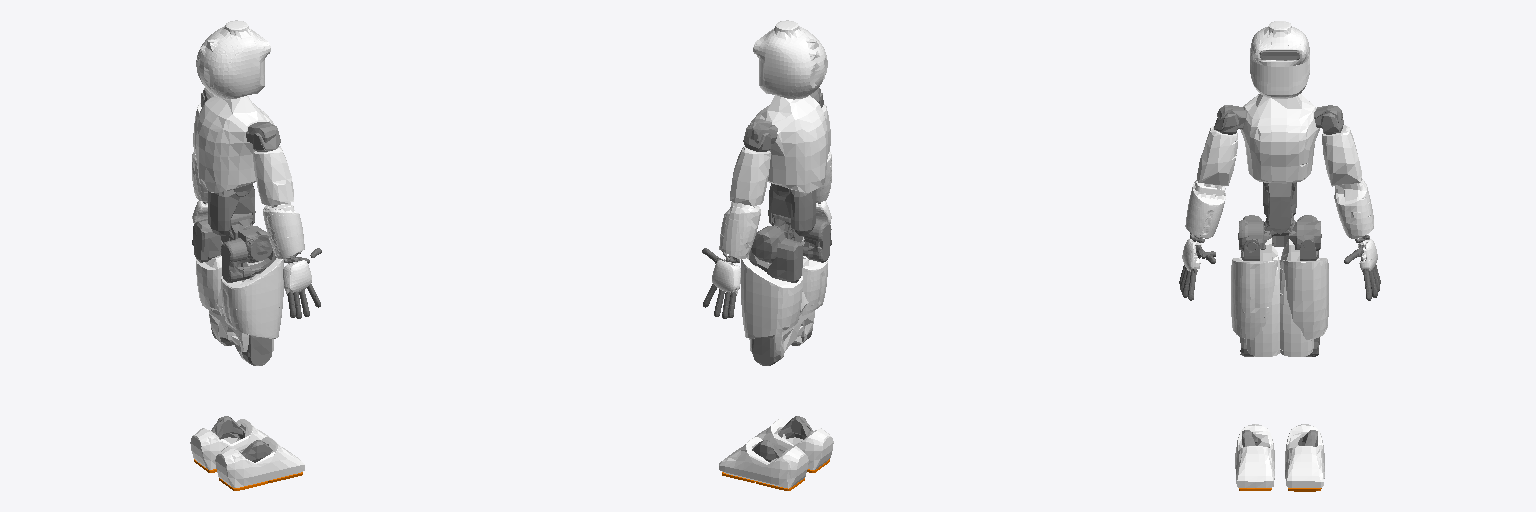
--- Facts derived from the render (not from the file) ---
3 views of the same robot in one strip: view 1: azimuth 30°, elevation 25°; view 2: azimuth 150°, elevation 25°; view 3: azimuth 270°, elevation 25° (orthographic).
Robot: ergoCub — 204 links, 203 joints (57 revolute, 146 fixed); root link root_link; default pose: every joint at zero.
Links seen in each view (by area): view 1: chest, head, r_hip_3, r_ankle_2, r_upper_arm, r_forearm, l_ankle_2, torso_1, r_hip_2, l_hip_3, l_hip_2, r_hip_1 (+3 smaller); view 2: chest, head, l_hip_3, l_ankle_2, l_upper_arm, l_forearm, r_ankle_2, torso_1, l_hip_2, r_hip_3, r_hip_2, l_hip_1 (+2 smaller); view 3: chest, head, r_hip_3, l_hip_3, l_ankle_2, r_ankle_2, r_upper_arm, l_upper_arm, l_forearm, r_forearm, l_lower_leg, r_lower_leg (+3 smaller).
Boxes of the visible links, <box> form: chest: <box>196,95,273,192</box>; head: <box>196,20,270,99</box>; r_hip_3: <box>221,256,283,338</box>; r_ankle_2: <box>215,437,304,487</box>; r_upper_arm: <box>253,146,293,205</box>; r_forearm: <box>263,203,304,258</box>; l_ankle_2: <box>190,419,268,469</box>; torso_1: <box>208,186,255,235</box>; r_hip_2: <box>221,238,274,282</box>; l_hip_3: <box>196,255,221,315</box>; l_hip_2: <box>193,219,221,262</box>; r_hip_1: <box>238,226,272,262</box>; chest: <box>750,95,827,192</box>; head: <box>753,20,827,99</box>; l_hip_3: <box>740,255,802,338</box>; l_ankle_2: <box>719,437,808,488</box>; l_upper_arm: <box>730,146,770,205</box>; l_forearm: <box>719,202,760,258</box>; r_ankle_2: <box>755,419,833,469</box>; torso_1: <box>768,186,815,235</box>; l_hip_2: <box>749,238,802,282</box>; r_hip_3: <box>802,256,827,315</box>; r_hip_2: <box>803,219,831,262</box>; l_hip_1: <box>751,226,786,262</box>; chest: <box>1240,94,1319,183</box>; head: <box>1250,21,1309,98</box>; r_hip_3: <box>1231,257,1277,339</box>; l_hip_3: <box>1282,258,1328,339</box>; l_ankle_2: <box>1285,424,1324,487</box>; r_ankle_2: <box>1235,424,1274,487</box>; r_upper_arm: <box>1197,125,1237,185</box>; l_upper_arm: <box>1322,125,1361,186</box>; l_forearm: <box>1334,179,1373,238</box>; r_forearm: <box>1185,180,1225,238</box>; l_lower_leg: <box>1280,239,1313,356</box>; r_lower_leg: <box>1246,238,1279,356</box>.
Bounding box of the posed robot: 0.2996 × 0.6038 × 1.47 m (x, y, z).
66 mesh visuals loaded from 66 distinct referenced files (66 binary STL).

URDF robot description (ergoCub):
<?xml version="1.0"?>
<robot name="ergoCub">
  <link name="root_link">
    <inertial>
      <mass value="2.823751482824641"/>
      <origin xyz="0.0024748962432214403 -1.050794470993344e-4 0.023450368787955644" rpy="0 -0 0"/>
      <inertia ixx="0.005630606285299466" ixy="1.4369039688385168e-6" ixz="2.329934099458601e-5" iyy="0.004380033669258687" iyz="1.4098441290533537e-5" izz="0.003616681010808376"/>
    </inertial>
    <visual>
      <origin xyz="0 0 0" rpy="0 -0 0"/>
      <geometry>
        <mesh filename="package://ergoCub/meshes/simmechanics/sim_ecub_1-1_root_link.stl" scale="0.001 0.001 0.001"/>
      </geometry>
      <material name="">
        <color rgba="0.6 0.6 0.6 1"/>
      </material>
    </visual>
    <collision>
      <origin xyz="0 0 0" rpy="0 -0 0"/>
      <geometry>
        <mesh filename="package://ergoCub/meshes/simmechanics/sim_ecub_1-1_root_link.stl" scale="0.001 0.001 0.001"/>
      </geometry>
      <material name="">
        <color rgba="0.6 0.6 0.6 1"/>
      </material>
    </collision>
  </link>
  <joint name="l_hip_pitch" type="revolute">
    <origin xyz="0.02109999999999964 0.050500000000000836 1.942890293094024e-16" rpy="3.958535957527503e-15 3.810968172190701e-15 1.167434911886406e-16"/>
    <axis xyz="-5.772831379991284e-17 -1 -1.3843833381666392e-17"/>
    <parent link="root_link"/>
    <child link="l_hip_1"/>
    <limit lower="-0.7504915783575618" upper="1.7976891295541595" effort="1e+9" velocity="1e+9"/>
    <dynamics damping="2" friction="0"/>
  </joint>
  <link name="l_hip_1">
    <inertial>
      <mass value="2.231768868859629"/>
      <origin xyz="-0.0040154224851623455 0.028247280560774652 -6.811143992383195e-4" rpy="0 -0 0"/>
      <inertia ixx="0.002210921814931002" ixy="5.971255499379551e-5" ixz="-1.5432160879022988e-5" iyy="0.002695326128467937" iyz="-5.838535051658118e-6" izz="0.0024610381641843883"/>
    </inertial>
    <visual>
      <origin xyz="0 0 0" rpy="0 -0 0"/>
      <geometry>
        <mesh filename="package://ergoCub/meshes/simmechanics/sim_ecub_1-1_l_hip_1.stl" scale="0.001 0.001 0.001"/>
      </geometry>
      <material name="">
        <color rgba="0.6 0.6 0.6 1"/>
      </material>
    </visual>
    <collision>
      <origin xyz="0 0 0" rpy="0 -0 0"/>
      <geometry>
        <mesh filename="package://ergoCub/meshes/simmechanics/sim_ecub_1-1_l_hip_1.stl" scale="0.001 0.001 0.001"/>
      </geometry>
      <material name="">
        <color rgba="0.6 0.6 0.6 1"/>
      </material>
    </collision>
  </link>
  <joint name="r_hip_pitch" type="revolute">
    <origin xyz="0.021099999999999643 -0.05049999999999917 -2.220446049250313e-16" rpy="3.986223624290839e-15 9.012328668422501e-14 4.978996250550603e-17"/>
    <axis xyz="-1.0880513989386065e-16 -1 1.384383338166008e-17"/>
    <parent link="root_link"/>
    <child link="r_hip_1"/>
    <limit lower="-0.7504915783575618" upper="1.7976891295541595" effort="1e+9" velocity="1e+9"/>
    <dynamics damping="2" friction="0"/>
  </joint>
  <link name="r_hip_1">
    <inertial>
      <mass value="2.2320852637398954"/>
      <origin xyz="-0.004032117730258793 -0.028249385885545365 -6.739019720393702e-4" rpy="0 -0 0"/>
      <inertia ixx="0.00221225947743564" ixy="-6.126720536020865e-5" ixz="-1.5035655169601288e-5" iyy="0.002695545891317729" iyz="6.443355522460266e-6" izz="0.0024608876750051726"/>
    </inertial>
    <visual>
      <origin xyz="0 0 0" rpy="0 -0 0"/>
      <geometry>
        <mesh filename="package://ergoCub/meshes/simmechanics/sim_ecub_1-1_r_hip_1.stl" scale="0.001 0.001 0.001"/>
      </geometry>
      <material name="">
        <color rgba="0.6 0.6 0.6 1"/>
      </material>
    </visual>
    <collision>
      <origin xyz="0 0 0" rpy="0 -0 0"/>
      <geometry>
        <mesh filename="package://ergoCub/meshes/simmechanics/sim_ecub_1-1_r_hip_1.stl" scale="0.001 0.001 0.001"/>
      </geometry>
      <material name="">
        <color rgba="0.6 0.6 0.6 1"/>
      </material>
    </collision>
  </link>
  <joint name="torso_roll" type="revolute">
    <origin xyz="-2.23890229767886e-18 -5.551115123142428e-20 0.060500000000000095" rpy="0 -2.2470258116354473e-44 5.656623812198896e-30"/>
    <axis xyz="-1 0 1.4239886692466155e-15"/>
    <parent link="root_link"/>
    <child link="torso_1"/>
    <limit lower="-0.4014257279586958" upper="0.4014257279586958" effort="1e+9" velocity="1e+9"/>
    <dynamics damping="2" friction="0"/>
  </joint>
  <link name="torso_1">
    <inertial>
      <mass value="2.0645667"/>
      <origin xyz="-0.00963997362197503 6.168494736287859e-4 0.08244231288506354" rpy="0 -0 0"/>
      <inertia ixx="0.007406085999999999" ixy="0" ixz="0" iyy="0.0059470732999999994" iyz="0" izz="0.0031780111"/>
    </inertial>
    <visual>
      <origin xyz="0 0 0" rpy="0 -0 0"/>
      <geometry>
        <mesh filename="package://ergoCub/meshes/simmechanics/sim_ecub_1-1_torso_1.stl" scale="0.001 0.001 0.001"/>
      </geometry>
      <material name="">
        <color rgba="0.6 0.6 0.6 1"/>
      </material>
    </visual>
    <collision>
      <origin xyz="0 0 0" rpy="0 -0 0"/>
      <geometry>
        <mesh filename="package://ergoCub/meshes/simmechanics/sim_ecub_1-1_torso_1.stl" scale="0.001 0.001 0.001"/>
      </geometry>
      <material name="">
        <color rgba="0.6 0.6 0.6 1"/>
      </material>
    </collision>
  </link>
  <joint name="torso_pitch" type="revolute">
    <origin xyz="-7.30886630439206e-17 -4.930380657631324e-32 0.11800000000000001" rpy="3.9719461100401744e-15 2.710505431213761e-20 1.0587911275090697e-22"/>
    <axis xyz="1.058791184074231e-22 1 4.336808689942018e-19"/>
    <parent link="torso_1"/>
    <child link="torso_2"/>
    <limit lower="-0.3141592653589793" upper="0.7853981633974483" effort="1e+9" velocity="1e+9"/>
    <dynamics damping="2" friction="0"/>
  </joint>
  <link name="torso_2">
    <inertial>
      <mass value="0.7051627057068411"/>
      <origin xyz="0.0015724674776760373 0.0036223466761378907 0.026019504666210766" rpy="0 -0 0"/>
      <inertia ixx="0.0012590296877101025" ixy="4.1986239270733835e-6" ixz="-5.398163583772818e-6" iyy="6.675525890436374e-4" iyz="7.014302140884287e-5" izz="0.001145822810927014"/>
    </inertial>
    <visual>
      <origin xyz="0 0 0" rpy="0 -0 0"/>
      <geometry>
        <mesh filename="package://ergoCub/meshes/simmechanics/sim_ecub_1-1_torso_2.stl" scale="0.001 0.001 0.001"/>
      </geometry>
      <material name="">
        <color rgba="0.6 0.6 0.6 1"/>
      </material>
    </visual>
    <collision>
      <origin xyz="0 0 0" rpy="0 -0 0"/>
      <geometry>
        <mesh filename="package://ergoCub/meshes/simmechanics/sim_ecub_1-1_torso_2.stl" scale="0.001 0.001 0.001"/>
      </geometry>
      <material name="">
        <color rgba="0.6 0.6 0.6 1"/>
      </material>
    </collision>
  </link>
  <joint name="torso_yaw" type="revolute">
    <origin xyz="7.32502235717738e-17 2.561326957877574e-16 0.0644699999999999" rpy="-3.971868545919581e-15 -4.385099568445115e-23 -3.1763738272196853e-22"/>
    <axis xyz="2.084864385226231e-15 -2.114127025714114e-15 -1"/>
    <parent link="torso_2"/>
    <child link="chest"/>
    <limit lower="-0.7504915783575618" upper="0.7504915783575618" effort="1e+9" velocity="1e+9"/>
    <dynamics damping="2" friction="0"/>
  </joint>
  <link name="chest">
    <inertial>
      <mass value="8.065471632648594"/>
      <origin xyz="-0.010721051678060345 -3.482064053382885e-4 0.07611063517438793" rpy="0 -0 0"/>
      <inertia ixx="0.048454754024617776" ixy="1.7611941682820642e-4" ixz="-3.124089280569708e-4" iyy="0.044938830524554475" iyz="-1.2962048932614557e-4" izz="0.030687687298016447"/>
    </inertial>
    <visual>
      <origin xyz="0 0 0" rpy="0 -0 0"/>
      <geometry>
        <mesh filename="package://ergoCub/meshes/simmechanics/sim_ecub_1-1_chest.stl" scale="0.001 0.001 0.001"/>
      </geometry>
      <material name="">
        <color rgba="1 1 1 1"/>
      </material>
    </visual>
    <collision>
      <origin xyz="0 0 0" rpy="0 -0 0"/>
      <geometry>
        <mesh filename="package://ergoCub/meshes/simmechanics/sim_ecub_1-1_chest.stl" scale="0.001 0.001 0.001"/>
      </geometry>
      <material name="">
        <color rgba="1 1 1 1"/>
      </material>
    </collision>
  </link>
  <joint name="l_shoulder_pitch" type="revolute">
    <origin xyz="-0.013518676842610159 0.06704761117227499 0.12351981080941767" rpy="0.2536123238732541 -0.05203160550449479 -0.27527873241387235"/>
    <axis xyz="-3.452099717193846e-16 1.0000000000000002 3.0531133177191805e-16"/>
    <parent link="chest"/>
    <child link="l_shoulder_1"/>
    <limit lower="-2.9670597283903604" upper="0.6108652381980153" effort="1e+9" velocity="1e+9"/>
    <dynamics damping="2" friction="0"/>
  </joint>
  <link name="l_shoulder_1">
    <inertial>
      <mass value="0.7913756606310043"/>
      <origin xyz="1.4824275422014796e-4 0.06782971819041986 5.036196460999898e-4" rpy="0 -0 0"/>
      <inertia ixx="0.0012090260632276477" ixy="3.837452877706498e-6" ixz="3.4979966648173376e-7" iyy="3.2970130687487713e-4" iyz="1.0257960656819495e-5" izz="0.0011953232413247816"/>
    </inertial>
    <visual>
      <origin xyz="0 0 0" rpy="0 -0 0"/>
      <geometry>
        <mesh filename="package://ergoCub/meshes/simmechanics/sim_ecub_1-1_l_shoulder_1.stl" scale="0.001 0.001 0.001"/>
      </geometry>
      <material name="">
        <color rgba="0.6 0.6 0.6 1"/>
      </material>
    </visual>
    <collision>
      <origin xyz="0 0 0" rpy="0 -0 0"/>
      <geometry>
        <mesh filename="package://ergoCub/meshes/simmechanics/sim_ecub_1-1_l_shoulder_1.stl" scale="0.001 0.001 0.001"/>
      </geometry>
      <material name="">
        <color rgba="0.6 0.6 0.6 1"/>
      </material>
    </collision>
  </link>
  <joint name="neck_pitch" type="revolute">
    <origin xyz="0.004861512347971912 4.1253975310307907e-16 0.22529999999999994" rpy="-1.541978321110266e-15 -2.0480667158215426e-15 -1.389802281096855e-15"/>
    <axis xyz="2.6472211157644926e-18 -1 -7.807858529815144e-16"/>
    <parent link="chest"/>
    <child link="neck_2"/>
    <limit lower="-0.5235987755982988" upper="0.3839724354387525" effort="1e+9" velocity="1e+9"/>
    <dynamics damping="2" friction="0"/>
  </joint>
  <link name="neck_2">
    <inertial>
      <mass value="0.12100314943032965"/>
      <origin xyz="-0.006305773955890982 3.0141314376407138e-5 0.006373188453183354" rpy="0 -0 0"/>
      <inertia ixx="4.5383766592166864e-5" ixy="-9.375752008423039e-8" ixz="8.622664755132213e-6" iyy="3.848306673536227e-5" iyz="4.870043501244136e-8" izz="3.7535538604448367e-5"/>
    </inertial>
    <visual>
      <origin xyz="0 0 0" rpy="0 -0 0"/>
      <geometry>
        <mesh filename="package://ergoCub/meshes/simmechanics/sim_ecub_1-1_head_neck_2.stl" scale="0.001 0.001 0.001"/>
      </geometry>
      <material name="">
        <color rgba="0.6 0.6 0.6 1"/>
      </material>
    </visual>
    <collision>
      <origin xyz="0 0 0" rpy="0 -0 0"/>
      <geometry>
        <mesh filename="package://ergoCub/meshes/simmechanics/sim_ecub_1-1_head_neck_2.stl" scale="0.001 0.001 0.001"/>
      </geometry>
      <material name="">
        <color rgba="0.6 0.6 0.6 1"/>
      </material>
    </collision>
  </link>
  <joint name="r_shoulder_pitch" type="revolute">
    <origin xyz="-0.013518676842610352 -0.06704761117227452 0.12351981080941783" rpy="-0.25361232387326116 -0.05203160550449495 0.2752787324138702"/>
    <axis xyz="-2.445960101127298e-16 1 3.552713678800501e-15"/>
    <parent link="chest"/>
    <child link="r_shoulder_1"/>
    <limit lower="-2.9670597283903604" upper="0.6108652381980153" effort="1e+9" velocity="1e+9"/>
    <dynamics damping="2" friction="0"/>
  </joint>
  <link name="r_shoulder_1">
    <inertial>
      <mass value="0.7922822880502421"/>
      <origin xyz="1.7243569867328445e-4 -0.06784040318161474 4.7600094527533443e-4" rpy="0 -0 0"/>
      <inertia ixx="0.0012096539626434014" ixy="-3.680808987116546e-6" ixz="8.229428308001538e-7" iyy="3.3067105254799123e-4" iyz="-1.0172274013350282e-5" izz="0.0011958286331174221"/>
    </inertial>
    <visual>
      <origin xyz="0 0 0" rpy="0 -0 0"/>
      <geometry>
        <mesh filename="package://ergoCub/meshes/simmechanics/sim_ecub_1-1_r_shoulder_1.stl" scale="0.001 0.001 0.001"/>
      </geometry>
      <material name="">
        <color rgba="0.6 0.6 0.6 1"/>
      </material>
    </visual>
    <collision>
      <origin xyz="0 0 0" rpy="0 -0 0"/>
      <geometry>
        <mesh filename="package://ergoCub/meshes/simmechanics/sim_ecub_1-1_r_shoulder_1.stl" scale="0.001 0.001 0.001"/>
      </geometry>
      <material name="">
        <color rgba="0.6 0.6 0.6 1"/>
      </material>
    </collision>
  </link>
  <joint name="r_shoulder_roll" type="revolute">
    <origin xyz="0.007499999999999977 -0.09330000000000004 -3.885780586188048e-16" rpy="-9.325873406851307e-15 9.520162436160717e-15 -4.718447854656912e-15"/>
    <axis xyz="-1.0000000000000007 8.760353553682006e-16 -4.510281037539194e-16"/>
    <parent link="r_shoulder_1"/>
    <child link="r_shoulder_2"/>
    <limit lower="-0.2617993877991494" upper="2.6179938779914944" effort="1e+9" velocity="1e+9"/>
    <dynamics damping="2" friction="0"/>
  </joint>
  <link name="r_shoulder_2">
    <inertial>
      <mass value="0.4392272062642899"/>
      <origin xyz="0.005113618901434032 -2.13348557806331e-4 -0.020425805469504787" rpy="0 -0 0"/>
      <inertia ixx="2.9042245268154257e-4" ixy="-9.557527654531481e-7" ixz="-9.749291990105912e-5" iyy="4.271705089556584e-4" iyz="-1.2227717602335833e-6" izz="2.6647274612786855e-4"/>
    </inertial>
    <visual>
      <origin xyz="0 0 0" rpy="0 -0 0"/>
      <geometry>
        <mesh filename="package://ergoCub/meshes/simmechanics/sim_ecub_1-1_r_shoulder_2.stl" scale="0.001 0.001 0.001"/>
      </geometry>
      <material name="">
        <color rgba="0.6 0.6 0.6 1"/>
      </material>
    </visual>
    <collision>
      <origin xyz="0 0 0" rpy="0 -0 0"/>
      <geometry>
        <mesh filename="package://ergoCub/meshes/simmechanics/sim_ecub_1-1_r_shoulder_2.stl" scale="0.001 0.001 0.001"/>
      </geometry>
      <material name="">
        <color rgba="0.6 0.6 0.6 1"/>
      </material>
    </collision>
  </link>
  <joint name="r_arm_ft_sensor" type="fixed">
    <origin xyz="-0.006850000000000004 -5.551115123125783e-17 -0.054300000000000015" rpy="-2.220446049250312e-16 -2.3592239273284576e-16 1.6098233857064762e-15"/>
    <parent link="r_shoulder_2"/>
    <child link="r_shoulder_3"/>
  </joint>
  <link name="r_shoulder_3">
    <inertial>
      <mass value="0.271466272759966"/>
      <origin xyz="-8.31167799586717e-5 -3.0654831449927755e-5 -0.007966545320293866" rpy="0 -0 0"/>
      <inertia ixx="7.620284216410257e-5" ixy="-3.654997747197785e-7" ixz="-3.6240077897294374e-8" iyy="7.648716704064904e-5" iyz="-6.051355657868799e-8" izz="1.2740184766279634e-4"/>
    </inertial>
    <visual>
      <origin xyz="0 0 0" rpy="0 -0 0"/>
      <geometry>
        <mesh filename="package://ergoCub/meshes/simmechanics/sim_ecub_1-1_r_shoulder_3.stl" scale="0.001 0.001 0.001"/>
      </geometry>
      <material name="">
        <color rgba="0.6 0.6 0.6 1"/>
      </material>
    </visual>
    <collision>
      <origin xyz="0 0 0" rpy="0 -0 0"/>
      <geometry>
        <mesh filename="package://ergoCub/meshes/simmechanics/sim_ecub_1-1_r_shoulder_3.stl" scale="0.001 0.001 0.001"/>
      </geometry>
      <material name="">
        <color rgba="0.6 0.6 0.6 1"/>
      </material>
    </collision>
  </link>
  <joint name="r_shoulder_yaw" type="revolute">
    <origin xyz="-7.979727989493313e-17 5.551115123125783e-17 -0.02249999999999998" rpy="-5.55111512312578e-17 -3.0531133177191805e-16 7.660538869913577e-15"/>
    <axis xyz="2.567390744445681e-16 2.775557561562927e-17 1.0000000000000004"/>
    <parent link="r_shoulder_3"/>
    <child link="r_upper_arm"/>
    <limit lower="-0.8726646259971648" upper="1.3962634015954636" effort="1e+9" velocity="1e+9"/>
    <dynamics damping="2" friction="0"/>
  </joint>
  <link name="r_upper_arm">
    <inertial>
      <mass value="1.7722348545631907"/>
      <origin xyz="1.4699786491786937e-4 -0.0023354938418406186 -0.05011711267210951" rpy="0 -0 0"/>
      <inertia ixx="0.0034219198528275844" ixy="3.081029189714289e-5" ixz="2.5743017599563002e-5" iyy="0.003510878854314856" iyz="-1.0938393403810045e-4" izz="0.0015765483711818404"/>
    </inertial>
    <visual>
      <origin xyz="0 0 0" rpy="0 -0 0"/>
      <geometry>
        <mesh filename="package://ergoCub/meshes/simmechanics/sim_ecub_1-1_r_upperarm.stl" scale="0.001 0.001 0.001"/>
      </geometry>
      <material name="">
        <color rgba="1 1 1 1"/>
      </material>
    </visual>
    <collision>
      <origin xyz="0 0 0" rpy="0 -0 0"/>
      <geometry>
        <mesh filename="package://ergoCub/meshes/simmechanics/sim_ecub_1-1_r_upperarm.stl" scale="0.001 0.001 0.001"/>
      </geometry>
      <material name="">
        <color rgba="1 1 1 1"/>
      </material>
    </collision>
  </link>
  <joint name="r_elbow" type="revolute">
    <origin xyz="0.01000000000000002 0.0015000000000005287 -0.12369999999999992" rpy="-4.1633363423443286e-16 -5.842548667089886e-15 -8.326672684688652e-15"/>
    <axis xyz="3.001071613439684e-16 -1.0000000000000027 1.2712053631958044e-14"/>
    <parent link="r_upper_arm"/>
    <child link="r_forearm"/>
    <limit lower="-0.05235987755982989" upper="1.3089969389957472" effort="1e+9" velocity="1e+9"/>
    <dynamics damping="2" friction="0"/>
  </joint>
  <link name="r_forearm">
    <inertial>
      <mass value="1.4760712424977045"/>
      <origin xyz="-0.01830687629472739 -0.002214887320910963 -0.08814943647449926" rpy="0 -0 0"/>
      <inertia ixx="0.004018141035792247" ixy="-1.0169837170335636e-6" ixz="-6.092751707960711e-5" iyy="0.004094401103638503" iyz="2.3622606931134418e-5" izz="0.00151761593950533"/>
    </inertial>
    <visual>
      <origin xyz="0 0 0" rpy="0 -0 0"/>
      <geometry>
        <mesh filename="package://ergoCub/meshes/simmechanics/sim_ecub_1-1_r_forearm.stl" scale="0.001 0.001 0.001"/>
      </geometry>
      <material name="">
        <color rgba="1 1 1 1"/>
      </material>
    </visual>
    <collision>
      <origin xyz="0 0 0" rpy="0 -0 0"/>
      <geometry>
        <mesh filename="package://ergoCub/meshes/simmechanics/sim_ecub_1-1_r_forearm.stl" scale="0.001 0.001 0.001"/>
      </geometry>
      <material name="">
        <color rgba="1 1 1 1"/>
      </material>
    </collision>
  </link>
  <joint name="r_wrist_yaw" type="revolute">
    <origin xyz="-0.014999999999999767 -0.0019999999999965323 -0.1943500000000011" rpy="-2.081668171172164e-15 -1.1587952819525071e-14 -2.997602166487915e-15"/>
    <axis xyz="5.5788706987414416e-15 -1.2628786905111175e-14 1.000000000000002"/>
    <parent link="r_forearm"/>
    <child link="r_wrist_1"/>
    <limit lower="-1.6057029118347832" upper="1.6057029118347832" effort="1e+9" velocity="1e+9"/>
    <dynamics damping="2" friction="0"/>
  </joint>
  <link name="r_wrist_1">
    <inertial>
      <mass value="0.12269276206782376"/>
      <origin xyz="-1.4544607175177166e-4 1.559247070407055e-4 0.022377800821402394" rpy="0 -0 0"/>
      <inertia ixx="4.9948289621641885e-5" ixy="-2.784766720355678e-7" ixz="6.019515820494411e-7" iyy="4.9363344899850536e-5" iyz="-7.101822163237812e-7" izz="5.04085543186966e-5"/>
    </inertial>
    <visual>
      <origin xyz="0 0 0" rpy="0 -0 0"/>
      <geometry>
        <mesh filename="package://ergoCub/meshes/simmechanics/sim_ecub_1-1_r_wrist_1.stl" scale="0.001 0.001 0.001"/>
      </geometry>
      <material name="">
        <color rgba="0.6 0.6 0.6 1"/>
      </material>
    </visual>
    <collision>
      <origin xyz="0 0 0" rpy="0 -0 0"/>
      <geometry>
        <mesh filename="package://ergoCub/meshes/simmechanics/sim_ecub_1-1_r_wrist_1.stl" scale="0.001 0.001 0.001"/>
      </geometry>
      <material name="">
        <color rgba="0.6 0.6 0.6 1"/>
      </material>
    </collision>
  </link>
  <joint name="r_wrist_roll" type="revolute">
    <origin xyz="1.4224732503009818e-16 2.498001805406602e-16 1.3877787807814457e-16" rpy="3.8857805861880484e-16 5.551115123125783e-17 -1.6653345369377353e-16"/>
    <axis xyz="0.9999999999999997 -2.480654570646835e-16 -1.873501354054953e-16"/>
    <parent link="r_wrist_1"/>
    <child link="r_wrist_2"/>
    <limit lower="-1.0821041362364843" upper="0.9075712110370514" effort="1e+9" velocity="1e+9"/>
    <dynamics damping="2" friction="0"/>
  </joint>
  <link name="r_wrist_2">
    <inertial>
      <mass value="0.021188357245777188"/>
      <origin xyz="5.05499045400093e-11 7.897372606293362e-4 -0.004696960055006527" rpy="0 -0 0"/>
      <inertia ixx="1.5886797233767314e-6" ixy="3.7411538116720276e-13" ixz="-1.6476959268145782e-14" iyy="1.6075566141746972e-6" iyz="7.534291394795915e-8" izz="2.5064167139343093e-6"/>
    </inertial>
    <visual>
      <origin xyz="0 0 0" rpy="0 -0 0"/>
      <geometry>
        <mesh filename="package://ergoCub/meshes/simmechanics/sim_ecub_1-1_r_wrist_2.stl" scale="0.001 0.001 0.001"/>
      </geometry>
      <material name="">
        <color rgba="0.5 0.5 0.5 1"/>
      </material>
    </visual>
    <collision>
      <origin xyz="0 0 0" rpy="0 -0 0"/>
      <geometry>
        <mesh filename="package://ergoCub/meshes/simmechanics/sim_ecub_1-1_r_wrist_2.stl" scale="0.001 0.001 0.001"/>
      </geometry>
      <material name="">
        <color rgba="0.5 0.5 0.5 1"/>
      </material>
    </collision>
  </link>
  <joint name="r_wrist_pitch" type="revolute">
    <origin xyz="-4.85722573273506e-17 0 2.7755575615628914e-17" rpy="2.2204460492503136e-16 -5.551115123125783e-17 -3.88578058618805e-16"/>
    <axis xyz="4.128641872824801e-16 -0.9999999999999998 -8.049116928532385e-16"/>
    <parent link="r_wrist_2"/>
    <child link="r_hand_palm"/>
    <limit lower="-0.5585053606381855" upper="0.5585053606381855" effort="1e+9" velocity="1e+9"/>
    <dynamics damping="2" friction="0"/>
  </joint>
  <link name="r_hand_palm">
    <inertial>
      <mass value="0.2020068404688116"/>
      <origin xyz="-0.003982157972782507 -0.0021135289059891482 -0.05842371394186491" rpy="0 -0 0"/>
      <inertia ixx="1.4279727238409082e-4" ixy="4.3471459905317745e-6" ixz="-1.2099467097336674e-5" iyy="2.1040345151106222e-4" iyz="4.7767131643957866e-6" izz="1.0688011837800253e-4"/>
    </inertial>
    <visual>
      <origin xyz="0 0 0" rpy="0 -0 0"/>
      <geometry>
        <mesh filename="package://ergoCub/meshes/simmechanics/sim_ecub_1-1_r_hand_palm.stl" scale="0.001 0.001 0.001"/>
      </geometry>
      <material name="">
        <color rgba="1 1 1 1"/>
      </material>
    </visual>
    <collision>
      <origin xyz="0 0 0" rpy="0 -0 0"/>
      <geometry>
        <mesh filename="package://ergoCub/meshes/simmechanics/sim_ecub_1-1_r_hand_palm.stl" scale="0.001 0.001 0.001"/>
      </geometry>
      <material name="">
        <color rgba="1 1 1 1"/>
      </material>
    </collision>
  </link>
  <joint name="r_index_add" type="revolute">
    <origin xyz="0.022499999999999992 0.0015000000000002234 -0.06859999999999983" rpy="-1.6833790438334957e-15 0.29670597283904 3.141592653589792"/>
    <axis xyz="-5.389323627044831e-16 -0.9999999999999999 1.6046911875538946e-15"/>
    <parent link="r_hand_palm"/>
    <child link="r_hand_index_1"/>
    <limit lower="0" upper="0.2617993877991494" effort="1e+9" velocity="1e+9"/>
    <dynamics damping="2" friction="0"/>
  </joint>
  <link name="r_hand_index_1">
    <inertial>
      <mass value="0.019232477290189804"/>
      <origin xyz="-0.008420124408709713 0.003850331678233287 -0.01714942611279774" rpy="0 -0 0"/>
      <inertia ixx="2.6266478205033898e-6" ixy="1.0045828131985182e-7" ixz="-4.4428748588513116e-7" iyy="2.811973348231671e-6" iyz="-3.9646985411500977e-8" izz="1.21028376665746e-6"/>
    </inertial>
    <visual>
      <origin xyz="0 0 0" rpy="0 -0 0"/>
      <geometry>
        <mesh filename="package://ergoCub/meshes/simmechanics/sim_ecub_1-1_r_hand_index_1.stl" scale="0.001 0.001 0.001"/>
      </geometry>
      <material name="">
        <color rgba="0.5 0.5 0.5 1"/>
      </material>
    </visual>
    <collision>
      <origin xyz="0 0 0" rpy="0 -0 0"/>
      <geometry>
        <mesh filename="package://ergoCub/meshes/simmechanics/sim_ecub_1-1_r_hand_index_1.stl" scale="0.001 0.001 0.001"/>
      </geometry>
      <material name="">
        <color rgba="0.5 0.5 0.5 1"/>
      </material>
    </collision>
  </link>
  <joint name="r_middle_prox" type="revolute">
    <origin xyz="0.009599999988882939 0.00150000000000039 -0.1030000000010361" rpy="-1.8596235662471376e-15 -1.0793124727292991e-10 3.1415926535897927"/>
    <axis xyz="-0.9999999999999996 -4.562322741819007e-15 1.079337105802658e-10"/>
    <parent link="r_hand_palm"/>
    <child link="r_hand_middle_1"/>
    <limit lower="0" upper="1.5707963267948966" effort="1e+9" velocity="1e+9"/>
    <dynamics damping="2" friction="0"/>
  </joint>
  <link name="r_hand_middle_1">
    <inertial>
      <mass value="0.007486365997467528"/>
      <origin xyz="5.610258533731913e-5 0.0011131046827904112 -0.01742880983276912" rpy="0 -0 0"/>
      <inertia ixx="1.5923690026243956e-6" ixy="-7.6859949856616e-10" ixz="-9.576514629966624e-9" iyy="1.5225016121802755e-6" iyz="1.1152097367596593e-7" izz="3.177134212214704e-7"/>
    </inertial>
    <visual>
      <origin xyz="0 0 0" rpy="0 -0 0"/>
      <geometry>
        <mesh filename="package://ergoCub/meshes/simmechanics/sim_ecub_1-1_r_hand_middle_1.stl" scale="0.001 0.001 0.001"/>
      </geometry>
      <material name="">
        <color rgba="0.5 0.5 0.5 1"/>
      </material>
    </visual>
    <collision>
      <origin xyz="0 0 0" rpy="0 -0 0"/>
      <geometry>
        <mesh filename="package://ergoCub/meshes/simmechanics/sim_ecub_1-1_r_hand_middle_1.stl" scale="0.001 0.001 0.001"/>
      </geometry>
      <material name="">
        <color rgba="0.5 0.5 0.5 1"/>
      </material>
    </collision>
  </link>
  <joint name="r_pinkie_prox" type="revolute">
    <origin xyz="-0.035982680943166166 0.002377759579109573 -0.09206828131946371" rpy="4.1095343980510334e-4 -0.08726646259972864 3.1154127148098776"/>
    <axis xyz="-0.9999999999999998 4.364801434782878e-15 0"/>
    <parent link="r_hand_palm"/>
    <child link="r_hand_pinkie_1"/>
    <limit lower="0" upper="1.5707963267948966" effort="1e+9" velocity="1e+9"/>
    <dynamics damping="2" friction="0"/>
  </joint>
  <link name="r_hand_pinkie_1">
    <inertial>
      <mass value="0.006357585733638135"/>
      <origin xyz="3.616260147435227e-5 0.0012147050941129778 -0.015053109692718447" rpy="0 -0 0"/>
      <inertia ixx="1.1594224636752146e-6" ixy="1.9700677724003336e-10" ixz="-5.145341462812334e-9" iyy="1.1056270005627898e-6" iyz="9.04498861481507e-8" izz="2.7294425194037764e-7"/>
    </inertial>
    <visual>
      <origin xyz="0 0 0" rpy="0 -0 0"/>
      <geometry>
        <mesh filename="package://ergoCub/meshes/simmechanics/sim_ecub_1-1_r_hand_pinkie_1.stl" scale="0.001 0.001 0.001"/>
      </geometry>
      <material name="">
        <color rgba="0.5 0.5 0.5 1"/>
      </material>
    </visual>
    <collision>
      <origin xyz="0 0 0" rpy="0 -0 0"/>
      <geometry>
        <mesh filename="package://ergoCub/meshes/simmechanics/sim_ecub_1-1_r_hand_pinkie_1.stl" scale="0.001 0.001 0.001"/>
      </geometry>
      <material name="">
        <color rgba="0.5 0.5 0.5 1"/>
      </material>
    </collision>
  </link>
  <joint name="r_ring_prox" type="revolute">
    <origin xyz="-0.015417755568684424 0.001849813728471178 -0.09788067183717986" rpy="2.019965811910767e-14 -0.08726646270762471 3.11541271480963"/>
    <axis xyz="-0.9999999999999997 -2.498435601042699e-13 1.0789123761067998e-10"/>
    <parent link="r_hand_palm"/>
    <child link="r_hand_ring_1"/>
    <limit lower="0" upper="1.5707963267948966" effort="1e+9" velocity="1e+9"/>
    <dynamics damping="2" friction="0"/>
  </joint>
  <link name="r_hand_ring_1">
    <inertial>
      <mass value="0.007486365997467528"/>
      <origin xyz="5.6102585337293107e-5 0.0011131045999587252 -0.017428809839565573" rpy="0 -0 0"/>
      <inertia ixx="1.5923690066834338e-6" ixy="-7.685995334343241e-10" ixz="-9.576514632814455e-9" iyy="1.5225016134675864e-6" iyz="1.115209689762951e-7" izz="3.177134239925537e-7"/>
    </inertial>
    <visual>
      <origin xyz="0 0 0" rpy="0 -0 0"/>
      <geometry>
        <mesh filename="package://ergoCub/meshes/simmechanics/sim_ecub_1-1_r_hand_ring_1.stl" scale="0.001 0.001 0.001"/>
      </geometry>
      <material name="">
        <color rgba="0.5 0.5 0.5 1"/>
      </material>
    </visual>
    <collision>
      <origin xyz="0 0 0" rpy="0 -0 0"/>
      <geometry>
        <mesh filename="package://ergoCub/meshes/simmechanics/sim_ecub_1-1_r_hand_ring_1.stl" scale="0.001 0.001 0.001"/>
      </geometry>
      <material name="">
        <color rgba="0.5 0.5 0.5 1"/>
      </material>
    </collision>
  </link>
  <joint name="r_thumb_add" type="revolute">
    <origin xyz="0.023374863252664337 0.003000000000000058 -0.03452383847607743" rpy="1.566711369727914e-15 -0.226892802651332 -5.127419028200447e-16"/>
    <axis xyz="-1.0793213545134961e-10 2.4089270891491094e-15 0.9999999999999998"/>
    <parent link="r_hand_palm"/>
    <child link="r_hand_thumb_1"/>
    <limit lower="0" upper="1.7453292519943295" effort="1e+9" velocity="1e+9"/>
    <dynamics damping="2" friction="0"/>
  </joint>
  <link name="r_hand_thumb_1">
    <inertial>
      <mass value="0.02894174189037044"/>
      <origin xyz="0.0183756324403817 -4.55521018183358e-5 0.002126473485347669" rpy="0 -0 0"/>
      <inertia ixx="2.6227221096875315e-6" ixy="-2.6657118889494294e-7" ixz="3.408188388661989e-7" iyy="7.222316801810369e-6" iyz="1.3067300647554165e-7" izz="5.813428900568859e-6"/>
    </inertial>
    <visual>
      <origin xyz="0 0 0" rpy="0 -0 0"/>
      <geometry>
        <mesh filename="package://ergoCub/meshes/simmechanics/sim_ecub_1-1_r_hand_thumb_1.stl" scale="0.001 0.001 0.001"/>
      </geometry>
      <material name="">
        <color rgba="0.5 0.5 0.5 1"/>
      </material>
    </visual>
    <collision>
      <origin xyz="0 0 0" rpy="0 -0 0"/>
      <geometry>
        <mesh filename="package://ergoCub/meshes/simmechanics/sim_ecub_1-1_r_hand_thumb_1.stl" scale="0.001 0.001 0.001"/>
      </geometry>
      <material name="">
        <color rgba="0.5 0.5 0.5 1"/>
      </material>
    </collision>
  </link>
  <joint name="r_thumb_prox" type="revolute">
    <origin xyz="0.0380746544995605 0.003469109580325286 -0.0036017448035497446" rpy="-1.7697290685198344 -0.13749152761469902 -2.965379613992927"/>
    <axis xyz="9.992007221626409e-16 -1.1102230246251565e-15 -0.9999999999999997"/>
    <parent link="r_hand_thumb_1"/>
    <child link="r_hand_thumb_2"/>
    <limit lower="0" upper="1.5707963267948966" effort="1e+9" velocity="1e+9"/>
    <dynamics damping="2" friction="0"/>
  </joint>
  <link name="r_hand_thumb_2">
    <inertial>
      <mass value="0.00669603218404702"/>
      <origin xyz="-0.014887264468035837 -0.0011329726380328586 6.26600593671145e-5" rpy="0 -0 0"/>
      <inertia ixx="2.822738702941517e-7" ixy="-9.431423655785553e-8" ixz="-7.94903600654804e-9" iyy="1.1148767778556382e-6" iyz="7.629054803653638e-10" izz="1.1785117216493283e-6"/>
    </inertial>
    <visual>
      <origin xyz="0 0 0" rpy="0 -0 0"/>
      <geometry>
        <mesh filename="package://ergoCub/meshes/simmechanics/sim_ecub_1-1_r_hand_thumb_2.stl" scale="0.001 0.001 0.001"/>
      </geometry>
      <material name="">
        <color rgba="0.5 0.5 0.5 1"/>
      </material>
    </visual>
    <collision>
      <origin xyz="0 0 0" rpy="0 -0 0"/>
      <geometry>
        <mesh filename="package://ergoCub/meshes/simmechanics/sim_ecub_1-1_r_hand_thumb_2.stl" scale="0.001 0.001 0.001"/>
      </geometry>
      <material name="">
        <color rgba="0.5 0.5 0.5 1"/>
      </material>
    </collision>
  </link>
  <joint name="r_thumb_dist" type="revolute">
    <origin xyz="-0.035000000003687984 0.0014999999936707586 -1.0737244426906045e-12" rpy="-1.87424381570267e-11 1.845751329554446e-11 3.1415926535883125"/>
    <axis xyz="1.8458673825549887e-11 1.8743298579870785e-11 -0.9999999999999999"/>
    <parent link="r_hand_thumb_2"/>
    <child link="r_hand_thumb_3"/>
    <limit lower="0" upper="1.7697638615222502" effort="1e+9" velocity="1e+9"/>
    <dynamics damping="2" friction="0"/>
  </joint>
  <link name="r_hand_thumb_3">
    <inertial>
      <mass value="0.00683159462238797"/>
      <origin xyz="0.016086236544425966 0.0026526877650291103 4.703179416121195e-5" rpy="0 -0 0"/>
      <inertia ixx="2.881152136289015e-7" ixy="5.927787437409324e-8" ixz="7.046450596142318e-9" iyy="1.4727314074745805e-6" iyz="-1.1370823402676918e-10" izz="1.4681073090610674e-6"/>
    </inertial>
    <visual>
      <origin xyz="0 0 0" rpy="0 -0 0"/>
      <geometry>
        <mesh filename="package://ergoCub/meshes/simmechanics/sim_ecub_1-1_r_hand_thumb_3.stl" scale="0.001 0.001 0.001"/>
      </geometry>
      <material name="">
        <color rgba="0.5 0.5 0.5 1"/>
      </material>
    </visual>
    <collision>
      <origin xyz="0 0 0" rpy="0 -0 0"/>
      <geometry>
        <mesh filename="package://ergoCub/meshes/simmechanics/sim_ecub_1-1_r_hand_thumb_3.stl" scale="0.001 0.001 0.001"/>
      </geometry>
      <material name="">
        <color rgba="0.5 0.5 0.5 1"/>
      </material>
    </collision>
  </link>
  <joint name="r_ring_dist" type="revolute">
    <origin xyz="-1.498102770308707e-11 -0.0015000000002765024 -0.040000000000737446" rpy="-5.828670879282074e-16 1.0789557441936992e-10 2.461919557106285e-13"/>
    <axis xyz="-0.9999999999999999 2.4672971998818127e-13 -1.0789569585001324e-10"/>
    <parent link="r_hand_ring_1"/>
    <child link="r_hand_ring_2"/>
    <limit lower="0" upper="1.7994344588061537" effort="1e+9" velocity="1e+9"/>
    <dynamics damping="2" friction="0"/>
  </joint>
  <link name="r_hand_ring_2">
    <inertial>
      <mass value="0.007251413355667432"/>
      <origin xyz="4.43251343077225e-5 0.00275470906266162 -0.018890876418029168" rpy="0 -0 0"/>
      <inertia ixx="1.9331833105730582e-6" ixy="-7.989212176587309e-11" ixz="-7.904608363472145e-9" iyy="1.9365695874997407e-6" iyz="-7.314014027601115e-8" izz="3.168091312615482e-7"/>
    </inertial>
    <visual>
      <origin xyz="0 0 0" rpy="0 -0 0"/>
      <geometry>
        <mesh filename="package://ergoCub/meshes/simmechanics/sim_ecub_1-1_r_hand_ring_2.stl" scale="0.001 0.001 0.001"/>
      </geometry>
      <material name="">
        <color rgba="0.5 0.5 0.5 1"/>
      </material>
    </visual>
    <collision>
      <origin xyz="0 0 0" rpy="0 -0 0"/>
      <geometry>
        <mesh filename="package://ergoCub/meshes/simmechanics/sim_ecub_1-1_r_hand_ring_2.stl" scale="0.001 0.001 0.001"/>
      </geometry>
      <material name="">
        <color rgba="0.5 0.5 0.5 1"/>
      </material>
    </collision>
  </link>
  <joint name="r_pinkie_dist" type="revolute">
    <origin xyz="4.5102810375396984e-17 -0.001514193309379297 -0.03499938883211873" rpy="-0.0012956915198213642 -1.8735013540549517e-16 -2.775557561562892e-16"/>
    <axis xyz="-0.9999999999999999 9.036247971209683e-16 -2.4586692098222613e-15"/>
    <parent link="r_hand_pinkie_1"/>
    <child link="r_hand_pinkie_2"/>
    <limit lower="0" upper="1.7226399717184033" effort="1e+9" velocity="1e+9"/>
    <dynamics damping="2" friction="0"/>
  </joint>
  <link name="r_hand_pinkie_2">
    <inertial>
      <mass value="0.007240237490764073"/>
      <origin xyz="2.1391072559044655e-5 0.0027712863562942003 -0.018930305880602127" rpy="0 -0 0"/>
      <inertia ixx="1.925475606102824e-6" ixy="-4.3197295418411515e-10" ixz="-3.753180689187112e-9" iyy="1.929147380651044e-6" iyz="-7.607784499660943e-8" izz="3.1621036318191297e-7"/>
    </inertial>
    <visual>
      <origin xyz="0 0 0" rpy="0 -0 0"/>
      <geometry>
        <mesh filename="package://ergoCub/meshes/simmechanics/sim_ecub_1-1_r_hand_pinkie_2.stl" scale="0.001 0.001 0.001"/>
      </geometry>
      <material name="">
        <color rgba="0.5 0.5 0.5 1"/>
      </material>
    </visual>
    <collision>
      <origin xyz="0 0 0" rpy="0 -0 0"/>
      <geometry>
        <mesh filename="package://ergoCub/meshes/simmechanics/sim_ecub_1-1_r_hand_pinkie_2.stl" scale="0.001 0.001 0.001"/>
      </geometry>
      <material name="">
        <color rgba="0.5 0.5 0.5 1"/>
      </material>
    </collision>
  </link>
  <joint name="r_middle_dist" type="revolute">
    <origin xyz="-1.5434174771566944e-11 -0.0014999999999999736 -0.0399999999989637" rpy="-7.535550930470877e-8 1.0793281546295219e-10 0"/>
    <axis xyz="-0.9999999999999998 -2.0695253452753748e-15 -1.0792969296086812e-10"/>
    <parent link="r_hand_middle_1"/>
    <child link="r_hand_middle_2"/>
    <limit lower="0" upper="1.7994344588061537" effort="1e+9" velocity="1e+9"/>
    <dynamics damping="2" friction="0"/>
  </joint>
  <link name="r_hand_middle_2">
    <inertial>
      <mass value="0.007251413355667432"/>
      <origin xyz="4.432513430769475e-5 0.0027547091926723166 -0.018890876399070666" rpy="0 -0 0"/>
      <inertia ixx="1.933183310574237e-6" ixy="-7.989206743982703e-11" ixz="-7.904608363479557e-9" iyy="1.9365732602456635e-6" iyz="-7.313677768867388e-8" izz="3.168054585139121e-7"/>
    </inertial>
    <visual>
      <origin xyz="0 0 0" rpy="0 -0 0"/>
      <geometry>
        <mesh filename="package://ergoCub/meshes/simmechanics/sim_ecub_1-1_r_hand_middle_2.stl" scale="0.001 0.001 0.001"/>
      </geometry>
      <material name="">
        <color rgba="0.5 0.5 0.5 1"/>
      </material>
    </visual>
    <collision>
      <origin xyz="0 0 0" rpy="0 -0 0"/>
      <geometry>
        <mesh filename="package://ergoCub/meshes/simmechanics/sim_ecub_1-1_r_hand_middle_2.stl" scale="0.001 0.001 0.001"/>
      </geometry>
      <material name="">
        <color rgba="0.5 0.5 0.5 1"/>
      </material>
    </collision>
  </link>
  <joint name="r_index_prox" type="revolute">
    <origin xyz="-0.009192533317427393 5.551115123125783e-17 -0.030713451316238316" rpy="-3.0531133177191805e-16 -2.0816681711721685e-17 0"/>
    <axis xyz="-0.9999999999999993 3.434752482434078e-15 -1.672273430841644e-15"/>
    <parent link="r_hand_index_1"/>
    <child link="r_hand_index_2"/>
    <limit lower="0" upper="1.5707963267948966" effort="1e+9" velocity="1e+9"/>
    <dynamics damping="2" friction="0"/>
  </joint>
  <link name="r_hand_index_2">
    <inertial>
      <mass value="0.007486365997467528"/>
      <origin xyz="5.610258533736423e-5 0.0011131050125119946 -0.01742880980571504" rpy="0 -0 0"/>
      <inertia ixx="1.5923689864672536e-6" ixy="-7.685993601390065e-10" ixz="-9.576514618642257e-9" iyy="1.5225016070540494e-6" iyz="1.1152099238402203e-7" izz="3.1771341019039245e-7"/>
    </inertial>
    <visual>
      <origin xyz="0 0 0" rpy="0 -0 0"/>
      <geometry>
        <mesh filename="package://ergoCub/meshes/simmechanics/sim_ecub_1-1_r_hand_index_2.stl" scale="0.001 0.001 0.001"/>
      </geometry>
      <material name="">
        <color rgba="0.5 0.5 0.5 1"/>
      </material>
    </visual>
    <collision>
      <origin xyz="0 0 0" rpy="0 -0 0"/>
      <geometry>
        <mesh filename="package://ergoCub/meshes/simmechanics/sim_ecub_1-1_r_hand_index_2.stl" scale="0.001 0.001 0.001"/>
      </geometry>
      <material name="">
        <color rgba="0.5 0.5 0.5 1"/>
      </material>
    </collision>
  </link>
  <joint name="r_index_dist" type="revolute">
    <origin xyz="4.163336342344337e-17 -0.0014999999999998903 -0.040000000000000036" rpy="1.942890293094024e-16 3.469446951953614e-17 1.665334536937736e-16"/>
    <axis xyz="-0.9999999999999993 -2.0122792321330975e-16 -4.510281037539697e-16"/>
    <parent link="r_hand_index_2"/>
    <child link="r_hand_index_3"/>
    <limit lower="0" upper="1.7994344588061537" effort="1e+9" velocity="1e+9"/>
    <dynamics damping="2" friction="0"/>
  </joint>
  <link name="r_hand_index_3">
    <inertial>
      <mass value="0.007251413355667432"/>
      <origin xyz="4.432513430773638e-5 0.0027547026217409343 -0.01889087735725714" rpy="0 -0 0"/>
      <inertia ixx="1.9331833106031376e-6" ixy="-7.989481683614064e-11" ixz="-7.904608320181986e-9" iyy="1.9365664798884807e-6" iyz="-7.313734234921826e-8" izz="3.168122388413564e-7"/>
    </inertial>
    <visual>
      <origin xyz="0 0 0" rpy="0 -0 0"/>
      <geometry>
        <mesh filename="package://ergoCub/meshes/simmechanics/sim_ecub_1-1_r_hand_index_3.stl" scale="0.001 0.001 0.001"/>
      </geometry>
      <material name="">
        <color rgba="0.5 0.5 0.5 1"/>
      </material>
    </visual>
    <collision>
      <origin xyz="0 0 0" rpy="0 -0 0"/>
      <geometry>
        <mesh filename="package://ergoCub/meshes/simmechanics/sim_ecub_1-1_r_hand_index_3.stl" scale="0.001 0.001 0.001"/>
      </geometry>
      <material name="">
        <color rgba="0.5 0.5 0.5 1"/>
      </material>
    </collision>
  </link>
  <joint name="neck_roll" type="revolute">
    <origin xyz="8.673617379884035e-19 6.416192023745373e-17 0.009499999999999786" rpy="-1.7364294099408703e-15 -2.980403162017727e-16 1.580860396783509e-15"/>
    <axis xyz="1 -1.6820355477448088e-15 -3.806893332301044e-15"/>
    <parent link="neck_2"/>
    <child link="neck_3"/>
    <limit lower="-0.3490658503988659" upper="0.3490658503988659" effort="1e+9" velocity="1e+9"/>
    <dynamics damping="2" friction="0"/>
  </joint>
  <link name="neck_3">
    <inertial>
      <mass value="0.17811376821431446"/>
      <origin xyz="7.590511663558711e-4 -4.0916906938460536e-5 0.036035516549226765" rpy="0 -0 0"/>
      <inertia ixx="9.70548692219775e-5" ixy="1.7629468835177367e-7" ixz="6.130672988864901e-6" iyy="1.0759851740143377e-4" iyz="-2.503969674072287e-7" izz="3.626415440724103e-5"/>
    </inertial>
    <visual>
      <origin xyz="0 0 0" rpy="0 -0 0"/>
      <geometry>
        <mesh filename="package://ergoCub/meshes/simmechanics/sim_ecub_1-1_head_neck_3.stl" scale="0.001 0.001 0.001"/>
      </geometry>
      <material name="">
        <color rgba="0.6 0.6 0.6 1"/>
      </material>
    </visual>
    <collision>
      <origin xyz="0 0 0" rpy="0 -0 0"/>
      <geometry>
        <mesh filename="package://ergoCub/meshes/simmechanics/sim_ecub_1-1_head_neck_3.stl" scale="0.001 0.001 0.001"/>
      </geometry>
      <material name="">
        <color rgba="0.6 0.6 0.6 1"/>
      </material>
    </collision>
  </link>
  <joint name="neck_yaw" type="revolute">
    <origin xyz="-1.43982048506075e-16 -4.1419339784385294e-17 0.06914999999999999" rpy="1.2720090288173385e-15 -3.1687776687987536e-15 3.715432083235576e-16"/>
    <axis xyz="3.1628618281392715e-15 1.6479574685948862e-15 0.9999999999999998"/>
    <parent link="neck_3"/>
    <child link="head"/>
    <limit lower="-0.7853981633974483" upper="0.7853981633974483" effort="1e+9" velocity="1e+9"/>
    <dynamics damping="2" friction="0"/>
  </joint>
  <link name="head">
    <inertial>
      <mass value="1.972127893184972"/>
      <origin xyz="-0.01620091412622722 -0.002268813231724542 0.03500744217497026" rpy="0 -0 0"/>
      <inertia ixx="0.007991907355842523" ixy="1.8186740348760937e-4" ixz="-1.9244538977657914e-4" iyy="0.009883124315185845" iyz="-3.994074771344834e-5" izz="0.00786000669468763"/>
    </inertial>
    <visual>
      <origin xyz="0 0 0" rpy="0 -0 0"/>
      <geometry>
        <mesh filename="package://ergoCub/meshes/simmechanics/sim_ecub_1-1_head.stl" scale="0.001 0.001 0.001"/>
      </geometry>
      <material name="">
        <color rgba="1 1 1 1"/>
      </material>
    </visual>
    <collision>
      <origin xyz="0 0 0" rpy="0 -0 0"/>
      <geometry>
        <mesh filename="package://ergoCub/meshes/simmechanics/sim_ecub_1-1_head.stl" scale="0.001 0.001 0.001"/>
      </geometry>
      <material name="">
        <color rgba="1 1 1 1"/>
      </material>
    </collision>
  </link>
  <joint name="camera_tilt" type="revolute">
    <origin xyz="0.06250999999999993 -3.0000000001105853e-5 0.07639250000000064" rpy="9.166950960511526e-15 2.595819949100105e-4 1.9343583275079285e-15"/>
    <axis xyz="-3.1332662159460226e-17 -1 -1.3036401662462866e-15"/>
    <parent link="head"/>
    <child link="realsense"/>
    <limit lower="-0.5235987755982988" upper="0.5235987755982988" effort="1e+9" velocity="1e+9"/>
    <dynamics damping="2" friction="0"/>
  </joint>
  <link name="realsense">
    <inertial>
      <mass value="0.0973042045264468"/>
      <origin xyz="-0.01566548310600667 0.004519995218644514 0.002745610154123612" rpy="0 -0 0"/>
      <inertia ixx="1.3363140922191058e-4" ixy="4.7877399688365374e-5" ixz="2.5482221369268495e-5" iyy="1.8708641575714753e-4" iyz="-7.171072206331662e-6" izz="2.963329027014652e-4"/>
    </inertial>
    <visual>
      <origin xyz="0 0 0" rpy="0 -0 0"/>
      <geometry>
        <mesh filename="package://ergoCub/meshes/simmechanics/sim_ecub_1-1_realsense.stl" scale="0.001 0.001 0.001"/>
      </geometry>
      <material name="">
        <color rgba="0.6 0.6 0.6 1"/>
      </material>
    </visual>
    <collision>
      <origin xyz="0 0 0" rpy="0 -0 0"/>
      <geometry>
        <mesh filename="package://ergoCub/meshes/simmechanics/sim_ecub_1-1_realsense.stl" scale="0.001 0.001 0.001"/>
      </geometry>
      <material name="">
        <color rgba="0.6 0.6 0.6 1"/>
      </material>
    </collision>
  </link>
  <joint name="l_shoulder_roll" type="revolute">
    <origin xyz="0.005000000000000011 0.09329999999999987 -3.0531133177191805e-16" rpy="2.6895152771544417e-14 1.790234627208065e-15 -2.3314683517128287e-15"/>
    <axis xyz="1 4.891920202255013e-16 3.3029134982598896e-15"/>
    <parent link="l_shoulder_1"/>
    <child link="l_shoulder_2"/>
    <limit lower="-0.2617993877991494" upper="2.6179938779914944" effort="1e+9" velocity="1e+9"/>
    <dynamics damping="2" friction="0"/>
  </joint>
  <link name="l_shoulder_2">
    <inertial>
      <mass value="0.44093319265387243"/>
      <origin xyz="0.007519395712385758 1.8727197477702573e-4 -0.020486062588588566" rpy="0 -0 0"/>
      <inertia ixx="2.9145977319834226e-4" ixy="1.1454484909976663e-6" ixz="-9.910474228153797e-5" iyy="4.316468020210048e-4" iyz="1.4378502430788573e-6" izz="2.711572335339609e-4"/>
    </inertial>
    <visual>
      <origin xyz="0 0 0" rpy="0 -0 0"/>
      <geometry>
        <mesh filename="package://ergoCub/meshes/simmechanics/sim_ecub_1-1_l_shoulder_2.stl" scale="0.001 0.001 0.001"/>
      </geometry>
      <material name="">
        <color rgba="0.6 0.6 0.6 1"/>
      </material>
    </visual>
    <collision>
      <origin xyz="0 0 0" rpy="0 -0 0"/>
      <geometry>
        <mesh filename="package://ergoCub/meshes/simmechanics/sim_ecub_1-1_l_shoulder_2.stl" scale="0.001 0.001 0.001"/>
      </geometry>
      <material name="">
        <color rgba="0.6 0.6 0.6 1"/>
      </material>
    </collision>
  </link>
  <joint name="l_arm_ft_sensor" type="fixed">
    <origin xyz="-0.004349999999999986 -2.7755575615628914e-17 -0.05430000000000004" rpy="2.2204460492503136e-16 6.938893903907228e-18 1.4988010832439621e-15"/>
    <parent link="l_shoulder_2"/>
    <child link="l_shoulder_3"/>
  </joint>
  <link name="l_shoulder_3">
    <inertial>
      <mass value="0.271466272759966"/>
      <origin xyz="8.311677995862313e-5 3.065483169523153e-5 -0.007966545320293866" rpy="0 -0 0"/>
      <inertia ixx="7.620284216408771e-5" ixy="-3.6549977471418807e-7" ixz="3.624007789477276e-8" iyy="7.648716704064355e-5" iyz="6.05135559486276e-8" izz="1.2740184766278623e-4"/>
    </inertial>
    <visual>
      <origin xyz="0 0 0" rpy="0 -0 0"/>
      <geometry>
        <mesh filename="package://ergoCub/meshes/simmechanics/sim_ecub_1-1_l_shoulder_3.stl" scale="0.001 0.001 0.001"/>
      </geometry>
      <material name="">
        <color rgba="0.6 0.6 0.6 1"/>
      </material>
    </visual>
    <collision>
      <origin xyz="0 0 0" rpy="0 -0 0"/>
      <geometry>
        <mesh filename="package://ergoCub/meshes/simmechanics/sim_ecub_1-1_l_shoulder_3.stl" scale="0.001 0.001 0.001"/>
      </geometry>
      <material name="">
        <color rgba="0.6 0.6 0.6 1"/>
      </material>
    </collision>
  </link>
  <joint name="l_shoulder_yaw" type="revolute">
    <origin xyz="4.163336342344337e-17 -5.551115123125783e-17 -0.022499999999999937" rpy="-3.3029134982598486e-15 -3.002459392220658e-14 6.383782391594671e-15"/>
    <axis xyz="-3.0080105073437835e-14 3.191891195797326e-15 -0.9999999999999977"/>
    <parent link="l_shoulder_3"/>
    <child link="l_upper_arm"/>
    <limit lower="-0.8726646259971648" upper="1.3962634015954636" effort="1e+9" velocity="1e+9"/>
    <dynamics damping="2" friction="0"/>
  </joint>
  <link name="l_upper_arm">
    <inertial>
      <mass value="1.7708527474969076"/>
      <origin xyz="1.3049265136780286e-4 0.0022530185376357925 -0.050065038959805325" rpy="0 -0 0"/>
      <inertia ixx="0.003417154867942194" ixy="-2.952452997527239e-5" ixz="2.6752323704214618e-5" iyy="0.0035109035513553296" iyz="1.0388063737032838e-4" izz="0.0015716101936389657"/>
    </inertial>
    <visual>
      <origin xyz="0 0 0" rpy="0 -0 0"/>
      <geometry>
        <mesh filename="package://ergoCub/meshes/simmechanics/sim_ecub_1-1_l_upperarm.stl" scale="0.001 0.001 0.001"/>
      </geometry>
      <material name="">
        <color rgba="1 1 1 1"/>
      </material>
    </visual>
    <collision>
      <origin xyz="0 0 0" rpy="0 -0 0"/>
      <geometry>
        <mesh filename="package://ergoCub/meshes/simmechanics/sim_ecub_1-1_l_upperarm.stl" scale="0.001 0.001 0.001"/>
      </geometry>
      <material name="">
        <color rgba="1 1 1 1"/>
      </material>
    </collision>
  </link>
  <joint name="l_elbow" type="revolute">
    <origin xyz="0.009999999999996342 -0.0014999999999996405 -0.12369999999999956" rpy="-3.1641356201817088e-15 -3.134298376394895e-14 -7.827072323607395e-15"/>
    <axis xyz="-4.215378046622413e-16 -0.9999999999999953 6.5780714209038095e-15"/>
    <parent link="l_upper_arm"/>
    <child link="l_forearm"/>
    <limit lower="-0.05235987755982989" upper="1.3089969389957472" effort="1e+9" velocity="1e+9"/>
    <dynamics damping="2" friction="0"/>
  </joint>
  <link name="l_forearm">
    <inertial>
      <mass value="1.4604487031386884"/>
      <origin xyz="-0.018553263328673478 0.0023119252259846124 -0.08919372240797706" rpy="0 -0 0"/>
      <inertia ixx="0.003893738896214435" ixy="-3.4642535094897738e-6" ixz="-4.190258302572787e-5" iyy="0.003967428265005762" iyz="-1.2157659778638894e-5" izz="0.0015062007003231051"/>
    </inertial>
    <visual>
      <origin xyz="0 0 0" rpy="0 -0 0"/>
      <geometry>
        <mesh filename="package://ergoCub/meshes/simmechanics/sim_ecub_1-1_l_forearm.stl" scale="0.001 0.001 0.001"/>
      </geometry>
      <material name="">
        <color rgba="1 1 1 1"/>
      </material>
    </visual>
    <collision>
      <origin xyz="0 0 0" rpy="0 -0 0"/>
      <geometry>
        <mesh filename="package://ergoCub/meshes/simmechanics/sim_ecub_1-1_l_forearm.stl" scale="0.001 0.001 0.001"/>
      </geometry>
      <material name="">
        <color rgba="1 1 1 1"/>
      </material>
    </collision>
  </link>
  <joint name="l_wrist_yaw" type="revolute">
    <origin xyz="-0.014999999999992455 0.0020000000000007234 -0.1943500000000013" rpy="-2.775557561562897e-16 -7.741723928589295e-14 -5.551115123125795e-17"/>
    <axis xyz="-3.1023794644369224e-14 2.9420910152566676e-15 -0.9999999999999981"/>
    <parent link="l_forearm"/>
    <child link="l_wrist_1"/>
    <limit lower="-1.6057029118347832" upper="1.6057029118347832" effort="1e+9" velocity="1e+9"/>
    <dynamics damping="2" friction="0"/>
  </joint>
  <link name="l_wrist_1">
    <inertial>
      <mass value="0.1226928"/>
      <origin xyz="1.4545073498396788e-4 -1.5595311920038601e-4 0.022377795694245" rpy="0 -0 0"/>
      <inertia ixx="4.99469100996649e-5" ixy="-2.787171151199186e-7" ixz="-6.017806812164961e-7" iyy="4.93613984105829e-5" iyz="7.090130898393705e-7" izz="5.040833558305853e-5"/>
    </inertial>
    <visual>
      <origin xyz="0 0 0" rpy="0 -0 0"/>
      <geometry>
        <mesh filename="package://ergoCub/meshes/simmechanics/sim_ecub_1-1_l_wrist_1.stl" scale="0.001 0.001 0.001"/>
      </geometry>
      <material name="">
        <color rgba="0.6 0.6 0.6 1"/>
      </material>
    </visual>
    <collision>
      <origin xyz="0 0 0" rpy="0 -0 0"/>
      <geometry>
        <mesh filename="package://ergoCub/meshes/simmechanics/sim_ecub_1-1_l_wrist_1.stl" scale="0.001 0.001 0.001"/>
      </geometry>
      <material name="">
        <color rgba="0.6 0.6 0.6 1"/>
      </material>
    </collision>
  </link>
  <joint name="l_wrist_roll" type="revolute">
    <origin xyz="2.7755575615628914e-17 1.942890293094024e-16 2.7755575615628914e-17" rpy="3.885780586188047e-16 9.71445146547012e-17 -4.440892098500624e-16"/>
    <axis xyz="-1.0000000000000004 4.909267437014364e-16 -2.0122792321330943e-16"/>
    <parent link="l_wrist_1"/>
    <child link="l_wrist_2"/>
    <limit lower="-1.0821041362364843" upper="0.9075712110370514" effort="1e+9" velocity="1e+9"/>
    <dynamics damping="2" friction="0"/>
  </joint>
  <link name="l_wrist_2">
    <inertial>
      <mass value="0.02118836"/>
      <origin xyz="-7.4183919215875535e-9 -7.897157534373368e-4 -0.0046969679508168105" rpy="0 -0 0"/>
      <inertia ixx="1.588238425453937e-6" ixy="-2.165272906156668e-11" ixz="7.915941092897307e-11" iyy="1.6073132474088142e-6" iyz="-7.554073452985005e-8" izz="2.5064973929673043e-6"/>
    </inertial>
    <visual>
      <origin xyz="0 0 0" rpy="0 -0 0"/>
      <geometry>
        <mesh filename="package://ergoCub/meshes/simmechanics/sim_ecub_1-1_l_wrist_2.stl" scale="0.001 0.001 0.001"/>
      </geometry>
      <material name="">
        <color rgba="0.5 0.5 0.5 1"/>
      </material>
    </visual>
    <collision>
      <origin xyz="0 0 0" rpy="0 -0 0"/>
      <geometry>
        <mesh filename="package://ergoCub/meshes/simmechanics/sim_ecub_1-1_l_wrist_2.stl" scale="0.001 0.001 0.001"/>
      </geometry>
      <material name="">
        <color rgba="0.5 0.5 0.5 1"/>
      </material>
    </collision>
  </link>
  <joint name="l_wrist_pitch" type="revolute">
    <origin xyz="-1.214306433183765e-16 -1.6653345369377348e-16 0" rpy="-4.163336342344336e-16 1.0798191507621624e-10 3.330669073875468e-16"/>
    <axis xyz="-2.4459601009774425e-16 -1.0000000000000002 -1.3600232051562635e-15"/>
    <parent link="l_wrist_2"/>
    <child link="l_hand_palm"/>
    <limit lower="-0.5585053606381855" upper="0.5585053606381855" effort="1e+9" velocity="1e+9"/>
    <dynamics damping="2" friction="0"/>
  </joint>
  <link name="l_hand_palm">
    <inertial>
      <mass value="0.20364988213680776"/>
      <origin xyz="-0.003950502224178115 0.0019881930945492288 -0.058015852438740544" rpy="0 -0 0"/>
      <inertia ixx="1.461813098502197e-4" ixy="-3.793772344466637e-6" ixz="-1.1466988740793722e-5" iyy="2.145411925003367e-4" iyz="-3.736671542252551e-6" izz="1.0648405292544985e-4"/>
    </inertial>
    <visual>
      <origin xyz="0 0 0" rpy="0 -0 0"/>
      <geometry>
        <mesh filename="package://ergoCub/meshes/simmechanics/sim_ecub_1-1_l_hand_palm.stl" scale="0.001 0.001 0.001"/>
      </geometry>
      <material name="">
        <color rgba="1 1 1 1"/>
      </material>
    </visual>
    <collision>
      <origin xyz="0 0 0" rpy="0 -0 0"/>
      <geometry>
        <mesh filename="package://ergoCub/meshes/simmechanics/sim_ecub_1-1_l_hand_palm.stl" scale="0.001 0.001 0.001"/>
      </geometry>
      <material name="">
        <color rgba="1 1 1 1"/>
      </material>
    </collision>
  </link>
  <joint name="l_index_add" type="revolute">
    <origin xyz="0.022500000000000023 -0.0015000000000006952 -0.0685999999999996" rpy="-8.416895217637947e-16 -0.29670597224465534 5.804755322508926e-17"/>
    <axis xyz="1.1895336853461886e-15 0.9999999999999999 -1.9812040713213337e-15"/>
    <parent link="l_hand_palm"/>
    <child link="l_hand_index_1"/>
    <limit lower="0" upper="0.2617993877991494" effort="1e+9" velocity="1e+9"/>
    <dynamics damping="2" friction="0"/>
  </joint>
  <link name="l_hand_index_1">
    <inertial>
      <mass value="0.01923264"/>
      <origin xyz="0.008430306749277854 0.0038510231844406384 -0.017148502808541133" rpy="0 -0 0"/>
      <inertia ixx="2.6252721263619075e-6" ixy="-9.94793061395749e-8" ixz="4.4747998977494927e-7" iyy="2.8117732161881507e-6" iyz="-3.9466206080886376e-8" izz="1.2100925115556048e-6"/>
    </inertial>
    <visual>
      <origin xyz="0 0 0" rpy="0 -0 0"/>
      <geometry>
        <mesh filename="package://ergoCub/meshes/simmechanics/sim_ecub_1-1_l_hand_index_1.stl" scale="0.001 0.001 0.001"/>
      </geometry>
      <material name="">
        <color rgba="0.5 0.5 0.5 1"/>
      </material>
    </visual>
    <collision>
      <origin xyz="0 0 0" rpy="0 -0 0"/>
      <geometry>
        <mesh filename="package://ergoCub/meshes/simmechanics/sim_ecub_1-1_l_hand_index_1.stl" scale="0.001 0.001 0.001"/>
      </geometry>
      <material name="">
        <color rgba="0.5 0.5 0.5 1"/>
      </material>
    </collision>
  </link>
  <joint name="l_middle_prox" type="revolute">
    <origin xyz="0.00960000000000016 -0.0015000000000005842 -0.10299999999999959" rpy="5.479728916549446e-4 1.4363510381087963e-15 -8.32667268468867e-16"/>
    <axis xyz="-1.0000000000000004 1.6098145522958664e-16 4.176883423103147e-15"/>
    <parent link="l_hand_palm"/>
    <child link="l_hand_middle_1"/>
    <limit lower="0" upper="1.5707963267948966" effort="1e+9" velocity="1e+9"/>
    <dynamics damping="2" friction="0"/>
  </joint>
  <link name="l_hand_middle_1">
    <inertial>
      <mass value="0.007486366"/>
      <origin xyz="5.609414423399586e-5 0.0010938363913530202 -0.0174225309754375" rpy="0 -0 0"/>
      <inertia ixx="1.5929480475374711e-6" ixy="-9.219821293951626e-10" ixz="-9.505332652309699e-9" iyy="1.5230397093076881e-6" iyz="1.1029328740444945e-7" izz="3.1819719384777893e-7"/>
    </inertial>
    <visual>
      <origin xyz="0 0 0" rpy="0 -0 0"/>
      <geometry>
        <mesh filename="package://ergoCub/meshes/simmechanics/sim_ecub_1-1_l_hand_middle_1.stl" scale="0.001 0.001 0.001"/>
      </geometry>
      <material name="">
        <color rgba="0.5 0.5 0.5 1"/>
      </material>
    </visual>
    <collision>
      <origin xyz="0 0 0" rpy="0 -0 0"/>
      <geometry>
        <mesh filename="package://ergoCub/meshes/simmechanics/sim_ecub_1-1_l_hand_middle_1.stl" scale="0.001 0.001 0.001"/>
      </geometry>
      <material name="">
        <color rgba="0.5 0.5 0.5 1"/>
      </material>
    </collision>
  </link>
  <joint name="l_pinkie_prox" type="revolute">
    <origin xyz="-0.035982322249527285 -0.0023883158589564635 -0.09206560929209856" rpy="-1.9934591492976922e-5 0.08728175651239228 0.02618761244812705"/>
    <axis xyz="-0.9999999998538295 7.644772463726695e-6 -1.529375771042174e-5"/>
    <parent link="l_hand_palm"/>
    <child link="l_hand_pinkie_1"/>
    <limit lower="0" upper="1.5707963267948966" effort="1e+9" velocity="1e+9"/>
    <dynamics damping="2" friction="0"/>
  </joint>
  <link name="l_hand_pinkie_1">
    <inertial>
      <mass value="0.006357586"/>
      <origin xyz="3.6554577562467744e-5 0.0012135491682558897 -0.015052861815374408" rpy="0 -0 0"/>
      <inertia ixx="1.1595706744459758e-6" ixy="1.817145860874702e-10" ixz="-5.131228041325918e-9" iyy="1.1053210733791516e-6" iyz="9.124017197402374e-8" izz="2.734185829473546e-7"/>
    </inertial>
    <visual>
      <origin xyz="0 0 0" rpy="0 -0 0"/>
      <geometry>
        <mesh filename="package://ergoCub/meshes/simmechanics/sim_ecub_1-1_l_hand_pinkie_1.stl" scale="0.001 0.001 0.001"/>
      </geometry>
      <material name="">
        <color rgba="0.5 0.5 0.5 1"/>
      </material>
    </visual>
    <collision>
      <origin xyz="0 0 0" rpy="0 -0 0"/>
      <geometry>
        <mesh filename="package://ergoCub/meshes/simmechanics/sim_ecub_1-1_l_hand_pinkie_1.stl" scale="0.001 0.001 0.001"/>
      </geometry>
      <material name="">
        <color rgba="0.5 0.5 0.5 1"/>
      </material>
    </collision>
  </link>
  <joint name="l_ring_prox" type="revolute">
    <origin xyz="-0.015417755558120038 -0.0018498137284707894 -0.09788067183884419" rpy="-4.001819369804634e-5 0.08726646259973214 0.026179938779914452"/>
    <axis xyz="-1.0000000000000002 4.364549018964596e-17 3.6637359812630166e-15"/>
    <parent link="l_hand_palm"/>
    <child link="l_hand_ring_1"/>
    <limit lower="0" upper="1.5707963267948966" effort="1e+9" velocity="1e+9"/>
    <dynamics damping="2" friction="0"/>
  </joint>
  <link name="l_hand_ring_1">
    <inertial>
      <mass value="0.007486366"/>
      <origin xyz="5.610953414397422e-5 0.001113903955753115 -0.017428756834488968" rpy="0 -0 0"/>
      <inertia ixx="1.5926175322430852e-6" ixy="-7.593027571592815e-10" ixz="-9.630025713700034e-9" iyy="1.522746441882303e-6" iyz="1.1162272723786417e-7" izz="3.177930886696654e-7"/>
    </inertial>
    <visual>
      <origin xyz="0 0 0" rpy="0 -0 0"/>
      <geometry>
        <mesh filename="package://ergoCub/meshes/simmechanics/sim_ecub_1-1_l_hand_ring_1.stl" scale="0.001 0.001 0.001"/>
      </geometry>
      <material name="">
        <color rgba="0.5 0.5 0.5 1"/>
      </material>
    </visual>
    <collision>
      <origin xyz="0 0 0" rpy="0 -0 0"/>
      <geometry>
        <mesh filename="package://ergoCub/meshes/simmechanics/sim_ecub_1-1_l_hand_ring_1.stl" scale="0.001 0.001 0.001"/>
      </geometry>
      <material name="">
        <color rgba="0.5 0.5 0.5 1"/>
      </material>
    </collision>
  </link>
  <joint name="l_thumb_add" type="revolute">
    <origin xyz="0.02337486325639077 -0.0030000000000002525 -0.03452383847355461" rpy="-0.04044970061859103 0.22331918636553513 2.9608435412698353"/>
    <axis xyz="9.71445146547012e-16 1.0269562977782698e-15 -1.0000000000000002"/>
    <parent link="l_hand_palm"/>
    <child link="l_hand_thumb_1"/>
    <limit lower="0" upper="1.7453292519943295" effort="1e+9" velocity="1e+9"/>
    <dynamics damping="2" friction="0"/>
  </joint>
  <link name="l_hand_thumb_1">
    <inertial>
      <mass value="0.029029542280278556"/>
      <origin xyz="-0.018039176431428286 -0.0028662725726853466 0.0021177719486905056" rpy="0 -0 0"/>
      <inertia ixx="2.7178312304541084e-6" ixy="-3.676108153783739e-7" ixz="-2.7762391665657096e-7" iyy="7.273678916289491e-6" iyz="1.0493561895389714e-7" izz="5.835849245332402e-6"/>
    </inertial>
    <visual>
      <origin xyz="0 0 0" rpy="0 -0 0"/>
      <geometry>
        <mesh filename="package://ergoCub/meshes/simmechanics/sim_ecub_1-1_l_hand_thumb_1.stl" scale="0.001 0.001 0.001"/>
      </geometry>
      <material name="">
        <color rgba="0.5 0.5 0.5 1"/>
      </material>
    </visual>
    <collision>
      <origin xyz="0 0 0" rpy="0 -0 0"/>
      <geometry>
        <mesh filename="package://ergoCub/meshes/simmechanics/sim_ecub_1-1_l_hand_thumb_1.stl" scale="0.001 0.001 0.001"/>
      </geometry>
      <material name="">
        <color rgba="0.5 0.5 0.5 1"/>
      </material>
    </collision>
  </link>
  <joint name="l_thumb_prox" type="revolute">
    <origin xyz="-0.038093197449591214 -0.0032591938585579128 -0.0036017448035497446" rpy="1.37186358506996 0.1374915276146556 -3.1415926535689005"/>
    <axis xyz="5.134781488891349e-16 3.1363800445660672e-15 -0.9999999999999996"/>
    <parent link="l_hand_thumb_1"/>
    <child link="l_hand_thumb_2"/>
    <limit lower="0" upper="1.5707963267948966" effort="1e+9" velocity="1e+9"/>
    <dynamics damping="2" friction="0"/>
  </joint>
  <link name="l_hand_thumb_2">
    <inertial>
      <mass value="0.00669603218404702"/>
      <origin xyz="0.014887264468035857 0.0011329726380328031 6.266005936719776e-5" rpy="0 -0 0"/>
      <inertia ixx="2.82273870293961e-7" ixy="-9.431423655787125e-8" ixz="7.949036006532621e-9" iyy="1.1148767778556158e-6" iyz="-7.629054803910611e-10" izz="1.1785117216489732e-6"/>
    </inertial>
    <visual>
      <origin xyz="0 0 0" rpy="0 -0 0"/>
      <geometry>
        <mesh filename="package://ergoCub/meshes/simmechanics/sim_ecub_1-1_l_hand_thumb_2.stl" scale="0.001 0.001 0.001"/>
      </geometry>
      <material name="">
        <color rgba="0.5 0.5 0.5 1"/>
      </material>
    </visual>
    <collision>
      <origin xyz="0 0 0" rpy="0 -0 0"/>
      <geometry>
        <mesh filename="package://ergoCub/meshes/simmechanics/sim_ecub_1-1_l_hand_thumb_2.stl" scale="0.001 0.001 0.001"/>
      </geometry>
      <material name="">
        <color rgba="0.5 0.5 0.5 1"/>
      </material>
    </collision>
  </link>
  <joint name="l_thumb_dist" type="revolute">
    <origin xyz="0.03500000000368915 -0.001499999993667872 1.0741685319004546e-12" rpy="1.8750459518379624e-11 -1.8465340367868066e-11 -1.4806766923669552e-12"/>
    <axis xyz="-1.846719305254041e-11 -1.8750709318560158e-11 -0.9999999999999996"/>
    <parent link="l_hand_thumb_2"/>
    <child link="l_hand_thumb_3"/>
    <limit lower="0" upper="1.7697638615222502" effort="1e+9" velocity="1e+9"/>
    <dynamics damping="2" friction="0"/>
  </joint>
  <link name="l_hand_thumb_3">
    <inertial>
      <mass value="0.006831595"/>
      <origin xyz="0.016086252532748233 0.0026526887310780456 4.701425890352162e-5" rpy="0 -0 0"/>
      <inertia ixx="2.8800798429683427e-7" ixy="5.926758782001814e-8" ixz="6.997805198870725e-9" iyy="1.472681587075844e-6" iyz="-2.1551532736764057e-11" izz="1.4681159324831446e-6"/>
    </inertial>
    <visual>
      <origin xyz="0 0 0" rpy="0 -0 0"/>
      <geometry>
        <mesh filename="package://ergoCub/meshes/simmechanics/sim_ecub_1-1_l_hand_thumb_3.stl" scale="0.001 0.001 0.001"/>
      </geometry>
      <material name="">
        <color rgba="0.5 0.5 0.5 1"/>
      </material>
    </visual>
    <collision>
      <origin xyz="0 0 0" rpy="0 -0 0"/>
      <geometry>
        <mesh filename="package://ergoCub/meshes/simmechanics/sim_ecub_1-1_l_hand_thumb_3.stl" scale="0.001 0.001 0.001"/>
      </geometry>
      <material name="">
        <color rgba="0.5 0.5 0.5 1"/>
      </material>
    </collision>
  </link>
  <joint name="l_ring_dist" type="revolute">
    <origin xyz="1.4987329953475292e-11 -0.0015000000002768354 -0.04000000000073728" rpy="-1.2044308636062927e-4 -1.0794291155358238e-10 -2.509104035652854e-13"/>
    <axis xyz="-1 -2.617159685310911e-13 1.0794249544288393e-10"/>
    <parent link="l_hand_ring_1"/>
    <child link="l_hand_ring_2"/>
    <limit lower="0" upper="1.7994344588061537" effort="1e+9" velocity="1e+9"/>
    <dynamics damping="2" friction="0"/>
  </joint>
  <link name="l_hand_ring_2">
    <inertial>
      <mass value="0.007251413"/>
      <origin xyz="4.433654030530642e-5 0.0027546754597598533 -0.01889085949732494" rpy="0 -0 0"/>
      <inertia ixx="1.9331168483007796e-6" ixy="-8.964055458821853e-11" ixz="-7.917778264767445e-9" iyy="1.9366717747954655e-6" iyz="-7.299706676136226e-8" izz="3.1694089240456203e-7"/>
    </inertial>
    <visual>
      <origin xyz="0 0 0" rpy="0 -0 0"/>
      <geometry>
        <mesh filename="package://ergoCub/meshes/simmechanics/sim_ecub_1-1_l_hand_ring_2.stl" scale="0.001 0.001 0.001"/>
      </geometry>
      <material name="">
        <color rgba="0.5 0.5 0.5 1"/>
      </material>
    </visual>
    <collision>
      <origin xyz="0 0 0" rpy="0 -0 0"/>
      <geometry>
        <mesh filename="package://ergoCub/meshes/simmechanics/sim_ecub_1-1_l_hand_ring_2.stl" scale="0.001 0.001 0.001"/>
      </geometry>
      <material name="">
        <color rgba="0.5 0.5 0.5 1"/>
      </material>
    </collision>
  </link>
  <joint name="l_pinkie_dist" type="revolute">
    <origin xyz="1.4015903021524778e-11 -0.0014999999962120036 -0.03500000000709719" rpy="-4.438681233740257e-5 -1.0794289073690067e-10 -2.489120021209601e-13"/>
    <axis xyz="-0.9999999998538309 7.645451042193251e-6 -1.5293310428212298e-5"/>
    <parent link="l_hand_pinkie_1"/>
    <child link="l_hand_pinkie_2"/>
    <limit lower="0" upper="1.7226399717184033" effort="1e+9" velocity="1e+9"/>
    <dynamics damping="2" friction="0"/>
  </joint>
  <link name="l_hand_pinkie_2">
    <inertial>
      <mass value="0.007240237"/>
      <origin xyz="2.2378292628411067e-5 0.0027712834790767915 -0.018930353878106154" rpy="0 -0 0"/>
      <inertia ixx="1.9251949577353665e-6" ixy="-4.6071411032444134e-10" ixz="-3.7359984605543596e-9" iyy="1.9290048779043837e-6" iyz="-7.606337504739766e-8" izz="3.162424517550918e-7"/>
    </inertial>
    <visual>
      <origin xyz="0 0 0" rpy="0 -0 0"/>
      <geometry>
        <mesh filename="package://ergoCub/meshes/simmechanics/sim_ecub_1-1_l_hand_pinkie_2.stl" scale="0.001 0.001 0.001"/>
      </geometry>
      <material name="">
        <color rgba="0.5 0.5 0.5 1"/>
      </material>
    </visual>
    <collision>
      <origin xyz="0 0 0" rpy="0 -0 0"/>
      <geometry>
        <mesh filename="package://ergoCub/meshes/simmechanics/sim_ecub_1-1_l_hand_pinkie_2.stl" scale="0.001 0.001 0.001"/>
      </geometry>
      <material name="">
        <color rgba="0.5 0.5 0.5 1"/>
      </material>
    </collision>
  </link>
  <joint name="l_middle_dist" type="revolute">
    <origin xyz="1.5440777129116512e-11 -0.001499999999999363 -0.03999999999896309" rpy="0.017535706363213464 -1.0797945176888035e-10 5.917488721252084e-14"/>
    <axis xyz="-1 1.952334931070572e-12 1.0795870667149422e-10"/>
    <parent link="l_hand_middle_1"/>
    <child link="l_hand_middle_2"/>
    <limit lower="0" upper="1.7994344588061537" effort="1e+9" velocity="1e+9"/>
    <dynamics damping="2" friction="0"/>
  </joint>
  <link name="l_hand_middle_2">
    <inertial>
      <mass value="0.007251413"/>
      <origin xyz="4.4316320155644157e-5 0.0027547229469275236 -0.018890877319942878" rpy="0 -0 0"/>
      <inertia ixx="1.933060230194342e-6" ixy="-1.5243567957691928e-10" ixz="-7.8198851655833e-9" iyy="1.9366210236852174e-6" iyz="-7.316224558810137e-8" izz="3.1681825706684464e-7"/>
    </inertial>
    <visual>
      <origin xyz="0 0 0" rpy="0 -0 0"/>
      <geometry>
        <mesh filename="package://ergoCub/meshes/simmechanics/sim_ecub_1-1_l_hand_middle_2.stl" scale="0.001 0.001 0.001"/>
      </geometry>
      <material name="">
        <color rgba="0.5 0.5 0.5 1"/>
      </material>
    </visual>
    <collision>
      <origin xyz="0 0 0" rpy="0 -0 0"/>
      <geometry>
        <mesh filename="package://ergoCub/meshes/simmechanics/sim_ecub_1-1_l_hand_middle_2.stl" scale="0.001 0.001 0.001"/>
      </geometry>
      <material name="">
        <color rgba="0.5 0.5 0.5 1"/>
      </material>
    </collision>
  </link>
  <joint name="l_index_prox" type="revolute">
    <origin xyz="0.00919253334679343 0 -0.030713451309624218" rpy="-3.0531133177191815e-16 -7.023611484080483e-10 -7.771561172376096e-16"/>
    <axis xyz="-1 8.326672684688522e-17 7.023654435833748e-10"/>
    <parent link="l_hand_index_1"/>
    <child link="l_hand_index_2"/>
    <limit lower="0" upper="1.5707963267948966" effort="1e+9" velocity="1e+9"/>
    <dynamics damping="2" friction="0"/>
  </joint>
  <link name="l_hand_index_2">
    <inertial>
      <mass value="0.007486366"/>
      <origin xyz="5.6100110941745274e-5 0.001113133191428639 -0.01742880406449937" rpy="0 -0 0"/>
      <inertia ixx="1.5919421212473372e-6" ixy="-8.197016561018782e-10" ixz="-9.495218356033137e-9" iyy="1.5224880972680802e-6" iyz="1.1144592625272454e-7" izz="3.1764737598732553e-7"/>
    </inertial>
    <visual>
      <origin xyz="0 0 0" rpy="0 -0 0"/>
      <geometry>
        <mesh filename="package://ergoCub/meshes/simmechanics/sim_ecub_1-1_l_hand_index_2.stl" scale="0.001 0.001 0.001"/>
      </geometry>
      <material name="">
        <color rgba="0.5 0.5 0.5 1"/>
      </material>
    </visual>
    <collision>
      <origin xyz="0 0 0" rpy="0 -0 0"/>
      <geometry>
        <mesh filename="package://ergoCub/meshes/simmechanics/sim_ecub_1-1_l_hand_index_2.stl" scale="0.001 0.001 0.001"/>
      </geometry>
      <material name="">
        <color rgba="0.5 0.5 0.5 1"/>
      </material>
    </collision>
  </link>
  <joint name="l_index_dist" type="revolute">
    <origin xyz="-1.3877787807814457e-17 -0.001500000000000029 -0.03999999999999987" rpy="-7.482326172536535e-8 1.8041124150158794e-16 -6.106226635438361e-16"/>
    <axis xyz="-1 -2.359224176539984e-16 4.163337069211178e-17"/>
    <parent link="l_hand_index_2"/>
    <child link="l_hand_index_3"/>
    <limit lower="0" upper="1.7994344588061537" effort="1e+9" velocity="1e+9"/>
    <dynamics damping="2" friction="0"/>
  </joint>
  <link name="l_hand_index_3">
    <inertial>
      <mass value="0.007251413"/>
      <origin xyz="4.431356673249148e-5 0.0027546711855188366 -0.018890916917498335" rpy="0 -0 0"/>
      <inertia ixx="1.932816895772585e-6" ixy="-1.721386036062205e-10" ixz="-7.819556637146551e-9" iyy="1.9363709956455972e-6" iyz="-7.306511833741725e-8" izz="3.169078614257433e-7"/>
    </inertial>
    <visual>
      <origin xyz="0 0 0" rpy="0 -0 0"/>
      <geometry>
        <mesh filename="package://ergoCub/meshes/simmechanics/sim_ecub_1-1_l_hand_index_3.stl" scale="0.001 0.001 0.001"/>
      </geometry>
      <material name="">
        <color rgba="0.5 0.5 0.5 1"/>
      </material>
    </visual>
    <collision>
      <origin xyz="0 0 0" rpy="0 -0 0"/>
      <geometry>
        <mesh filename="package://ergoCub/meshes/simmechanics/sim_ecub_1-1_l_hand_index_3.stl" scale="0.001 0.001 0.001"/>
      </geometry>
      <material name="">
        <color rgba="0.5 0.5 0.5 1"/>
      </material>
    </collision>
  </link>
  <joint name="r_hip_roll" type="revolute">
    <origin xyz="-0.047250000000000625 -0.033099999999999824 -0.009000000000000091" rpy="-2.73316156054826e-16 2.504641391024977e-16 -3.1036377681447894e-15"/>
    <axis xyz="-1 -3.3813287685016297e-16 -7.120227705451219e-17"/>
    <parent link="r_hip_1"/>
    <child link="r_hip_2"/>
    <limit lower="-0.2792526803190927" upper="1.9024088846738192" effort="1e+9" velocity="1e+9"/>
    <dynamics damping="2" friction="0"/>
  </joint>
  <link name="r_hip_2">
    <inertial>
      <mass value="1.8425374083524118"/>
      <origin xyz="-0.004338858395569037 -4.276785411407025e-5 -0.03711583728304848" rpy="0 -0 0"/>
      <inertia ixx="0.003120303249647105" ixy="2.3735315120274186e-6" ixz="0.0010124685247925123" iyy="0.005459166113270065" iyz="-1.8523984061140002e-6" izz="0.003419002844852166"/>
    </inertial>
    <visual>
      <origin xyz="0 0 0" rpy="0 -0 0"/>
      <geometry>
        <mesh filename="package://ergoCub/meshes/simmechanics/sim_ecub_1-1_r_hip_2.stl" scale="0.001 0.001 0.001"/>
      </geometry>
      <material name="">
        <color rgba="0.6 0.6 0.6 1"/>
      </material>
    </visual>
    <collision>
      <origin xyz="0 0 0" rpy="0 -0 0"/>
      <geometry>
        <mesh filename="package://ergoCub/meshes/simmechanics/sim_ecub_1-1_r_hip_2.stl" scale="0.001 0.001 0.001"/>
      </geometry>
      <material name="">
        <color rgba="0.6 0.6 0.6 1"/>
      </material>
    </collision>
  </link>
  <joint name="r_leg_ft_sensor" type="fixed">
    <origin xyz="0.036699999999999976 -5.551115123125783e-17 -0.08969999999999992" rpy="-1.3775953441385743e-15 5.490828022886651e-16 1.6105578736269433e-15"/>
    <parent link="r_hip_2"/>
    <child link="r_hip_3"/>
  </joint>
  <link name="r_hip_3">
    <inertial>
      <mass value="2.147900058066585"/>
      <origin xyz="0.0051510124501743006 0.012832092744145235 -0.05168842502826221" rpy="0 -0 0"/>
      <inertia ixx="0.007193177523135792" ixy="3.498727117566612e-5" ixz="2.4096738440560362e-5" iyy="0.008149001665389528" iyz="-1.2572783372468582e-4" izz="0.0057278283877820494"/>
    </inertial>
    <visual>
      <origin xyz="0 0 0" rpy="0 -0 0"/>
      <geometry>
        <mesh filename="package://ergoCub/meshes/simmechanics/sim_ecub_1-1_r_hip_3.stl" scale="0.001 0.001 0.001"/>
      </geometry>
      <material name="">
        <color rgba="1 1 1 1"/>
      </material>
    </visual>
    <collision>
      <origin xyz="0 0 0" rpy="0 -0 0"/>
      <geometry>
        <mesh filename="package://ergoCub/meshes/simmechanics/sim_ecub_1-1_r_hip_3.stl" scale="0.001 0.001 0.001"/>
      </geometry>
      <material name="">
        <color rgba="1 1 1 1"/>
      </material>
    </collision>
  </link>
  <joint name="r_hip_yaw" type="revolute">
    <origin xyz="-2.8622937353617317e-16 0.014999999999999777 -0.07269999999999871" rpy="-3.94514163379533e-15 7.430123072146451e-16 1.2193157749540276e-6"/>
    <axis xyz="-2.3953050207433507e-20 1.4749328491810949e-15 -1"/>
    <parent link="r_hip_3"/>
    <child link="r_upper_leg"/>
    <limit lower="-1.3788101090755203" upper="1.3788101090755203" effort="1e+9" velocity="1e+9"/>
    <dynamics damping="2" friction="0"/>
  </joint>
  <link name="r_upper_leg">
    <inertial>
      <mass value="2.784923431729287"/>
      <origin xyz="0.008517474024287675 -0.014468465702474021 -0.12674960557185616" rpy="0 -0 0"/>
      <inertia ixx="0.01186013252999811" ixy="5.455450241372543e-5" ixz="5.393573740676933e-4" iyy="0.01210913335208505" iyz="-4.0331041015476653e-4" izz="0.0022609706907693243"/>
    </inertial>
    <visual>
      <origin xyz="0 0 0" rpy="0 -0 0"/>
      <geometry>
        <mesh filename="package://ergoCub/meshes/simmechanics/sim_ecub_1-1_r_upper_leg.stl" scale="0.001 0.001 0.001"/>
      </geometry>
      <material name="">
        <color rgba="0.6 0.6 0.6 1"/>
      </material>
    </visual>
    <collision>
      <origin xyz="0 0 0" rpy="0 -0 0"/>
      <geometry>
        <mesh filename="package://ergoCub/meshes/simmechanics/sim_ecub_1-1_r_upper_leg.stl" scale="0.001 0.001 0.001"/>
      </geometry>
      <material name="">
        <color rgba="0.6 0.6 0.6 1"/>
      </material>
    </collision>
  </link>
  <joint name="r_knee" type="revolute">
    <origin xyz="0.01060000963260985 0.007899987075259289 -0.17970000000000058" rpy="6.892643261935339e-14 -6.650159361880639e-14 -1.2193157700904425e-6"/>
    <axis xyz="1.2193157766326317e-6 -0.9999999999992566 4.719551160658923e-15"/>
    <parent link="r_upper_leg"/>
    <child link="r_lower_leg"/>
    <limit lower="-1.8151424220741028" upper="0.10471975511965978" effort="1e+9" velocity="1e+9"/>
    <dynamics damping="2" friction="0"/>
  </joint>
  <link name="r_lower_leg">
    <inertial>
      <mass value="3.7621532589747924"/>
      <origin xyz="0.0012157689164458522 -0.006184734585333342 -0.21372759879868175" rpy="0 -0 0"/>
      <inertia ixx="0.04644215616821937" ixy="3.7269274872175814e-5" ixz="-8.519885904633137e-4" iyy="0.047738936736850285" iyz="-0.0018042981721195497" izz="0.004839671863500647"/>
    </inertial>
    <visual>
      <origin xyz="0 0 0" rpy="0 -0 0"/>
      <geometry>
        <mesh filename="package://ergoCub/meshes/simmechanics/sim_ecub_1-1_r_lower_leg.stl" scale="0.001 0.001 0.001"/>
      </geometry>
      <material name="">
        <color rgba="1 1 1 1"/>
      </material>
    </visual>
    <collision>
      <origin xyz="0 0 0" rpy="0 -0 0"/>
      <geometry>
        <mesh filename="package://ergoCub/meshes/simmechanics/sim_ecub_1-1_r_lower_leg.stl" scale="0.001 0.001 0.001"/>
      </geometry>
      <material name="">
        <color rgba="1 1 1 1"/>
      </material>
    </collision>
  </link>
  <joint name="r_ankle_pitch" type="revolute">
    <origin xyz="-5.936223734792634e-15 -0.03190000000000005 -0.3210000000000002" rpy="-2.9932805576414174e-15 -2.0242047360524565e-14 8.880636788937802e-17"/>
    <axis xyz="-3.505264366441263e-17 1 -1.331317022347139e-16"/>
    <parent link="r_lower_leg"/>
    <child link="r_ankle_1"/>
    <limit lower="-0.7853981633974483" upper="0.7853981633974483" effort="1e+9" velocity="1e+9"/>
    <dynamics damping="2" friction="0"/>
  </joint>
  <link name="r_ankle_1">
    <inertial>
      <mass value="0.3481278950635556"/>
      <origin xyz="-0.0013672309746954776 -6.60186959019704e-4 -0.014087432401547305" rpy="0 -0 0"/>
      <inertia ixx="2.473401259521522e-4" ixy="8.99187320178455e-6" ixz="-1.033697569192024e-5" iyy="5.75349339563699e-4" iyz="5.5239266965789845e-5" izz="4.6267603893513845e-4"/>
    </inertial>
    <visual>
      <origin xyz="0 0 0" rpy="0 -0 0"/>
      <geometry>
        <mesh filename="package://ergoCub/meshes/simmechanics/sim_ecub_1-1_r_ankle_1.stl" scale="0.001 0.001 0.001"/>
      </geometry>
      <material name="">
        <color rgba="0.6 0.6 0.6 1"/>
      </material>
    </visual>
    <collision>
      <origin xyz="0 0 0" rpy="0 -0 0"/>
      <geometry>
        <mesh filename="package://ergoCub/meshes/simmechanics/sim_ecub_1-1_r_ankle_1.stl" scale="0.001 0.001 0.001"/>
      </geometry>
      <material name="">
        <color rgba="0.6 0.6 0.6 1"/>
      </material>
    </collision>
  </link>
  <joint name="r_ankle_roll" type="revolute">
    <origin xyz="-0.052750000000001546 0.018200000000000008 -0.0349999999999977" rpy="-1.0176053241861382e-24 3.8838282931741325e-14 -9.278622199115707e-23"/>
    <axis xyz="-1 -1.628246671334752e-16 2.560295622560413e-15"/>
    <parent link="r_ankle_1"/>
    <child link="r_ankle_2"/>
    <limit lower="-0.4363323129985824" upper="0.4363323129985824" effort="1e+9" velocity="1e+9"/>
    <dynamics damping="2" friction="0"/>
  </joint>
  <link name="r_ankle_2">
    <inertial>
      <mass value="1.5418216247038539"/>
      <origin xyz="0.04052646811695935 -8.642493098851012e-5 -0.023871143533700234" rpy="0 -0 0"/>
      <inertia ixx="0.002144088293229702" ixy="2.3071453411493782e-5" ixz="0.0013223759105869606" iyy="0.009438348902378931" iyz="-3.077717707147486e-5" izz="0.009024460701602049"/>
    </inertial>
    <visual>
      <origin xyz="0 0 0" rpy="0 -0 0"/>
      <geometry>
        <mesh filename="package://ergoCub/meshes/simmechanics/sim_ecub_1-1_r_ankle_2.stl" scale="0.001 0.001 0.001"/>
      </geometry>
      <material name="">
        <color rgba="1 1 1 1"/>
      </material>
    </visual>
    <collision>
      <origin xyz="0 0 0" rpy="0 -0 0"/>
      <geometry>
        <mesh filename="package://ergoCub/meshes/simmechanics/sim_ecub_1-1_r_ankle_2.stl" scale="0.001 0.001 0.001"/>
      </geometry>
      <material name="">
        <color rgba="1 1 1 1"/>
      </material>
    </collision>
  </link>
  <joint name="r_foot_front_ft_sensor" type="fixed">
    <origin xyz="0.13525000000000004 0 -0.04789999999999994" rpy="2.66139136471374e-17 -9.20811369242055e-17 -1.4551888385804406e-15"/>
    <parent link="r_ankle_2"/>
    <child link="r_foot_front"/>
  </joint>
  <link name="r_foot_front">
    <inertial>
      <mass value="0.22110467939552797"/>
      <origin xyz="5.879202911245884e-4 -3.747924692820703e-9 -0.02000061661590058" rpy="0 -0 0"/>
      <inertia ixx="1.912506447891574e-4" ixy="2.357895453228089e-19" ixz="-3.4706466956949253e-9" iyy="2.6091266876367765e-4" iyz="5.375663344600725e-18" izz="4.500881026346283e-4"/>
    </inertial>
    <visual>
      <origin xyz="0 0 0" rpy="0 -0 0"/>
      <geometry>
        <mesh filename="package://ergoCub/meshes/simmechanics/sim_ecub_1-1_r_foot_front.stl" scale="0.001 0.001 0.001"/>
      </geometry>
      <material name="">
        <color rgba="1 0.51 0 1"/>
      </material>
    </visual>
    <collision>
      <origin xyz="0 0 -0.0193" rpy="0 -0 0"/>
      <geometry>
        <box size="0.117 0.1 0.006"/>
      </geometry>
    </collision>
  </link>
  <joint name="r_foot_rear_ft_sensor" type="fixed">
    <origin xyz="0.016 0 -0.04789999999999983" rpy="2.661391364712478e-17 -9.208113692419957e-17 -1.566211141042955e-15"/>
    <parent link="r_ankle_2"/>
    <child link="r_foot_rear"/>
  </joint>
  <link name="r_foot_rear">
    <inertial>
      <mass value="0.22110467939552797"/>
      <origin xyz="5.879202911244878e-4 -3.747924665065128e-9 -0.020000616615901023" rpy="0 -0 0"/>
      <inertia ixx="1.9125064478893547e-4" ixy="2.3192252624427304e-19" ixz="-3.4706466752314563e-9" iyy="2.609126687634939e-4" iyz="5.375663150730269e-18" izz="4.5008810263463014e-4"/>
    </inertial>
    <visual>
      <origin xyz="0 0 0" rpy="0 -0 0"/>
      <geometry>
        <mesh filename="package://ergoCub/meshes/simmechanics/sim_ecub_1-1_r_foot_rear.stl" scale="0.001 0.001 0.001"/>
      </geometry>
      <material name="">
        <color rgba="1 0.51 0 1"/>
      </material>
    </visual>
    <collision>
      <origin xyz="0 0 -0.0193" rpy="0 -0 0"/>
      <geometry>
        <box size="0.117 0.1 0.006"/>
      </geometry>
    </collision>
  </link>
  <joint name="l_hip_roll" type="revolute">
    <origin xyz="-0.04725000000000078 0.033100000000000004 -0.009000000000000119" rpy="7.584245024416732e-16 1.5745686587446743e-30 1.1102230246251548e-16"/>
    <axis xyz="1 -6.123233995736708e-17 6.3201403498236e-16"/>
    <parent link="l_hip_1"/>
    <child link="l_hip_2"/>
    <limit lower="-0.2792526803190927" upper="1.9024088846738192" effort="1e+9" velocity="1e+9"/>
    <dynamics damping="2" friction="0"/>
  </joint>
  <link name="l_hip_2">
    <inertial>
      <mass value="1.8338392164825101"/>
      <origin xyz="-0.004125697068299468 3.917475804632309e-5 -0.03750964603556273" rpy="0 -0 0"/>
      <inertia ixx="0.003159514595905926" ixy="-1.6542815235215681e-6" ixz="9.977368607484037e-4" iyy="0.005488243677251951" iyz="-2.1904093887368695e-6" izz="0.0033984945726571185"/>
    </inertial>
    <visual>
      <origin xyz="0 0 0" rpy="0 -0 0"/>
      <geometry>
        <mesh filename="package://ergoCub/meshes/simmechanics/sim_ecub_1-1_l_hip_2.stl" scale="0.001 0.001 0.001"/>
      </geometry>
      <material name="">
        <color rgba="0.6 0.6 0.6 1"/>
      </material>
    </visual>
    <collision>
      <origin xyz="0 0 0" rpy="0 -0 0"/>
      <geometry>
        <mesh filename="package://ergoCub/meshes/simmechanics/sim_ecub_1-1_l_hip_2.stl" scale="0.001 0.001 0.001"/>
      </geometry>
      <material name="">
        <color rgba="0.6 0.6 0.6 1"/>
      </material>
    </collision>
  </link>
  <joint name="l_leg_ft_sensor" type="fixed">
    <origin xyz="0.03669999999999985 -1.3877787807814457e-17 -0.08970000000000003" rpy="-1.1075796462727634e-15 -2.3847605106274887e-30 2.775557561562846e-16"/>
    <parent link="l_hip_2"/>
    <child link="l_hip_3"/>
  </joint>
  <link name="l_hip_3">
    <inertial>
      <mass value="2.147524084050246"/>
      <origin xyz="0.005176125839593024 -0.01282881302682233 -0.05174852447453404" rpy="0 -0 0"/>
      <inertia ixx="0.007242161971060034" ixy="-3.321392954197042e-5" ixz="2.505985505401264e-5" iyy="0.008197962692605146" iyz="1.2474874840596051e-4" izz="0.005727458772759987"/>
    </inertial>
    <visual>
      <origin xyz="0 0 0" rpy="0 -0 0"/>
      <geometry>
        <mesh filename="package://ergoCub/meshes/simmechanics/sim_ecub_1-1_l_hip_3.stl" scale="0.001 0.001 0.001"/>
      </geometry>
      <material name="">
        <color rgba="1 1 1 1"/>
      </material>
    </visual>
    <collision>
      <origin xyz="0 0 0" rpy="0 -0 0"/>
      <geometry>
        <mesh filename="package://ergoCub/meshes/simmechanics/sim_ecub_1-1_l_hip_3.stl" scale="0.001 0.001 0.001"/>
      </geometry>
      <material name="">
        <color rgba="1 1 1 1"/>
      </material>
    </collision>
  </link>
  <joint name="l_hip_yaw" type="revolute">
    <origin xyz="-8.448103328007051e-16 -0.014999999999999944 -0.07269999999999993" rpy="3.011883887564833e-16 1.143142903721238e-14 -2.2204460492502608e-16"/>
    <axis xyz="-8.622588011769357e-16 1.593666547307703e-16 1"/>
    <parent link="l_hip_3"/>
    <child link="l_upper_leg"/>
    <limit lower="-1.3788101090755203" upper="1.3788101090755203" effort="1e+9" velocity="1e+9"/>
    <dynamics damping="2" friction="0"/>
  </joint>
  <link name="l_upper_leg">
    <inertial>
      <mass value="2.784923431765453"/>
      <origin xyz="0.008503494694160183 0.014484874736048647 -0.12674659802303312" rpy="0 -0 0"/>
      <inertia ixx="0.011852293952284196" ixy="-4.907145319317264e-5" ixz="5.393933817879138e-4" iyy="0.012109807149567942" iyz="3.9208918647670385e-4" izz="0.002253627916731084"/>
    </inertial>
    <visual>
      <origin xyz="0 0 0" rpy="0 -0 0"/>
      <geometry>
        <mesh filename="package://ergoCub/meshes/simmechanics/sim_ecub_1-1_l_upper_leg.stl" scale="0.001 0.001 0.001"/>
      </geometry>
      <material name="">
        <color rgba="0.6 0.6 0.6 1"/>
      </material>
    </visual>
    <collision>
      <origin xyz="0 0 0" rpy="0 -0 0"/>
      <geometry>
        <mesh filename="package://ergoCub/meshes/simmechanics/sim_ecub_1-1_l_upper_leg.stl" scale="0.001 0.001 0.001"/>
      </geometry>
      <material name="">
        <color rgba="0.6 0.6 0.6 1"/>
      </material>
    </collision>
  </link>
  <joint name="l_knee" type="revolute">
    <origin xyz="0.010600000000000822 -0.007900000000000185 -0.17969999999999958" rpy="1.970486418692682e-16 -1.1419428146632273e-14 2.8602839935211434e-15"/>
    <axis xyz="-2.608937546411318e-16 -1 5.166588955193111e-17"/>
    <parent link="l_upper_leg"/>
    <child link="l_lower_leg"/>
    <limit lower="-1.8151424220741028" upper="0.10471975511965978" effort="1e+9" velocity="1e+9"/>
    <dynamics damping="2" friction="0"/>
  </joint>
  <link name="l_lower_leg">
    <inertial>
      <mass value="3.767581145212888"/>
      <origin xyz="0.0014201768088090358 0.006186333743956739 -0.21383298861124922" rpy="0 -0 0"/>
      <inertia ixx="0.04647110900067475" ixy="-2.1189289797886653e-5" ixz="-8.110710215722959e-4" iyy="0.04776726641499918" iyz="0.0018123762001582078" izz="0.004840491251955261"/>
    </inertial>
    <visual>
      <origin xyz="0 0 0" rpy="0 -0 0"/>
      <geometry>
        <mesh filename="package://ergoCub/meshes/simmechanics/sim_ecub_1-1_l_lower_leg.stl" scale="0.001 0.001 0.001"/>
      </geometry>
      <material name="">
        <color rgba="1 1 1 1"/>
      </material>
    </visual>
    <collision>
      <origin xyz="0 0 0" rpy="0 -0 0"/>
      <geometry>
        <mesh filename="package://ergoCub/meshes/simmechanics/sim_ecub_1-1_l_lower_leg.stl" scale="0.001 0.001 0.001"/>
      </geometry>
      <material name="">
        <color rgba="1 1 1 1"/>
      </material>
    </collision>
  </link>
  <joint name="l_ankle_pitch" type="revolute">
    <origin xyz="-4.468647674116255e-15 0.03189999999999981 -0.3209999999999995" rpy="-1.9704864186927032e-16 -8.673617379880112e-19 -1.8683953730959558e-16"/>
    <axis xyz="-2.389602037081462e-16 1 1.4538275231733847e-16"/>
    <parent link="l_lower_leg"/>
    <child link="l_ankle_1"/>
    <limit lower="-0.7853981633974483" upper="0.7853981633974483" effort="1e+9" velocity="1e+9"/>
    <dynamics damping="2" friction="0"/>
  </joint>
  <link name="l_ankle_1">
    <inertial>
      <mass value="0.3481278951519182"/>
      <origin xyz="-0.0013852125067176195 6.601869600093568e-4 -0.014087432474324535" rpy="0 -0 0"/>
      <inertia ixx="2.473401268224257e-4" ixy="-8.882076128769303e-6" ixz="-7.868443555728613e-6" iyy="5.753321096553087e-4" iyz="-5.523926679103168e-5" izz="4.6265880787367867e-4"/>
    </inertial>
    <visual>
      <origin xyz="0 0 0" rpy="0 -0 0"/>
      <geometry>
        <mesh filename="package://ergoCub/meshes/simmechanics/sim_ecub_1-1_l_ankle_1.stl" scale="0.001 0.001 0.001"/>
      </geometry>
      <material name="">
        <color rgba="0.6 0.6 0.6 1"/>
      </material>
    </visual>
    <collision>
      <origin xyz="0 0 0" rpy="0 -0 0"/>
      <geometry>
        <mesh filename="package://ergoCub/meshes/simmechanics/sim_ecub_1-1_l_ankle_1.stl" scale="0.001 0.001 0.001"/>
      </geometry>
      <material name="">
        <color rgba="0.6 0.6 0.6 1"/>
      </material>
    </collision>
  </link>
  <joint name="l_ankle_roll" type="revolute">
    <origin xyz="-0.052750000000000324 -0.01819999999999991 -0.03499999999999959" rpy="3.340196646750626e-19 1.1217589357404033e-14 -2.3665827156630354e-30"/>
    <axis xyz="1 -4.05028482201375e-16 -1.2496691978128869e-15"/>
    <parent link="l_ankle_1"/>
    <child link="l_ankle_2"/>
    <limit lower="-0.4363323129985824" upper="0.4363323129985824" effort="1e+9" velocity="1e+9"/>
    <dynamics damping="2" friction="0"/>
  </joint>
  <link name="l_ankle_2">
    <inertial>
      <mass value="1.5418216247038539"/>
      <origin xyz="0.0405224005088543 -9.790751646740482e-5 -0.02387114353368558" rpy="0 -0 0"/>
      <inertia ixx="0.00213706133623208" ixy="1.9973294407387216e-5" ixz="0.0013251325687512008" iyy="0.00943819778520643" iyz="-1.5070602593015444e-5" izz="0.00901728262743037"/>
    </inertial>
    <visual>
      <origin xyz="0 0 0" rpy="0 -0 0"/>
      <geometry>
        <mesh filename="package://ergoCub/meshes/simmechanics/sim_ecub_1-1_l_ankle_2.stl" scale="0.001 0.001 0.001"/>
      </geometry>
      <material name="">
        <color rgba="1 1 1 1"/>
      </material>
    </visual>
    <collision>
      <origin xyz="0 0 0" rpy="0 -0 0"/>
      <geometry>
        <mesh filename="package://ergoCub/meshes/simmechanics/sim_ecub_1-1_l_ankle_2.stl" scale="0.001 0.001 0.001"/>
      </geometry>
      <material name="">
        <color rgba="1 1 1 1"/>
      </material>
    </collision>
  </link>
  <joint name="l_foot_front_ft_sensor" type="fixed">
    <origin xyz="0.13524999999999998 -5.551115123125783e-17 -0.047899999999999165" rpy="-8.751425667295598e-31 1.9428902930939912e-16 -9.788946385468152e-16"/>
    <parent link="l_ankle_2"/>
    <child link="l_foot_front"/>
  </joint>
  <link name="l_foot_front">
    <inertial>
      <mass value="0.22110467939552797"/>
      <origin xyz="5.879202911245329e-4 -3.747924692820703e-9 -0.02000061661590158" rpy="0 -0 0"/>
      <inertia ixx="1.9125064478898706e-4" ixy="2.0351856158593786e-19" ixz="-3.470646686211968e-9" iyy="2.6091266876353844e-4" iyz="9.784057075164868e-21" izz="4.5008810263460987e-4"/>
    </inertial>
    <visual>
      <origin xyz="0 0 0" rpy="0 -0 0"/>
      <geometry>
        <mesh filename="package://ergoCub/meshes/simmechanics/sim_ecub_1-1_l_foot_front.stl" scale="0.001 0.001 0.001"/>
      </geometry>
      <material name="">
        <color rgba="1 0.51 0 1"/>
      </material>
    </visual>
    <collision>
      <origin xyz="0 0 -0.0193" rpy="0 -0 0"/>
      <geometry>
        <box size="0.117 0.1 0.006"/>
      </geometry>
    </collision>
  </link>
  <joint name="l_foot_rear_ft_sensor" type="fixed">
    <origin xyz="0.015999999999999986 -4.163336342344337e-17 -0.04789999999999994" rpy="-1.0970096963229695e-30 1.942890293093975e-16 2.0306083615826833e-17"/>
    <parent link="l_ankle_2"/>
    <child link="l_foot_rear"/>
  </joint>
  <link name="l_foot_rear">
    <inertial>
      <mass value="0.22110467939552797"/>
      <origin xyz="5.879202911244826e-4 -3.7479246789429155e-9 -0.020000616615901134" rpy="0 -0 0"/>
      <inertia ixx="1.912506447889398e-4" ixy="2.0351856158593786e-19" ixz="-3.470646677571385e-9" iyy="2.6091266876349345e-4" iyz="9.784057075164868e-21" izz="4.50088102634634e-4"/>
    </inertial>
    <visual>
      <origin xyz="0 0 0" rpy="0 -0 0"/>
      <geometry>
        <mesh filename="package://ergoCub/meshes/simmechanics/sim_ecub_1-1_l_foot_rear.stl" scale="0.001 0.001 0.001"/>
      </geometry>
      <material name="">
        <color rgba="1 0.51 0 1"/>
      </material>
    </visual>
    <collision>
      <origin xyz="0 0 -0.0193" rpy="0 -0 0"/>
      <geometry>
        <box size="0.117 0.1 0.006"/>
      </geometry>
    </collision>
  </link>
  <link name="head_imu_0"/>
  <joint name="head_imu_0_fixed_joint" type="fixed">
    <origin xyz="-0.004299999999999899 -0.005500000000001061 0.03823450000000106" rpy="-3.141592653589788 -9.688477917552238e-15 1.5707963267948986"/>
    <parent link="head"/>
    <child link="head_imu_0"/>
  </joint>
  <link name="realsense_imu_0"/>
  <joint name="realsense_imu_0_fixed_joint" type="fixed">
    <origin xyz="0.007515481871156526 0.010000000000000002 1.7352099479506222e-8" rpy="-1.5707963267948966 3.7596758519972983e-16 -1.5707963267948966"/>
    <parent link="realsense"/>
    <child link="realsense_imu_0"/>
  </joint>
  <link name="l_arm_ft"/>
  <joint name="l_arm_ft_fixed_joint" type="fixed">
    <origin xyz="-0.004349999999999996 -2.7755575615628914e-17 -0.054300000000000015" rpy="3.141592653589793 2.498001805406602e-16 -1.5707963267948952"/>
    <parent link="l_shoulder_2"/>
    <child link="l_arm_ft"/>
  </joint>
  <link name="l_foot_front_ft"/>
  <joint name="l_foot_front_ft_fixed_joint" type="fixed">
    <origin xyz="0.13525 -4.163336342344337e-17 -0.047899999999999054" rpy="-4.259189482954547e-17 -7.513330770412076e-17 -2.0943951023931966"/>
    <parent link="l_ankle_2"/>
    <child link="l_foot_front_ft"/>
  </joint>
  <link name="l_foot_rear_ft"/>
  <joint name="l_foot_rear_ft_fixed_joint" type="fixed">
    <origin xyz="0.015999999999999993 -2.7755575615628914e-17 -0.04789999999999983" rpy="-4.259189482954531e-17 -7.513330770412153e-17 -2.0943951023931957"/>
    <parent link="l_ankle_2"/>
    <child link="l_foot_rear_ft"/>
  </joint>
  <link name="l_leg_ft"/>
  <joint name="l_leg_ft_fixed_joint" type="fixed">
    <origin xyz="0.03669999999999986 -1.3877787807814457e-17 -0.08969999999999997" rpy="-3.1415926535897927 -1.4675346083959194e-15 2.617993877991494"/>
    <parent link="l_hip_2"/>
    <child link="l_leg_ft"/>
  </joint>
  <link name="r_arm_ft"/>
  <joint name="r_arm_ft_fixed_joint" type="fixed">
    <origin xyz="-0.006849999999999986 -2.7755575615628914e-17 -0.05429999999999999" rpy="3.141592653589793 1.6653345369377348e-16 1.5707963267948981"/>
    <parent link="r_shoulder_2"/>
    <child link="r_arm_ft"/>
  </joint>
  <link name="r_foot_front_ft"/>
  <joint name="r_foot_front_ft_fixed_joint" type="fixed">
    <origin xyz="0.13525 1.3877787807814457e-17 -0.04789999999999983" rpy="-4.2591894829555776e-17 -7.513330770412949e-17 -2.094395102393197"/>
    <parent link="r_ankle_2"/>
    <child link="r_foot_front_ft"/>
  </joint>
  <link name="r_foot_rear_ft"/>
  <joint name="r_foot_rear_ft_fixed_joint" type="fixed">
    <origin xyz="0.016 1.3877787807814457e-17 -0.04789999999999994" rpy="-4.2591894829543154e-17 -7.513330770412949e-17 -2.0943951023931966"/>
    <parent link="r_ankle_2"/>
    <child link="r_foot_rear_ft"/>
  </joint>
  <link name="r_leg_ft"/>
  <joint name="r_leg_ft_fixed_joint" type="fixed">
    <origin xyz="0.03669999999999999 0 -0.08969999999999997" rpy="-3.1415926535897927 -8.654368135774127e-16 -2.6179938779914935"/>
    <parent link="r_hip_2"/>
    <child link="r_leg_ft"/>
  </joint>
  <link name="realsense_depth_frame"/>
  <joint name="realsense_depth_frame_fixed_joint" type="fixed">
    <origin xyz="0.007515481871156526 0.010000000000000002 1.7352099479506222e-8" rpy="-1.5707963267948966 3.7596758519972983e-16 -1.5707963267948966"/>
    <parent link="realsense"/>
    <child link="realsense_depth_frame"/>
  </joint>
  <link name="imu_frame"/>
  <joint name="imu_frame_fixed_joint" type="fixed">
    <origin xyz="-0.004299999999999899 -0.005500000000001061 0.03823450000000106" rpy="-3.141592653589788 -9.688477917552238e-15 1.5707963267948986"/>
    <parent link="head"/>
    <child link="imu_frame"/>
  </joint>
  <link name="realsense_rgb_frame"/>
  <joint name="realsense_rgb_frame_fixed_joint" type="fixed">
    <origin xyz="0.007515481871156526 -0.011499999999999996 1.7352099701550827e-8" rpy="-1.5707963267948966 3.7596758519972983e-16 -1.5707963267948966"/>
    <parent link="realsense"/>
    <child link="realsense_rgb_frame"/>
  </joint>
  <link name="head_laser_frame"/>
  <joint name="head_laser_frame_fixed_joint" type="fixed">
    <origin xyz="5.000000000061726e-5 -1.938549701738834e-15 0.13480249990363524" rpy="9.721954681893984e-15 5.33156930061495e-15 3.167605067133685e-15"/>
    <parent link="head"/>
    <child link="head_laser_frame"/>
  </joint>
  <link name="l_hand_index_skin_0"/>
  <joint name="l_hand_index_skin_0_fixed_joint" type="fixed">
    <origin xyz="-1.3877787807814457e-17 -0.002433918058236534 -0.03140545777888892" rpy="-5.286130912234566e-16 1.2225055986691187 -1.570796326794897"/>
    <parent link="l_hand_index_3"/>
    <child link="l_hand_index_skin_0"/>
  </joint>
  <link name="l_hand_index_skin_1"/>
  <joint name="l_hand_index_skin_1_fixed_joint" type="fixed">
    <origin xyz="0.0032999999999999974 -0.0031311476143919548 -0.033280418005286916" rpy="-5.049308804587452e-16 1.2200949024613605 -1.570796326794897"/>
    <parent link="l_hand_index_3"/>
    <child link="l_hand_index_skin_1"/>
  </joint>
  <link name="l_hand_index_skin_10"/>
  <joint name="l_hand_index_skin_10_fixed_joint" type="fixed">
    <origin xyz="-0.003300000000000025 -0.004081940988398508 -0.03776668459795801" rpy="-3.1415926535897913 1.5049109712528748 1.5707963267948997"/>
    <parent link="l_hand_index_3"/>
    <child link="l_hand_index_skin_10"/>
  </joint>
  <link name="l_hand_index_skin_11"/>
  <joint name="l_hand_index_skin_11_fixed_joint" type="fixed">
    <origin xyz="-0.0033000000000000113 -0.0031311476143919548 -0.033280418005286916" rpy="-5.049308804587451e-16 1.2200949024613599 -1.570796326794897"/>
    <parent link="l_hand_index_3"/>
    <child link="l_hand_index_skin_11"/>
  </joint>
  <link name="l_hand_index_skin_2"/>
  <joint name="l_hand_index_skin_2_fixed_joint" type="fixed">
    <origin xyz="-6.938893903907228e-18 -0.003758241653579991 -0.035192049408458936" rpy="-6.620570360759466e-16 1.3056813328515076 -1.5707963267948972"/>
    <parent link="l_hand_index_3"/>
    <child link="l_hand_index_skin_2"/>
  </joint>
  <link name="l_hand_index_skin_3"/>
  <joint name="l_hand_index_skin_3_fixed_joint" type="fixed">
    <origin xyz="0.0032999999999999974 -0.004081940988398425 -0.03776668459795801" rpy="-3.1415926535897913 1.5049109712528748 1.5707963267948997"/>
    <parent link="l_hand_index_3"/>
    <child link="l_hand_index_skin_3"/>
  </joint>
  <link name="l_hand_index_skin_4"/>
  <joint name="l_hand_index_skin_4_fixed_joint" type="fixed">
    <origin xyz="0.005929525942276338 -0.001192320688661208 -0.03799999999999998" rpy="3.1415926535897922 1.2994442229713599 2.7771555423255903"/>
    <parent link="l_hand_index_3"/>
    <child link="l_hand_index_skin_4"/>
  </joint>
  <link name="l_hand_index_skin_5"/>
  <joint name="l_hand_index_skin_5_fixed_joint" type="fixed">
    <origin xyz="1.3877787807814457e-17 -0.0034840921633512434 -0.03982136611863335" rpy="-3.1415926535897927 1.088751329798359 1.5707963267948972"/>
    <parent link="l_hand_index_3"/>
    <child link="l_hand_index_skin_5"/>
  </joint>
  <link name="l_hand_index_skin_6"/>
  <joint name="l_hand_index_skin_6_fixed_joint" type="fixed">
    <origin xyz="0.0032999999999999696 -0.001828801718873424 -0.04176963440415199" rpy="3.141592653589793 0.7788155893137823 2.5320677565812"/>
    <parent link="l_hand_index_3"/>
    <child link="l_hand_index_skin_6"/>
  </joint>
  <link name="l_hand_index_skin_7"/>
  <joint name="l_hand_index_skin_7_fixed_joint" type="fixed">
    <origin xyz="-6.938893903907228e-18 -2.9018466437888413e-4 -0.043259640911881" rpy="-3.141592653589793 0.6209480183022732 1.571212482632116"/>
    <parent link="l_hand_index_3"/>
    <child link="l_hand_index_skin_7"/>
  </joint>
  <link name="l_hand_index_skin_8"/>
  <joint name="l_hand_index_skin_8_fixed_joint" type="fixed">
    <origin xyz="-0.003300000000000025 -0.0018288017188733685 -0.041769634404151934" rpy="-3.1415926535897927 0.7788155893137829 0.6095248970085935"/>
    <parent link="l_hand_index_3"/>
    <child link="l_hand_index_skin_8"/>
  </joint>
  <link name="l_hand_index_skin_9"/>
  <joint name="l_hand_index_skin_9_fixed_joint" type="fixed">
    <origin xyz="-0.005929525942276387 -0.001192320688661208 -0.03799999999999998" rpy="-3.141592653589792 1.2994442229713608 0.36443711126420336"/>
    <parent link="l_hand_index_3"/>
    <child link="l_hand_index_skin_9"/>
  </joint>
  <link name="l_hand_middle_skin_0"/>
  <joint name="l_hand_middle_skin_0_fixed_joint" type="fixed">
    <origin xyz="0 -0.002433918058236506 -0.03140545777888887" rpy="1.626501819149097e-16 1.22250559866912 -1.5707963267948966"/>
    <parent link="l_hand_middle_2"/>
    <child link="l_hand_middle_skin_0"/>
  </joint>
  <link name="l_hand_middle_skin_1"/>
  <joint name="l_hand_middle_skin_1_fixed_joint" type="fixed">
    <origin xyz="0.0033000000000000043 -0.003131147614391927 -0.033280418005286805" rpy="1.615778817467984e-16 1.2200949024613614 -1.5707963267948966"/>
    <parent link="l_hand_middle_2"/>
    <child link="l_hand_middle_skin_1"/>
  </joint>
  <link name="l_hand_middle_skin_10"/>
  <joint name="l_hand_middle_skin_10_fixed_joint" type="fixed">
    <origin xyz="-0.003299999999999973 -0.004081940988398425 -0.037766684597957956" rpy="3.1415926535897922 1.5049109712528765 1.5707963267948972"/>
    <parent link="l_hand_middle_2"/>
    <child link="l_hand_middle_skin_10"/>
  </joint>
  <link name="l_hand_middle_skin_11"/>
  <joint name="l_hand_middle_skin_11_fixed_joint" type="fixed">
    <origin xyz="-0.003299999999999994 -0.0031311476143918715 -0.033280418005286805" rpy="1.615778817467984e-16 1.2200949024613614 -1.5707963267948966"/>
    <parent link="l_hand_middle_2"/>
    <child link="l_hand_middle_skin_11"/>
  </joint>
  <link name="l_hand_middle_skin_2"/>
  <joint name="l_hand_middle_skin_2_fixed_joint" type="fixed">
    <origin xyz="-6.938893903907228e-18 -0.0037582416535799634 -0.035192049408458936" rpy="2.118582515443029e-16 1.305681332851508 -1.5707963267948966"/>
    <parent link="l_hand_middle_2"/>
    <child link="l_hand_middle_skin_2"/>
  </joint>
  <link name="l_hand_middle_skin_3"/>
  <joint name="l_hand_middle_skin_3_fixed_joint" type="fixed">
    <origin xyz="0.0033000000000000113 -0.004081940988398369 -0.03776668459795801" rpy="3.1415926535897922 1.5049109712528765 1.5707963267948968"/>
    <parent link="l_hand_middle_2"/>
    <child link="l_hand_middle_skin_3"/>
  </joint>
  <link name="l_hand_middle_skin_4"/>
  <joint name="l_hand_middle_skin_4_fixed_joint" type="fixed">
    <origin xyz="0.005929525942276356 -0.0011923206886611804 -0.03799999999999998" rpy="3.1415926535897922 1.2994442229713614 2.7771555423255903"/>
    <parent link="l_hand_middle_2"/>
    <child link="l_hand_middle_skin_4"/>
  </joint>
  <link name="l_hand_middle_skin_5"/>
  <joint name="l_hand_middle_skin_5_fixed_joint" type="fixed">
    <origin xyz="1.0408340855860843e-17 -0.0034840921633511046 -0.03982136611863335" rpy="3.141592653589793 1.0887513297983595 1.570796326794897"/>
    <parent link="l_hand_middle_2"/>
    <child link="l_hand_middle_skin_5"/>
  </joint>
  <link name="l_hand_middle_skin_6"/>
  <joint name="l_hand_middle_skin_6_fixed_joint" type="fixed">
    <origin xyz="0.003300000000000008 -0.0018288017188733685 -0.04176963440415188" rpy="3.1415926535897927 0.7788155893137828 2.5320677565811995"/>
    <parent link="l_hand_middle_2"/>
    <child link="l_hand_middle_skin_6"/>
  </joint>
  <link name="l_hand_middle_skin_7"/>
  <joint name="l_hand_middle_skin_7_fixed_joint" type="fixed">
    <origin xyz="-3.469446951953614e-18 -2.9018466437885637e-4 -0.04325964091188095" rpy="3.141592653589793 0.6209480183022731 1.571212482632116"/>
    <parent link="l_hand_middle_2"/>
    <child link="l_hand_middle_skin_7"/>
  </joint>
  <link name="l_hand_middle_skin_8"/>
  <joint name="l_hand_middle_skin_8_fixed_joint" type="fixed">
    <origin xyz="-0.003299999999999994 -0.0018288017188733963 -0.041769634404151934" rpy="-3.141592653589793 0.7788155893137828 0.6095248970085932"/>
    <parent link="l_hand_middle_2"/>
    <child link="l_hand_middle_skin_8"/>
  </joint>
  <link name="l_hand_middle_skin_9"/>
  <joint name="l_hand_middle_skin_9_fixed_joint" type="fixed">
    <origin xyz="-0.0059295259422763695 -0.001192320688661208 -0.03799999999999998" rpy="-3.1415926535897922 1.2994442229713608 0.3644371112642029"/>
    <parent link="l_hand_middle_2"/>
    <child link="l_hand_middle_skin_9"/>
  </joint>
  <link name="l_hand_pinkie_skin_0"/>
  <joint name="l_hand_pinkie_skin_0_fixed_joint" type="fixed">
    <origin xyz="1.1364587082021704e-6 -0.0024339180633243807 -0.03140545776518122" rpy="4.4810406990145916e-5 1.222505598463966 -1.5707618523704918"/>
    <parent link="l_hand_pinkie_2"/>
    <child link="l_hand_pinkie_skin_0"/>
  </joint>
  <link name="l_hand_pinkie_skin_1"/>
  <joint name="l_hand_pinkie_skin_1_fixed_joint" type="fixed">
    <origin xyz="0.003301159802142385 -0.003131172849448638 -0.033280367523160825" rpy="4.451498643578038e-5 1.2200949022586114 -1.5707621667995164"/>
    <parent link="l_hand_pinkie_2"/>
    <child link="l_hand_pinkie_skin_1"/>
  </joint>
  <link name="l_hand_pinkie_skin_10"/>
  <joint name="l_hand_pinkie_skin_10_fixed_joint" type="fixed">
    <origin xyz="-0.003298778855785424 -0.004081915763448796 -0.037766735051979805" rpy="3.14136036390978 1.5049109693635563 1.5705568956520668"/>
    <parent link="l_hand_pinkie_2"/>
    <child link="l_hand_pinkie_skin_10"/>
  </joint>
  <link name="l_hand_pinkie_skin_11"/>
  <joint name="l_hand_pinkie_skin_11_fixed_joint" type="fixed">
    <origin xyz="-0.003298840196892895 -0.0031311223894700813 -0.033280468459722046" rpy="4.4514986435780384e-5 1.2200949022586114 -1.5707621667995162"/>
    <parent link="l_hand_pinkie_2"/>
    <child link="l_hand_pinkie_skin_11"/>
  </joint>
  <link name="l_hand_pinkie_skin_2"/>
  <joint name="l_hand_pinkie_skin_2_fixed_joint" type="fixed">
    <origin xyz="1.1842435866243894e-6 -0.0037582416586290635 -0.0351920493944633" rpy="5.8367315429754e-5 1.305681332537708 -1.570747644146057"/>
    <parent link="l_hand_pinkie_2"/>
    <child link="l_hand_pinkie_skin_2"/>
  </joint>
  <link name="l_hand_pinkie_skin_3"/>
  <joint name="l_hand_pinkie_skin_3_fixed_joint" type="fixed">
    <origin xyz="0.0033012211432498564 -0.00408196622342738 -0.03776663411541853" rpy="3.14136036390978 1.5049109693635563 1.5705568956520668"/>
    <parent link="l_hand_pinkie_2"/>
    <child link="l_hand_pinkie_skin_3"/>
  </joint>
  <link name="l_hand_pinkie_skin_4"/>
  <joint name="l_hand_pinkie_skin_4_fixed_joint" type="fixed">
    <origin xyz="0.005930772745783179 -0.0011923660276871306 -0.037999909302654955" rpy="3.141572315440389 1.2994585118923023 2.7771283028717044"/>
    <parent link="l_hand_pinkie_2"/>
    <child link="l_hand_pinkie_skin_4"/>
  </joint>
  <link name="l_hand_pinkie_skin_5"/>
  <joint name="l_hand_pinkie_skin_5_fixed_joint" type="fixed">
    <origin xyz="1.2571376604118834e-6 -0.003484092168408337 -0.03982136610406428" rpy="3.1415596646367674 1.0887513294579219 1.570759451523612"/>
    <parent link="l_hand_pinkie_2"/>
    <child link="l_hand_pinkie_skin_5"/>
  </joint>
  <link name="l_hand_pinkie_skin_6"/>
  <joint name="l_hand_pinkie_skin_6_fixed_joint" type="fixed">
    <origin xyz="0.0033012995883024976 -0.00182882695396816 -0.04176958392088087" rpy="3.1415803523625088 0.7788281285900823 2.532051470238895"/>
    <parent link="l_hand_pinkie_2"/>
    <child link="l_hand_pinkie_skin_6"/>
  </joint>
  <link name="l_hand_pinkie_skin_7"/>
  <joint name="l_hand_pinkie_skin_7_fixed_joint" type="fixed">
    <origin xyz="1.3341394995113054e-6 -2.901846695293475e-4 -0.04325964089653633" rpy="3.141573850067606 0.6209480244661378 1.571193897169884"/>
    <parent link="l_hand_pinkie_2"/>
    <child link="l_hand_pinkie_skin_7"/>
  </joint>
  <link name="l_hand_pinkie_skin_8"/>
  <joint name="l_hand_pinkie_skin_8_fixed_joint" type="fixed">
    <origin xyz="-0.003298700410732769 -0.0018287764939896034 -0.041769684857442146" rpy="3.1415803529363586 0.7788030498279591 0.6095086111791652"/>
    <parent link="l_hand_pinkie_2"/>
    <child link="l_hand_pinkie_skin_8"/>
  </joint>
  <link name="l_hand_pinkie_skin_9"/>
  <joint name="l_hand_pinkie_skin_9_fixed_joint" type="fixed">
    <origin xyz="-0.005928279137036092 -0.0011922753598834768 -0.0380000906680969" rpy="3.14157231834453 1.2994299338602708 0.36440987468608"/>
    <parent link="l_hand_pinkie_2"/>
    <child link="l_hand_pinkie_skin_9"/>
  </joint>
  <link name="l_hand_ring_skin_0"/>
  <joint name="l_hand_ring_skin_0_fixed_joint" type="fixed">
    <origin xyz="6.938893903907228e-18 -0.0024339180582365616 -0.03140545777888881" rpy="5.692756367021836e-16 1.222505598669119 -1.5707963267948966"/>
    <parent link="l_hand_ring_2"/>
    <child link="l_hand_ring_skin_0"/>
  </joint>
  <link name="l_hand_ring_skin_1"/>
  <joint name="l_hand_ring_skin_1_fixed_joint" type="fixed">
    <origin xyz="0.0033000000000000095 -0.0031311476143919548 -0.033280418005286805" rpy="5.655225861137946e-16 1.2200949024613605 -1.5707963267948966"/>
    <parent link="l_hand_ring_2"/>
    <child link="l_hand_ring_skin_1"/>
  </joint>
  <link name="l_hand_ring_skin_10"/>
  <joint name="l_hand_ring_skin_10_fixed_joint" type="fixed">
    <origin xyz="-0.0033000000000000043 -0.004081940988398369 -0.037766684597957956" rpy="3.141592653589791 1.5049109712528765 1.5707963267948966"/>
    <parent link="l_hand_ring_2"/>
    <child link="l_hand_ring_skin_10"/>
  </joint>
  <link name="l_hand_ring_skin_11"/>
  <joint name="l_hand_ring_skin_11_fixed_joint" type="fixed">
    <origin xyz="-0.0032999999999999887 -0.003131147614391927 -0.03328041800528686" rpy="5.655225861137945e-16 1.2200949024613605 -1.5707963267948966"/>
    <parent link="l_hand_ring_2"/>
    <child link="l_hand_ring_skin_11"/>
  </joint>
  <link name="l_hand_ring_skin_2"/>
  <joint name="l_hand_ring_skin_2_fixed_joint" type="fixed">
    <origin xyz="-5.204170427930421e-18 -0.003758241653579991 -0.03519204940845888" rpy="6.885393175189842e-16 1.305681332851508 -1.5707963267948963"/>
    <parent link="l_hand_ring_2"/>
    <child link="l_hand_ring_skin_2"/>
  </joint>
  <link name="l_hand_ring_skin_3"/>
  <joint name="l_hand_ring_skin_3_fixed_joint" type="fixed">
    <origin xyz="0.003300000000000008 -0.004081940988398397 -0.037766684597957956" rpy="3.141592653589791 1.5049109712528765 1.5707963267948968"/>
    <parent link="l_hand_ring_2"/>
    <child link="l_hand_ring_skin_3"/>
  </joint>
  <link name="l_hand_ring_skin_4"/>
  <joint name="l_hand_ring_skin_4_fixed_joint" type="fixed">
    <origin xyz="0.005929525942276373 -0.0011923206886612359 -0.03799999999999992" rpy="3.141592653589792 1.299444222971361 2.7771555423255903"/>
    <parent link="l_hand_ring_2"/>
    <child link="l_hand_ring_skin_4"/>
  </joint>
  <link name="l_hand_ring_skin_5"/>
  <joint name="l_hand_ring_skin_5_fixed_joint" type="fixed">
    <origin xyz="6.938893903907228e-18 -0.00348409216335116 -0.03982136611863335" rpy="3.1415926535897927 1.088751329798359 1.5707963267948968"/>
    <parent link="l_hand_ring_2"/>
    <child link="l_hand_ring_skin_5"/>
  </joint>
  <link name="l_hand_ring_skin_6"/>
  <joint name="l_hand_ring_skin_6_fixed_joint" type="fixed">
    <origin xyz="0.003299999999999994 -0.0018288017188733685 -0.041769634404151934" rpy="3.1415926535897927 0.7788155893137829 2.5320677565811995"/>
    <parent link="l_hand_ring_2"/>
    <child link="l_hand_ring_skin_6"/>
  </joint>
  <link name="l_hand_ring_skin_7"/>
  <joint name="l_hand_ring_skin_7_fixed_joint" type="fixed">
    <origin xyz="1.9081958235744878e-17 -2.9018466437888413e-4 -0.04325964091188089" rpy="3.141592653589793 0.6209480183022733 1.5712124826321159"/>
    <parent link="l_hand_ring_2"/>
    <child link="l_hand_ring_skin_7"/>
  </joint>
  <link name="l_hand_ring_skin_8"/>
  <joint name="l_hand_ring_skin_8_fixed_joint" type="fixed">
    <origin xyz="-0.0032999999999999852 -0.0018288017188733685 -0.041769634404151934" rpy="-3.141592653589793 0.7788155893137823 0.6095248970085929"/>
    <parent link="l_hand_ring_2"/>
    <child link="l_hand_ring_skin_8"/>
  </joint>
  <link name="l_hand_ring_skin_9"/>
  <joint name="l_hand_ring_skin_9_fixed_joint" type="fixed">
    <origin xyz="-0.005929525942276356 -0.0011923206886611804 -0.03799999999999992" rpy="-3.1415926535897927 1.2994442229713594 0.3644371112642026"/>
    <parent link="l_hand_ring_2"/>
    <child link="l_hand_ring_skin_9"/>
  </joint>
  <link name="l_sole"/>
  <joint name="l_sole_fixed_joint" type="fixed">
    <origin xyz="0.059629999999999996 -1.3877787807814457e-17 -0.024299999999999877" rpy="0 1.5094274020956558e-31 0"/>
    <parent link="l_foot_rear"/>
    <child link="l_sole"/>
  </joint>
  <link name="l_hand_thumb_skin_0"/>
  <joint name="l_hand_thumb_skin_0_fixed_joint" type="fixed">
    <origin xyz="0.026405457778888957 -0.002433918058236617 5.551115123125783e-17" rpy="-1.5707963267948963 1.1102230246251565e-16 2.793301925464017"/>
    <parent link="l_hand_thumb_3"/>
    <child link="l_hand_thumb_skin_0"/>
  </joint>
  <link name="l_hand_thumb_skin_1"/>
  <joint name="l_hand_thumb_skin_1_fixed_joint" type="fixed">
    <origin xyz="0.028280418005286963 -0.0031311476143920103 0.0033000000000000806" rpy="-1.5707963267948961 -7.216449660063518e-16 -2.1816615649914324"/>
    <parent link="l_hand_thumb_3"/>
    <child link="l_hand_thumb_skin_1"/>
  </joint>
  <link name="l_hand_thumb_skin_10"/>
  <joint name="l_hand_thumb_skin_10_fixed_joint" type="fixed">
    <origin xyz="0.032766684597958076 -0.004081940988398508 -0.0032999999999999696" rpy="-1.5707963267948961 -5.551115123125783e-17 -3.075707298047779"/>
    <parent link="l_hand_thumb_3"/>
    <child link="l_hand_thumb_skin_10"/>
  </joint>
  <link name="l_hand_thumb_skin_11"/>
  <joint name="l_hand_thumb_skin_11_fixed_joint" type="fixed">
    <origin xyz="0.028280418005286963 -0.0031311476143919825 -0.0032999999999999696" rpy="-1.5707963267948961 -0 2.790891229256258"/>
    <parent link="l_hand_thumb_3"/>
    <child link="l_hand_thumb_skin_11"/>
  </joint>
  <link name="l_hand_thumb_skin_2"/>
  <joint name="l_hand_thumb_skin_2_fixed_joint" type="fixed">
    <origin xyz="0.030192049408458998 -0.0037582416535800467 0" rpy="-1.5707963267948961 -0 2.8764776596464054"/>
    <parent link="l_hand_thumb_3"/>
    <child link="l_hand_thumb_skin_2"/>
  </joint>
  <link name="l_hand_thumb_skin_3"/>
  <joint name="l_hand_thumb_skin_3_fixed_joint" type="fixed">
    <origin xyz="0.03276668459795809 -0.004081940988398536 0.003300000000000025" rpy="-1.5707963267948961 -7.216449660063518e-16 -2.1816615649914324"/>
    <parent link="l_hand_thumb_3"/>
    <child link="l_hand_thumb_skin_3"/>
  </joint>
  <link name="l_hand_thumb_skin_4"/>
  <joint name="l_hand_thumb_skin_4_fixed_joint" type="fixed">
    <origin xyz="0.03300000000000006 -0.0011923206886612636 0.005929525942276415" rpy="-3.1415926535897927 3.3306690738754696e-16 -3.1415926535883125"/>
    <parent link="l_hand_thumb_3"/>
    <child link="l_hand_thumb_skin_4"/>
  </joint>
  <link name="l_hand_thumb_skin_5"/>
  <joint name="l_hand_thumb_skin_5_fixed_joint" type="fixed">
    <origin xyz="0.034821366118633415 -0.0034840921633512156 8.326672684688674e-17" rpy="-1.5707963267948963 -2.220446049250313e-16 -2.6595476565932565"/>
    <parent link="l_hand_thumb_3"/>
    <child link="l_hand_thumb_skin_5"/>
  </joint>
  <link name="l_hand_thumb_skin_6"/>
  <joint name="l_hand_thumb_skin_6_fixed_joint" type="fixed">
    <origin xyz="0.036769634404151985 -0.0018288017188734795 0.003300000000000053" rpy="1.5707963267948968 -2.7755575615628914e-16 -2.399827721490722"/>
    <parent link="l_hand_thumb_3"/>
    <child link="l_hand_thumb_skin_6"/>
  </joint>
  <link name="l_hand_thumb_skin_7"/>
  <joint name="l_hand_thumb_skin_7_fixed_joint" type="fixed">
    <origin xyz="0.03825964091188104 -2.9018466437893964e-4 0" rpy="-1.570554204626614 -3.384708831138008e-4 -2.1917443860728234"/>
    <parent link="l_hand_thumb_3"/>
    <child link="l_hand_thumb_skin_7"/>
  </joint>
  <link name="l_hand_thumb_skin_8"/>
  <joint name="l_hand_thumb_skin_8_fixed_joint" type="fixed">
    <origin xyz="0.03676963440415201 -0.001828801718873424 -0.003299999999999942" rpy="-2.3592109405351698 0.6231239758157896 -2.6159603834403367"/>
    <parent link="l_hand_thumb_3"/>
    <child link="l_hand_thumb_skin_8"/>
  </joint>
  <link name="l_hand_thumb_skin_9"/>
  <joint name="l_hand_thumb_skin_9_fixed_joint" type="fixed">
    <origin xyz="0.03300000000000007 -0.0011923206886612636 -0.005929525942276359" rpy="-2.7645689049691455 0.25312544974719003 -3.042753660865159"/>
    <parent link="l_hand_thumb_3"/>
    <child link="l_hand_thumb_skin_9"/>
  </joint>
  <link name="r_hand_index_skin_0"/>
  <joint name="r_hand_index_skin_0_fixed_joint" type="fixed">
    <origin xyz="3.469446951953614e-17 -0.002433928982192385 -0.03140545693228214" rpy="2.8463754567347765e-16 1.2225052508328904 -1.5707963267948963"/>
    <parent link="r_hand_index_3"/>
    <child link="r_hand_index_skin_0"/>
  </joint>
  <link name="r_hand_index_skin_1"/>
  <joint name="r_hand_index_skin_1_fixed_joint" type="fixed">
    <origin xyz="0.0032999999999999974 -0.0031311591905268388 -0.033280416916158295" rpy="2.4236659217065896e-16 1.2200945546251307 -1.5707963267948963"/>
    <parent link="r_hand_index_3"/>
    <child link="r_hand_index_skin_1"/>
  </joint>
  <link name="r_hand_index_skin_10"/>
  <joint name="r_hand_index_skin_10_fixed_joint" type="fixed">
    <origin xyz="-0.0032999999999999696 -0.0040819541250192715 -0.03776668317810877" rpy="3.1415926535897922 1.5049113190891115 1.5707963267948952"/>
    <parent link="r_hand_index_3"/>
    <child link="r_hand_index_skin_10"/>
  </joint>
  <link name="r_hand_index_skin_11"/>
  <joint name="r_hand_index_skin_11_fixed_joint" type="fixed">
    <origin xyz="-0.0033000000000000043 -0.0031311591905267833 -0.033280416916158295" rpy="2.4236659217065896e-16 1.2200945546251307 -1.5707963267948963"/>
    <parent link="r_hand_index_3"/>
    <child link="r_hand_index_skin_11"/>
  </joint>
  <link name="r_hand_index_skin_2"/>
  <joint name="r_hand_index_skin_2_fixed_joint" type="fixed">
    <origin xyz="6.938893903907228e-18 -0.003758253894649538 -0.03519204810120419" rpy="3.177869701880381e-16 1.3056809850152777 -1.5707963267948961"/>
    <parent link="r_hand_index_3"/>
    <child link="r_hand_index_skin_2"/>
  </joint>
  <link name="r_hand_index_skin_3"/>
  <joint name="r_hand_index_skin_3_fixed_joint" type="fixed">
    <origin xyz="0.0033000000000000043 -0.004081954125019299 -0.03776668317810877" rpy="3.1415926535897922 1.5049113190891115 1.5707963267948952"/>
    <parent link="r_hand_index_3"/>
    <child link="r_hand_index_skin_3"/>
  </joint>
  <link name="r_hand_index_skin_4"/>
  <joint name="r_hand_index_skin_4_fixed_joint" type="fixed">
    <origin xyz="0.005929525942276359 -0.0011923339064377758 -0.03799999958526529" rpy="-3.1415914410880514 1.299444346948154 2.777156710461142"/>
    <parent link="r_hand_index_3"/>
    <child link="r_hand_index_skin_4"/>
  </joint>
  <link name="r_hand_index_skin_5"/>
  <joint name="r_hand_index_skin_5_fixed_joint" type="fixed">
    <origin xyz="6.938893903907228e-18 -0.003484106014664784 -0.03982136490673749" rpy="3.141592653589793 1.0887516776345891 1.5707963267948963"/>
    <parent link="r_hand_index_3"/>
    <child link="r_hand_index_skin_5"/>
  </joint>
  <link name="r_hand_index_skin_6"/>
  <joint name="r_hand_index_skin_6_fixed_joint" type="fixed">
    <origin xyz="0.0033000000000000043 -0.0018288162478654058 -0.04176963376802595" rpy="-3.141592252887904 0.7788157884423246 2.5320680380490246"/>
    <parent link="r_hand_index_3"/>
    <child link="r_hand_index_skin_6"/>
  </joint>
  <link name="r_hand_index_skin_7"/>
  <joint name="r_hand_index_skin_7_fixed_joint" type="fixed">
    <origin xyz="-2.7755575615628914e-17 -2.901997116492028e-4 -0.04325964081094158" rpy="-3.1415926534118155 0.6209483661384732 1.5712124827356644"/>
    <parent link="r_hand_index_3"/>
    <child link="r_hand_index_skin_7"/>
  </joint>
  <link name="r_hand_index_skin_8"/>
  <joint name="r_hand_index_skin_8_fixed_joint" type="fixed">
    <origin xyz="-0.0032999999999999835 -0.0018288162478654058 -0.04176963376802595" rpy="3.141592252887904 0.7788157884423246 0.6095246155407682"/>
    <parent link="r_hand_index_3"/>
    <child link="r_hand_index_skin_8"/>
  </joint>
  <link name="r_hand_index_skin_9"/>
  <joint name="r_hand_index_skin_9_fixed_joint" type="fixed">
    <origin xyz="-0.005929525942276352 -0.0011923339064378036 -0.03799999958526534" rpy="3.1415914410880514 1.2994443469481536 0.36443594312865046"/>
    <parent link="r_hand_index_3"/>
    <child link="r_hand_index_skin_9"/>
  </joint>
  <link name="r_hand_middle_skin_0"/>
  <joint name="r_hand_middle_skin_0_fixed_joint" type="fixed">
    <origin xyz="-2.0816681711721685e-17 -0.002433918058236506 -0.03140545777888887" rpy="-2.4397527287236403e-16 1.2225055986691193 -1.570796326794897"/>
    <parent link="r_hand_middle_2"/>
    <child link="r_hand_middle_skin_0"/>
  </joint>
  <link name="r_hand_middle_skin_1"/>
  <joint name="r_hand_middle_skin_1_fixed_joint" type="fixed">
    <origin xyz="0.003299999999999987 -0.0031311476143918993 -0.033280418005286916" rpy="-2.4236682262019717e-16 1.2200949024613599 -1.5707963267948972"/>
    <parent link="r_hand_middle_2"/>
    <child link="r_hand_middle_skin_1"/>
  </joint>
  <link name="r_hand_middle_skin_10"/>
  <joint name="r_hand_middle_skin_10_fixed_joint" type="fixed">
    <origin xyz="-0.0033000000000000113 -0.004081940988398369 -0.03776668459795801" rpy="-3.141592653589792 1.5049109712528799 1.5707963267948983"/>
    <parent link="r_hand_middle_2"/>
    <child link="r_hand_middle_skin_10"/>
  </joint>
  <link name="r_hand_middle_skin_11"/>
  <joint name="r_hand_middle_skin_11_fixed_joint" type="fixed">
    <origin xyz="-0.003300000000000025 -0.0031311476143918715 -0.03328041800528686" rpy="-2.4236682262019727e-16 1.2200949024613594 -1.5707963267948972"/>
    <parent link="r_hand_middle_2"/>
    <child link="r_hand_middle_skin_11"/>
  </joint>
  <link name="r_hand_middle_skin_2"/>
  <joint name="r_hand_middle_skin_2_fixed_joint" type="fixed">
    <origin xyz="-4.5102810375396984e-17 -0.003758241653579991 -0.035192049408458936" rpy="-3.177873773164535e-16 1.3056813328515076 -1.5707963267948972"/>
    <parent link="r_hand_middle_2"/>
    <child link="r_hand_middle_skin_2"/>
  </joint>
  <link name="r_hand_middle_skin_3"/>
  <joint name="r_hand_middle_skin_3_fixed_joint" type="fixed">
    <origin xyz="0.003299999999999942 -0.004081940988398425 -0.03776668459795801" rpy="-3.141592653589792 1.5049109712528799 1.5707963267948986"/>
    <parent link="r_hand_middle_2"/>
    <child link="r_hand_middle_skin_3"/>
  </joint>
  <link name="r_hand_middle_skin_4"/>
  <joint name="r_hand_middle_skin_4_fixed_joint" type="fixed">
    <origin xyz="0.005929525942276321 -0.001192320688661208 -0.03799999999999998" rpy="-3.141592653589792 1.2994442229713614 2.7771555423255876"/>
    <parent link="r_hand_middle_2"/>
    <child link="r_hand_middle_skin_4"/>
  </joint>
  <link name="r_hand_middle_skin_5"/>
  <joint name="r_hand_middle_skin_5_fixed_joint" type="fixed">
    <origin xyz="-2.42861286636753e-17 -0.0034840921633511046 -0.03982136611863335" rpy="-3.141592653589793 1.08875132979836 1.5707963267948968"/>
    <parent link="r_hand_middle_2"/>
    <child link="r_hand_middle_skin_5"/>
  </joint>
  <link name="r_hand_middle_skin_6"/>
  <joint name="r_hand_middle_skin_6_fixed_joint" type="fixed">
    <origin xyz="0.0032999999999999766 -0.0018288017188733963 -0.041769634404151934" rpy="-3.1415926535897927 0.778815589313783 2.532067756581199"/>
    <parent link="r_hand_middle_2"/>
    <child link="r_hand_middle_skin_6"/>
  </joint>
  <link name="r_hand_middle_skin_7"/>
  <joint name="r_hand_middle_skin_7_fixed_joint" type="fixed">
    <origin xyz="-5.204170427930421e-17 -2.9018466437888413e-4 -0.04325964091188089" rpy="-3.141592653589793 0.6209480183022739 1.5712124826321157"/>
    <parent link="r_hand_middle_2"/>
    <child link="r_hand_middle_skin_7"/>
  </joint>
  <link name="r_hand_middle_skin_8"/>
  <joint name="r_hand_middle_skin_8_fixed_joint" type="fixed">
    <origin xyz="-0.0033000000000000217 -0.0018288017188733408 -0.04176963440415199" rpy="3.1415926535897927 0.778815589313783 0.6095248970085936"/>
    <parent link="r_hand_middle_2"/>
    <child link="r_hand_middle_skin_8"/>
  </joint>
  <link name="r_hand_middle_skin_9"/>
  <joint name="r_hand_middle_skin_9_fixed_joint" type="fixed">
    <origin xyz="-0.00592952594227638 -0.0011923206886611526 -0.03799999999999998" rpy="3.141592653589792 1.299444222971361 0.3644371112642049"/>
    <parent link="r_hand_middle_2"/>
    <child link="r_hand_middle_skin_9"/>
  </joint>
  <link name="r_hand_pinkie_skin_0"/>
  <joint name="r_hand_pinkie_skin_0_fixed_joint" type="fixed">
    <origin xyz="0 -0.0024339180582408637 -0.03140545777888881" rpy="2.6430654561173425e-16 1.2225055986691284 -1.5707963267948966"/>
    <parent link="r_hand_pinkie_2"/>
    <child link="r_hand_pinkie_skin_0"/>
  </joint>
  <link name="r_hand_pinkie_skin_1"/>
  <joint name="r_hand_pinkie_skin_1_fixed_joint" type="fixed">
    <origin xyz="0.0033000000000000113 -0.0031311476143962846 -0.03328041800528675" rpy="1.8177511696515236e-16 1.2200949024613699 -1.5707963267948966"/>
    <parent link="r_hand_pinkie_2"/>
    <child link="r_hand_pinkie_skin_1"/>
  </joint>
  <link name="r_hand_pinkie_skin_10"/>
  <joint name="r_hand_pinkie_skin_10_fixed_joint" type="fixed">
    <origin xyz="-0.0032999999999999974 -0.004081940988402782 -0.037766684597957845" rpy="3.1415926535897922 1.5049109712528714 1.5707963267948974"/>
    <parent link="r_hand_pinkie_2"/>
    <child link="r_hand_pinkie_skin_10"/>
  </joint>
  <link name="r_hand_pinkie_skin_11"/>
  <joint name="r_hand_pinkie_skin_11_fixed_joint" type="fixed">
    <origin xyz="-0.0032999999999999904 -0.0031311476143963124 -0.033280418005286805" rpy="1.8177511696515236e-16 1.2200949024613699 -1.5707963267948966"/>
    <parent link="r_hand_pinkie_2"/>
    <child link="r_hand_pinkie_skin_11"/>
  </joint>
  <link name="r_hand_pinkie_skin_2"/>
  <joint name="r_hand_pinkie_skin_2_fixed_joint" type="fixed">
    <origin xyz="0 -0.003758241653584321 -0.03519204940845877" rpy="3.17787377316464e-16 1.3056813328515169 -1.5707963267948966"/>
    <parent link="r_hand_pinkie_2"/>
    <child link="r_hand_pinkie_skin_2"/>
  </joint>
  <link name="r_hand_pinkie_skin_3"/>
  <joint name="r_hand_pinkie_skin_3_fixed_joint" type="fixed">
    <origin xyz="0.003300000000000018 -0.004081940988402699 -0.0377666845979579" rpy="3.1415926535897922 1.5049109712528714 1.5707963267948977"/>
    <parent link="r_hand_pinkie_2"/>
    <child link="r_hand_pinkie_skin_3"/>
  </joint>
  <link name="r_hand_pinkie_skin_4"/>
  <joint name="r_hand_pinkie_skin_4_fixed_joint" type="fixed">
    <origin xyz="0.005929525942276366 -0.0011923206886655102 -0.03799999999999981" rpy="3.1415926535897625 1.2994442229713585 2.777155542325558"/>
    <parent link="r_hand_pinkie_2"/>
    <child link="r_hand_pinkie_skin_4"/>
  </joint>
  <link name="r_hand_pinkie_skin_5"/>
  <joint name="r_hand_pinkie_skin_5_fixed_joint" type="fixed">
    <origin xyz="1.3877787807814457e-17 -0.00348409216335549 -0.03982136611863324" rpy="3.141592653589793 1.0887513297983513 1.5707963267948968"/>
    <parent link="r_hand_pinkie_2"/>
    <child link="r_hand_pinkie_skin_5"/>
  </joint>
  <link name="r_hand_pinkie_skin_6"/>
  <joint name="r_hand_pinkie_skin_6_fixed_joint" type="fixed">
    <origin xyz="0.0033000000000000043 -0.0018288017188776429 -0.04176963440415177" rpy="3.1415926535897833 0.778815589313778 2.532067756581192"/>
    <parent link="r_hand_pinkie_2"/>
    <child link="r_hand_pinkie_skin_6"/>
  </joint>
  <link name="r_hand_pinkie_skin_7"/>
  <joint name="r_hand_pinkie_skin_7_fixed_joint" type="fixed">
    <origin xyz="-6.938893903907228e-18 -2.901846643830752e-4 -0.04325964091188084" rpy="3.141592653589793 0.620948018302265 1.5712124826321159"/>
    <parent link="r_hand_pinkie_2"/>
    <child link="r_hand_pinkie_skin_7"/>
  </joint>
  <link name="r_hand_pinkie_skin_8"/>
  <joint name="r_hand_pinkie_skin_8_fixed_joint" type="fixed">
    <origin xyz="-0.0032999999999999904 -0.0018288017188776429 -0.04176963440415177" rpy="-3.1415926535897833 0.7788155893137778 0.6095248970086008"/>
    <parent link="r_hand_pinkie_2"/>
    <child link="r_hand_pinkie_skin_8"/>
  </joint>
  <link name="r_hand_pinkie_skin_9"/>
  <joint name="r_hand_pinkie_skin_9_fixed_joint" type="fixed">
    <origin xyz="-0.005929525942276352 -0.0011923206886654825 -0.03799999999999981" rpy="-3.141592653589763 1.299444222971359 0.3644371112642355"/>
    <parent link="r_hand_pinkie_2"/>
    <child link="r_hand_pinkie_skin_9"/>
  </joint>
  <link name="r_hand_ring_skin_0"/>
  <joint name="r_hand_ring_skin_0_fixed_joint" type="fixed">
    <origin xyz="3.469446951953614e-18 -0.0024339182743748355 -0.03140545776213821" rpy="1.4231890647798227e-16 1.222505591786931 -1.5707963267948966"/>
    <parent link="r_hand_ring_2"/>
    <child link="r_hand_ring_skin_0"/>
  </joint>
  <link name="r_hand_ring_skin_1"/>
  <joint name="r_hand_ring_skin_1_fixed_joint" type="fixed">
    <origin xyz="0.0032999999999999974 -0.0031311478434340456 -0.03328041798373782" rpy="1.4138064386867392e-16 1.2200948955791715 -1.5707963267948966"/>
    <parent link="r_hand_ring_2"/>
    <child link="r_hand_ring_skin_1"/>
  </joint>
  <link name="r_hand_ring_skin_10"/>
  <joint name="r_hand_ring_skin_10_fixed_joint" type="fixed">
    <origin xyz="-0.0033000000000000113 -0.004081941248315957 -0.03776668456986537" rpy="3.1415926535897927 1.5049109781350702 1.5707963267948977"/>
    <parent link="r_hand_ring_2"/>
    <child link="r_hand_ring_skin_10"/>
  </joint>
  <link name="r_hand_ring_skin_11"/>
  <joint name="r_hand_ring_skin_11_fixed_joint" type="fixed">
    <origin xyz="-0.0033000000000000026 -0.0031311478434340456 -0.033280417983737876" rpy="1.4138064386867392e-16 1.2200948955791715 -1.5707963267948966"/>
    <parent link="r_hand_ring_2"/>
    <child link="r_hand_ring_skin_11"/>
  </joint>
  <link name="r_hand_ring_skin_2"/>
  <joint name="r_hand_ring_skin_2_fixed_joint" type="fixed">
    <origin xyz="1.214306433183765e-17 -0.0037582418957782804 -0.035192049382594015" rpy="1.324114038587985e-16 1.305681325969319 -1.5707963267948966"/>
    <parent link="r_hand_ring_2"/>
    <child link="r_hand_ring_skin_2"/>
  </joint>
  <link name="r_hand_ring_skin_3"/>
  <joint name="r_hand_ring_skin_3_fixed_joint" type="fixed">
    <origin xyz="0.003299999999999987 -0.004081941248315901 -0.03776668456986537" rpy="3.1415926535897927 1.5049109781350702 1.5707963267948974"/>
    <parent link="r_hand_ring_2"/>
    <child link="r_hand_ring_skin_3"/>
  </joint>
  <link name="r_hand_ring_skin_4"/>
  <joint name="r_hand_ring_skin_4_fixed_joint" type="fixed">
    <origin xyz="0.005929525942276352 -0.0011923209501843446 -0.03799999999179421" rpy="-3.1415926295995895 1.2994442254243346 2.777155565437974"/>
    <parent link="r_hand_ring_2"/>
    <child link="r_hand_ring_skin_4"/>
  </joint>
  <link name="r_hand_ring_skin_5"/>
  <joint name="r_hand_ring_skin_5_fixed_joint" type="fixed">
    <origin xyz="-1.214306433183765e-17 -0.0034840924374092974 -0.03982136609465514" rpy="3.141592653589793 1.0887513366805477 1.570796326794897"/>
    <parent link="r_hand_ring_2"/>
    <child link="r_hand_ring_skin_5"/>
  </joint>
  <link name="r_hand_ring_skin_6"/>
  <joint name="r_hand_ring_skin_6_fixed_joint" type="fixed">
    <origin xyz="0.0032999999999999974 -0.0018288020063398913 -0.04176963439156578" rpy="-3.141592645661621 0.7788155932536848 2.53206776215024"/>
    <parent link="r_hand_ring_2"/>
    <child link="r_hand_ring_skin_6"/>
  </joint>
  <link name="r_hand_ring_skin_7"/>
  <joint name="r_hand_ring_skin_7_fixed_joint" type="fixed">
    <origin xyz="3.469446951953614e-18 -2.901849620998431e-4 -0.04325964090988388" rpy="-3.141592653586272 0.6209480251844615 1.5712124826341647"/>
    <parent link="r_hand_ring_2"/>
    <child link="r_hand_ring_skin_7"/>
  </joint>
  <link name="r_hand_ring_skin_8"/>
  <joint name="r_hand_ring_skin_8_fixed_joint" type="fixed">
    <origin xyz="-0.0032999999999999956 -0.0018288020063398913 -0.04176963439156589" rpy="3.141592645661621 0.7788155932536843 0.6095248914395535"/>
    <parent link="r_hand_ring_2"/>
    <child link="r_hand_ring_skin_8"/>
  </joint>
  <link name="r_hand_ring_skin_9"/>
  <joint name="r_hand_ring_skin_9_fixed_joint" type="fixed">
    <origin xyz="-0.0059295259422763695 -0.0011923209501843723 -0.03799999999179421" rpy="3.141592629599589 1.2994442254243332 0.36443708815181947"/>
    <parent link="r_hand_ring_2"/>
    <child link="r_hand_ring_skin_9"/>
  </joint>
  <link name="r_sole"/>
  <joint name="r_sole_fixed_joint" type="fixed">
    <origin xyz="0.05963 -1.3877787807814457e-17 -0.02429999999999999" rpy="0 3.1371750050201436e-30 0"/>
    <parent link="r_foot_rear"/>
    <child link="r_sole"/>
  </joint>
  <link name="r_hand_thumb_skin_0"/>
  <joint name="r_hand_thumb_skin_0_fixed_joint" type="fixed">
    <origin xyz="0.02640545777888894 -0.002433918058236617 0" rpy="-1.5707963267948961 2.220446049250313e-16 2.793301925464017"/>
    <parent link="r_hand_thumb_3"/>
    <child link="r_hand_thumb_skin_0"/>
  </joint>
  <link name="r_hand_thumb_skin_1"/>
  <joint name="r_hand_thumb_skin_1_fixed_joint" type="fixed">
    <origin xyz="0.028280418005286932 -0.0031311476143919825 0.003300000000000025" rpy="-1.570796326794896 -7.216449660063518e-16 -2.1816615649914324"/>
    <parent link="r_hand_thumb_3"/>
    <child link="r_hand_thumb_skin_1"/>
  </joint>
  <link name="r_hand_thumb_skin_10"/>
  <joint name="r_hand_thumb_skin_10_fixed_joint" type="fixed">
    <origin xyz="0.03276668459795807 -0.00408194098839848 -0.003300000000000025" rpy="-1.5707963267948961 5.551115123125783e-17 -3.075707298047779"/>
    <parent link="r_hand_thumb_3"/>
    <child link="r_hand_thumb_skin_10"/>
  </joint>
  <link name="r_hand_thumb_skin_11"/>
  <joint name="r_hand_thumb_skin_11_fixed_joint" type="fixed">
    <origin xyz="0.028280418005286953 -0.0031311476143919825 -0.0032999999999999974" rpy="-1.5707963267948961 1.6653345369377348e-16 2.790891229256258"/>
    <parent link="r_hand_thumb_3"/>
    <child link="r_hand_thumb_skin_11"/>
  </joint>
  <link name="r_hand_thumb_skin_2"/>
  <joint name="r_hand_thumb_skin_2_fixed_joint" type="fixed">
    <origin xyz="0.030192049408458994 -0.003758241653580019 0" rpy="-1.5707963267948961 2.7755575615628914e-16 2.8764776596464054"/>
    <parent link="r_hand_thumb_3"/>
    <child link="r_hand_thumb_skin_2"/>
  </joint>
  <link name="r_hand_thumb_skin_3"/>
  <joint name="r_hand_thumb_skin_3_fixed_joint" type="fixed">
    <origin xyz="0.03276668459795803 -0.004081940988398508 0.0032999999999999974" rpy="-1.570796326794896 -8.326672684688674e-16 -2.1816615649914324"/>
    <parent link="r_hand_thumb_3"/>
    <child link="r_hand_thumb_skin_3"/>
  </joint>
  <link name="r_hand_thumb_skin_4"/>
  <joint name="r_hand_thumb_skin_4_fixed_joint" type="fixed">
    <origin xyz="0.03300000000000006 -0.0011923206886612636 0.005929525942276415" rpy="-3.1415926535897927 2.220446049250313e-16 -3.1415926535883125"/>
    <parent link="r_hand_thumb_3"/>
    <child link="r_hand_thumb_skin_4"/>
  </joint>
  <link name="r_hand_thumb_skin_5"/>
  <joint name="r_hand_thumb_skin_5_fixed_joint" type="fixed">
    <origin xyz="0.03482136611863341 -0.0034840921633512434 0" rpy="-1.5707963267948961 -1.6653345369377348e-16 -2.659547656593256"/>
    <parent link="r_hand_thumb_3"/>
    <child link="r_hand_thumb_skin_5"/>
  </joint>
  <link name="r_hand_thumb_skin_6"/>
  <joint name="r_hand_thumb_skin_6_fixed_joint" type="fixed">
    <origin xyz="0.036769634404151964 -0.0018288017188734518 0.0032999999999999974" rpy="1.570796326794897 -2.220446049250313e-16 -2.399827721490722"/>
    <parent link="r_hand_thumb_3"/>
    <child link="r_hand_thumb_skin_6"/>
  </joint>
  <link name="r_hand_thumb_skin_7"/>
  <joint name="r_hand_thumb_skin_7_fixed_joint" type="fixed">
    <origin xyz="0.03825964091188099 -2.901846643789119e-4 0" rpy="-1.5705542046266139 -3.3847088311368976e-4 -2.191744386072823"/>
    <parent link="r_hand_thumb_3"/>
    <child link="r_hand_thumb_skin_7"/>
  </joint>
  <link name="r_hand_thumb_skin_8"/>
  <joint name="r_hand_thumb_skin_8_fixed_joint" type="fixed">
    <origin xyz="0.036769634404152 -0.0018288017188734518 -0.003300000000000025" rpy="-2.3592109405351698 0.6231239758157898 -2.6159603834403367"/>
    <parent link="r_hand_thumb_3"/>
    <child link="r_hand_thumb_skin_8"/>
  </joint>
  <link name="r_hand_thumb_skin_9"/>
  <joint name="r_hand_thumb_skin_9_fixed_joint" type="fixed">
    <origin xyz="0.03300000000000001 -0.0011923206886612636 -0.005929525942276359" rpy="-2.7645689049691455 0.25312544974719 -3.042753660865159"/>
    <parent link="r_hand_thumb_3"/>
    <child link="r_hand_thumb_skin_9"/>
  </joint>
  <link name="waist_imu_0"/>
  <joint name="waist_imu_0_fixed_joint" type="fixed">
    <origin xyz="0.0354497 0.00639688 0.060600" rpy="1.5708 0 -1.5708"/>
    <parent link="torso_1"/>
    <child link="waist_imu_0"/>
    <dynamics damping="0.1"/>
  </joint>
  <gazebo>
    <plugin name="ergocub_yarp_gazebo_plugin_IMU" filename="libgazebo_yarp_imu.so">
      <yarpConfigurationFile>model://ergoCub/conf/gazebo_ergocub_waist_inertial.ini</yarpConfigurationFile>
    </plugin>
  </gazebo>
  <gazebo reference="torso_1">
    <sensor name="waist_imu_0" type="imu">
      <always_on>1</always_on>
      <update_rate>100</update_rate>
      <pose>0.0354497 0.00639688 0.060600 1.5708 0 -1.5708</pose>
      <plugin name="ergocub_yarp_gazebo_plugin_IMU" filename="libgazebo_yarp_imu.so">
        <yarpConfigurationFile>model://ergoCub/conf/gazebo_ergocub_waist_inertial.ini</yarpConfigurationFile>
      </plugin>
    </sensor>
  </gazebo>
  <gazebo>
    <plugin name="gzyarp::Imu" filename="gz-sim-yarp-imu-system">
      <yarpConfigurationFile>model://ergoCub/conf/gazebo_ergocub_waist_inertial.ini</yarpConfigurationFile>
    </plugin>
  </gazebo>
  <sensor name="waist_imu_0" type="accelerometer">
    <parent link="torso_1"/>
    <origin rpy="1.5708 0 -1.5708" xyz="0.0354497 0.00639688 0.060600"/>
  </sensor>
  <link name="base_link"/>
  <joint name="base_link_fixed_joint" type="fixed">
    <origin xyz="0 0 0" rpy="0 -0 0"/>
    <axis xyz="0 0 0"/>
    <parent link="root_link"/>
    <child link="base_link"/>
  </joint>
  <gazebo reference="r_arm_ft_sensor">
    <preserveFixedJoint>true</preserveFixedJoint>
    <!-- For compatibility with SDFormat < 4.4 -->
    <disableFixedJointLumping>true</disableFixedJointLumping>
  </gazebo>
  <gazebo reference="l_arm_ft_sensor">
    <preserveFixedJoint>true</preserveFixedJoint>
    <!-- For compatibility with SDFormat < 4.4 -->
    <disableFixedJointLumping>true</disableFixedJointLumping>
  </gazebo>
  <gazebo>
    <plugin name="gzyarp::ForceTorque" filename="gz-sim-yarp-forcetorque-system">
      <yarpConfigurationFile>model://ergoCub/conf/FT/gazebo_ergocub_left_arm_ft.ini</yarpConfigurationFile>
    </plugin>
  </gazebo>
  <gazebo>
    <plugin name="gzyarp::ForceTorque" filename="gz-sim-yarp-forcetorque-system">
      <yarpConfigurationFile>model://ergoCub/conf/FT/gazebo_ergocub_right_arm_ft.ini</yarpConfigurationFile>
    </plugin>
  </gazebo>
  <gazebo>
    <plugin name="controlboard_torso" filename="libgazebo_yarp_controlboard.so">
      <yarpConfigurationFile>model://ergoCub/conf/gazebo_ergocub_torso.ini</yarpConfigurationFile>
    </plugin>
  </gazebo>
  <gazebo>
    <plugin name="gzyarp::ControlBoard" filename="gz-sim-yarp-controlboard-system">
      <yarpConfigurationFile>model://ergoCub/conf/gazebo_ergocub_torso.ini</yarpConfigurationFile>
    </plugin>
  </gazebo>
  <gazebo reference="torso_pitch">
    <implicitSpringDamper>1</implicitSpringDamper>
  </gazebo>
  <gazebo reference="torso_roll">
    <implicitSpringDamper>1</implicitSpringDamper>
  </gazebo>
  <gazebo reference="torso_yaw">
    <implicitSpringDamper>1</implicitSpringDamper>
  </gazebo>
  <gazebo reference="r_shoulder_pitch">
    <implicitSpringDamper>1</implicitSpringDamper>
  </gazebo>
  <gazebo reference="r_shoulder_roll">
    <implicitSpringDamper>1</implicitSpringDamper>
  </gazebo>
  <gazebo reference="r_shoulder_yaw">
    <implicitSpringDamper>1</implicitSpringDamper>
  </gazebo>
  <gazebo reference="l_shoulder_pitch">
    <implicitSpringDamper>1</implicitSpringDamper>
  </gazebo>
  <gazebo reference="l_shoulder_roll">
    <implicitSpringDamper>1</implicitSpringDamper>
  </gazebo>
  <gazebo reference="l_shoulder_yaw">
    <implicitSpringDamper>1</implicitSpringDamper>
  </gazebo>
  <gazebo reference="l_leg_ft_sensor">
    <preserveFixedJoint>true</preserveFixedJoint>
    <!-- For compatibility with SDFormat < 4.4 -->
    <disableFixedJointLumping>true</disableFixedJointLumping>
  </gazebo>
  <gazebo reference="l_foot_front_ft_sensor">
    <preserveFixedJoint>true</preserveFixedJoint>
    <!-- For compatibility with SDFormat < 4.4 -->
    <disableFixedJointLumping>true</disableFixedJointLumping>
  </gazebo>
  <gazebo reference="l_foot_rear_ft_sensor">
    <preserveFixedJoint>true</preserveFixedJoint>
    <!-- For compatibility with SDFormat < 4.4 -->
    <disableFixedJointLumping>true</disableFixedJointLumping>
  </gazebo>
  <gazebo reference="l_foot_front">
    <collision>
      <surface>
        <bounce>
          <restitution_coefficient>0</restitution_coefficient>
          <threshold>100000</threshold>
        </bounce>
      </surface>
    </collision>
    <maxContacts>4</maxContacts>
    <kp>18000000</kp>
    <kd>100</kd>
    <maxVel>100</maxVel>
    <minDepth>0.0001</minDepth>
    <mu1>1</mu1>
    <mu2>1</mu2>
    <fdir1>0 0 0</fdir1>
  </gazebo>
  <gazebo reference="l_foot_rear">
    <collision>
      <surface>
        <bounce>
          <restitution_coefficient>0</restitution_coefficient>
          <threshold>100000</threshold>
        </bounce>
      </surface>
    </collision>
    <maxContacts>4</maxContacts>
    <kp>18000000</kp>
    <kd>100</kd>
    <maxVel>100</maxVel>
    <minDepth>0.0001</minDepth>
    <mu1>1</mu1>
    <mu2>1</mu2>
    <fdir1>0 0 0</fdir1>
  </gazebo>
  <gazebo>
    <plugin name="gzyarp::ForceTorque" filename="gz-sim-yarp-forcetorque-system">
      <yarpConfigurationFile>model://ergoCub/conf/FT/gazebo_ergocub_left_leg_ft.ini</yarpConfigurationFile>
    </plugin>
  </gazebo>
  <gazebo>
    <plugin name="gzyarp::ForceTorque" filename="gz-sim-yarp-forcetorque-system">
      <yarpConfigurationFile>model://ergoCub/conf/FT/gazebo_ergocub_left_foot_front_ft.ini</yarpConfigurationFile>
    </plugin>
  </gazebo>
  <gazebo>
    <plugin name="gzyarp::ForceTorque" filename="gz-sim-yarp-forcetorque-system">
      <yarpConfigurationFile>model://ergoCub/conf/FT/gazebo_ergocub_left_foot_rear_ft.ini</yarpConfigurationFile>
    </plugin>
  </gazebo>
  <gazebo>
    <plugin name="gzyarp::Imu" filename="gz-sim-yarp-imu-system">
      <yarpConfigurationFile>model://ergoCub/conf/gazebo_ergocub_l_foot_front_ft_sensor_inertial.ini</yarpConfigurationFile>
    </plugin>
  </gazebo>
  <gazebo>
    <plugin name="gzyarp::Imu" filename="gz-sim-yarp-imu-system">
      <yarpConfigurationFile>model://ergoCub/conf/gazebo_ergocub_l_foot_rear_ft_sensor_inertial.ini</yarpConfigurationFile>
    </plugin>
  </gazebo>
  <gazebo>
    <plugin name="controlboard_left_leg" filename="libgazebo_yarp_controlboard.so">
      <yarpConfigurationFile>model://ergoCub/conf/gazebo_ergocub_left_leg.ini</yarpConfigurationFile>
    </plugin>
  </gazebo>
  <gazebo>
    <plugin name="gzyarp::ControlBoard" filename="gz-sim-yarp-controlboard-system">
      <yarpConfigurationFile>model://ergoCub/conf/gazebo_ergocub_left_leg.ini</yarpConfigurationFile>
    </plugin>
  </gazebo>
  <gazebo reference="l_hip_pitch">
    <implicitSpringDamper>1</implicitSpringDamper>
  </gazebo>
  <gazebo reference="l_hip_roll">
    <implicitSpringDamper>1</implicitSpringDamper>
  </gazebo>
  <gazebo reference="l_hip_yaw">
    <implicitSpringDamper>1</implicitSpringDamper>
  </gazebo>
  <gazebo reference="l_knee">
    <implicitSpringDamper>1</implicitSpringDamper>
  </gazebo>
  <gazebo reference="l_ankle_pitch">
    <implicitSpringDamper>1</implicitSpringDamper>
  </gazebo>
  <gazebo reference="l_ankle_roll">
    <implicitSpringDamper>1</implicitSpringDamper>
  </gazebo>
  <gazebo reference="r_leg_ft_sensor">
    <preserveFixedJoint>true</preserveFixedJoint>
    <!-- For compatibility with SDFormat < 4.4 -->
    <disableFixedJointLumping>true</disableFixedJointLumping>
  </gazebo>
  <gazebo reference="r_foot_front_ft_sensor">
    <preserveFixedJoint>true</preserveFixedJoint>
    <!-- For compatibility with SDFormat < 4.4 -->
    <disableFixedJointLumping>true</disableFixedJointLumping>
  </gazebo>
  <gazebo reference="r_foot_rear_ft_sensor">
    <preserveFixedJoint>true</preserveFixedJoint>
    <!-- For compatibility with SDFormat < 4.4 -->
    <disableFixedJointLumping>true</disableFixedJointLumping>
  </gazebo>
  <gazebo reference="r_foot_front">
    <collision>
      <surface>
        <bounce>
          <restitution_coefficient>0</restitution_coefficient>
          <threshold>100000</threshold>
        </bounce>
      </surface>
    </collision>
    <maxContacts>4</maxContacts>
    <kp>18000000</kp>
    <kd>100</kd>
    <maxVel>100</maxVel>
    <minDepth>0.0001</minDepth>
    <mu1>1</mu1>
    <mu2>1</mu2>
    <fdir1>0 0 0</fdir1>
  </gazebo>
  <gazebo reference="r_foot_rear">
    <collision>
      <surface>
        <bounce>
          <restitution_coefficient>0</restitution_coefficient>
          <threshold>100000</threshold>
        </bounce>
      </surface>
    </collision>
    <maxContacts>4</maxContacts>
    <kp>18000000</kp>
    <kd>100</kd>
    <maxVel>100</maxVel>
    <minDepth>0.0001</minDepth>
    <mu1>1</mu1>
    <mu2>1</mu2>
    <fdir1>0 0 0</fdir1>
  </gazebo>
  <gazebo>
    <plugin name="gzyarp::ForceTorque" filename="gz-sim-yarp-forcetorque-system">
      <yarpConfigurationFile>model://ergoCub/conf/FT/gazebo_ergocub_right_leg_ft.ini</yarpConfigurationFile>
    </plugin>
  </gazebo>
  <gazebo>
    <plugin name="gzyarp::ForceTorque" filename="gz-sim-yarp-forcetorque-system">
      <yarpConfigurationFile>model://ergoCub/conf/FT/gazebo_ergocub_right_foot_front_ft.ini</yarpConfigurationFile>
    </plugin>
  </gazebo>
  <gazebo>
    <plugin name="gzyarp::ForceTorque" filename="gz-sim-yarp-forcetorque-system">
      <yarpConfigurationFile>model://ergoCub/conf/FT/gazebo_ergocub_right_foot_rear_ft.ini</yarpConfigurationFile>
    </plugin>
  </gazebo>
  <gazebo>
    <plugin name="gzyarp::Imu" filename="gz-sim-yarp-imu-system">
      <yarpConfigurationFile>model://ergoCub/conf/gazebo_ergocub_r_foot_front_ft_sensor_inertial.ini</yarpConfigurationFile>
    </plugin>
  </gazebo>
  <gazebo>
    <plugin name="gzyarp::Imu" filename="gz-sim-yarp-imu-system">
      <yarpConfigurationFile>model://ergoCub/conf/gazebo_ergocub_r_foot_rear_ft_sensor_inertial.ini</yarpConfigurationFile>
    </plugin>
  </gazebo>
  <gazebo>
    <plugin name="controlboard_right_leg" filename="libgazebo_yarp_controlboard.so">
      <yarpConfigurationFile>model://ergoCub/conf/gazebo_ergocub_right_leg.ini</yarpConfigurationFile>
    </plugin>
  </gazebo>
  <gazebo>
    <plugin name="gzyarp::ControlBoard" filename="gz-sim-yarp-controlboard-system">
      <yarpConfigurationFile>model://ergoCub/conf/gazebo_ergocub_right_leg.ini</yarpConfigurationFile>
    </plugin>
  </gazebo>
  <gazebo reference="r_hip_pitch">
    <implicitSpringDamper>1</implicitSpringDamper>
  </gazebo>
  <gazebo reference="r_hip_roll">
    <implicitSpringDamper>1</implicitSpringDamper>
  </gazebo>
  <gazebo reference="r_hip_yaw">
    <implicitSpringDamper>1</implicitSpringDamper>
  </gazebo>
  <gazebo reference="r_knee">
    <implicitSpringDamper>1</implicitSpringDamper>
  </gazebo>
  <gazebo reference="r_ankle_pitch">
    <implicitSpringDamper>1</implicitSpringDamper>
  </gazebo>
  <gazebo reference="r_ankle_roll">
    <implicitSpringDamper>1</implicitSpringDamper>
  </gazebo>
  <gazebo>
    <plugin name="gzyarp::Imu" filename="gz-sim-yarp-imu-system">
      <yarpConfigurationFile>model://ergoCub/conf/gazebo_ergocub_inertial.ini</yarpConfigurationFile>
    </plugin>
  </gazebo>
  <gazebo>
    <plugin name="gzyarp::Imu" filename="gz-sim-yarp-imu-system">
      <yarpConfigurationFile>model://ergoCub/conf/gazebo_ergocub_realsense_inertial.ini</yarpConfigurationFile>
    </plugin>
  </gazebo>
  <gazebo>
    <plugin name="gzyarp::Laser" filename="gz-sim-yarp-laser-system">
      <yarpConfigurationFile>model://ergoCub/conf/sensors/gazebo_ergocub_lidar.ini</yarpConfigurationFile>
    </plugin>
  </gazebo>
  <gazebo>
    <plugin name="controlboard_head" filename="libgazebo_yarp_controlboard.so">
      <yarpConfigurationFile>model://ergoCub/conf/gazebo_ergocub_head.ini</yarpConfigurationFile>
    </plugin>
  </gazebo>
  <gazebo>
    <plugin name="gzyarp::ControlBoard" filename="gz-sim-yarp-controlboard-system">
      <yarpConfigurationFile>model://ergoCub/conf/gazebo_ergocub_head.ini</yarpConfigurationFile>
    </plugin>
  </gazebo>
  <gazebo reference="neck_pitch">
    <implicitSpringDamper>1</implicitSpringDamper>
  </gazebo>
  <gazebo reference="neck_roll">
    <implicitSpringDamper>1</implicitSpringDamper>
  </gazebo>
  <gazebo reference="neck_yaw">
    <implicitSpringDamper>1</implicitSpringDamper>
  </gazebo>
  <gazebo>
    <plugin name="controlboard_left_arm_no_hand" filename="libgazebo_yarp_controlboard.so">
      <yarpConfigurationFile>model://ergoCub/conf/gazebo_ergocub_left_arm.ini</yarpConfigurationFile>
      <initialConfiguration>-0.52 0.52 0 0.785 0 0 0.0</initialConfiguration>
    </plugin>
  </gazebo>
  <gazebo>
    <plugin name="gzyarp::ControlBoard" filename="gz-sim-yarp-controlboard-system">
      <yarpConfigurationFile>model://ergoCub/conf/gazebo_ergocub_left_arm.ini</yarpConfigurationFile>
      <initialConfiguration>-0.52 0.52 0 0.785 0 0 0.0</initialConfiguration>
    </plugin>
  </gazebo>
  <gazebo>
    <plugin name="controlboard_left_hand" filename="libgazebo_yarp_controlboard.so">
      <yarpConfigurationFile>model://ergoCub/conf/gazebo_ergocub_left_hand_mk5_1.ini</yarpConfigurationFile>
    </plugin>
  </gazebo>
  <gazebo reference="l_shoulder_pitch">
    <implicitSpringDamper>1</implicitSpringDamper>
  </gazebo>
  <gazebo reference="l_shoulder_roll">
    <implicitSpringDamper>1</implicitSpringDamper>
  </gazebo>
  <gazebo reference="l_shoulder_yaw">
    <implicitSpringDamper>1</implicitSpringDamper>
  </gazebo>
  <gazebo reference="l_elbow">
    <implicitSpringDamper>1</implicitSpringDamper>
  </gazebo>
  <gazebo reference="l_wrist_roll">
    <implicitSpringDamper>1</implicitSpringDamper>
  </gazebo>
  <gazebo reference="l_wrist_pitch">
    <implicitSpringDamper>1</implicitSpringDamper>
  </gazebo>
  <gazebo reference="l_wrist_yaw">
    <implicitSpringDamper>1</implicitSpringDamper>
  </gazebo>
  <gazebo>
    <plugin name="controlboard_right_arm_no_hand" filename="libgazebo_yarp_controlboard.so">
      <yarpConfigurationFile>model://ergoCub/conf/gazebo_ergocub_right_arm.ini</yarpConfigurationFile>
      <initialConfiguration>-0.52 0.52 0 0.785 0 0 0.0</initialConfiguration>
    </plugin>
  </gazebo>
  <gazebo>
    <plugin name="gzyarp::ControlBoard" filename="gz-sim-yarp-controlboard-system">
      <yarpConfigurationFile>model://ergoCub/conf/gazebo_ergocub_right_arm.ini</yarpConfigurationFile>
      <initialConfiguration>-0.52 0.52 0 0.785 0 0 0.0</initialConfiguration>
    </plugin>
  </gazebo>
  <gazebo>
    <plugin name="controlboard_right_hand" filename="libgazebo_yarp_controlboard.so">
      <yarpConfigurationFile>model://ergoCub/conf/gazebo_ergocub_right_hand_mk5_1.ini</yarpConfigurationFile>
    </plugin>
  </gazebo>
  <gazebo reference="r_shoulder_pitch">
    <implicitSpringDamper>1</implicitSpringDamper>
  </gazebo>
  <gazebo reference="r_shoulder_roll">
    <implicitSpringDamper>1</implicitSpringDamper>
  </gazebo>
  <gazebo reference="r_shoulder_yaw">
    <implicitSpringDamper>1</implicitSpringDamper>
  </gazebo>
  <gazebo reference="r_elbow">
    <implicitSpringDamper>1</implicitSpringDamper>
  </gazebo>
  <gazebo reference="r_wrist_roll">
    <implicitSpringDamper>1</implicitSpringDamper>
  </gazebo>
  <gazebo reference="r_wrist_pitch">
    <implicitSpringDamper>1</implicitSpringDamper>
  </gazebo>
  <gazebo reference="r_wrist_yaw">
    <implicitSpringDamper>1</implicitSpringDamper>
  </gazebo>
  <gazebo>
    <plugin name="robotinterface" filename="libgazebo_yarp_robotinterface.so">
      <yarpRobotInterfaceConfigurationFile>model://ergoCub/conf/ergocub.xml</yarpRobotInterfaceConfigurationFile>
    </plugin>
  </gazebo>
  <gazebo>
    <plugin name="gzyarp::RobotInterface" filename="gz-sim-yarp-robotinterface-system">
      <yarpRobotInterfaceConfigurationFile>model://ergoCub/conf/ergocub_gz_sim.xml</yarpRobotInterfaceConfigurationFile>
    </plugin>
  </gazebo>
  <gazebo>
    <plugin filename="gz-sim-forcetorque-system" name="gz::sim::systems::ForceTorque"/>
  </gazebo>
  <gazebo>
    <plugin filename="gz-sim-imu-system" name="gz::sim::systems::Imu"/>
  </gazebo>
  <gazebo>
    <pose>0.000000 0.000000 0.800000 0.000000 0.000000 0.000000</pose>
  </gazebo>
  <gazebo reference="l_arm_ft_sensor">
    <sensor name="l_arm_ft" type="force_torque">
      <always_on>1</always_on>
      <update_rate>100</update_rate>
      <force_torque>
        <frame>sensor</frame>
        <measure_direction>child_to_parent</measure_direction>
      </force_torque>
      <pose>-3.46945e-18 0 0 3.14159 1.94289e-16 -1.5708 </pose>
      <plugin name="left_arm_ft_plugin" filename="libgazebo_yarp_forcetorque.so">
        <yarpConfigurationFile>model://ergoCub/conf/FT/gazebo_ergocub_left_arm_ft.ini</yarpConfigurationFile>
      </plugin>
    </sensor>
  </gazebo>
  <sensor name="l_arm_ft" type="force_torque">
    <parent joint="l_arm_ft_sensor"/>
    <force_torque>
      <frame>sensor</frame>
      <measure_direction>child_to_parent</measure_direction>
    </force_torque>
    <origin rpy="3.14159 1.94289e-16 -1.5708 " xyz="-3.46945e-18 0 0"/>
  </sensor>
  <gazebo reference="l_foot_front_ft_sensor">
    <sensor name="l_foot_front_ft" type="force_torque">
      <always_on>1</always_on>
      <update_rate>100</update_rate>
      <force_torque>
        <frame>sensor</frame>
        <measure_direction>parent_to_child</measure_direction>
      </force_torque>
      <pose>0 0 0 1.25667e-16 2.20112e-17 -2.0944 </pose>
      <plugin name="left_foot_front_ft_plugin" filename="libgazebo_yarp_forcetorque.so">
        <yarpConfigurationFile>model://ergoCub/conf/FT/gazebo_ergocub_left_foot_front_ft.ini</yarpConfigurationFile>
      </plugin>
    </sensor>
  </gazebo>
  <sensor name="l_foot_front_ft" type="force_torque">
    <parent joint="l_foot_front_ft_sensor"/>
    <force_torque>
      <frame>sensor</frame>
      <measure_direction>parent_to_child</measure_direction>
    </force_torque>
    <origin rpy="1.25667e-16 2.20112e-17 -2.0944 " xyz="0 0 0"/>
  </sensor>
  <gazebo reference="l_foot_rear_ft_sensor">
    <sensor name="l_foot_rear_ft" type="force_torque">
      <always_on>1</always_on>
      <update_rate>100</update_rate>
      <force_torque>
        <frame>sensor</frame>
        <measure_direction>parent_to_child</measure_direction>
      </force_torque>
      <pose>0 0 0 1.25667e-16 2.20112e-17 -2.0944 </pose>
      <plugin name="left_foot_rear_ft_plugin" filename="libgazebo_yarp_forcetorque.so">
        <yarpConfigurationFile>model://ergoCub/conf/FT/gazebo_ergocub_left_foot_rear_ft.ini</yarpConfigurationFile>
      </plugin>
    </sensor>
  </gazebo>
  <sensor name="l_foot_rear_ft" type="force_torque">
    <parent joint="l_foot_rear_ft_sensor"/>
    <force_torque>
      <frame>sensor</frame>
      <measure_direction>parent_to_child</measure_direction>
    </force_torque>
    <origin rpy="1.25667e-16 2.20112e-17 -2.0944 " xyz="0 0 0"/>
  </sensor>
  <gazebo reference="l_leg_ft_sensor">
    <sensor name="l_leg_ft" type="force_torque">
      <always_on>1</always_on>
      <update_rate>100</update_rate>
      <force_torque>
        <frame>sensor</frame>
        <measure_direction>child_to_parent</measure_direction>
      </force_torque>
      <pose>5.20417e-18 0 0 3.14159 -2.02132e-15 2.61799 </pose>
      <plugin name="left_leg_ft_plugin" filename="libgazebo_yarp_forcetorque.so">
        <yarpConfigurationFile>model://ergoCub/conf/FT/gazebo_ergocub_left_leg_ft.ini</yarpConfigurationFile>
      </plugin>
    </sensor>
  </gazebo>
  <sensor name="l_leg_ft" type="force_torque">
    <parent joint="l_leg_ft_sensor"/>
    <force_torque>
      <frame>sensor</frame>
      <measure_direction>child_to_parent</measure_direction>
    </force_torque>
    <origin rpy="3.14159 -2.02132e-15 2.61799 " xyz="5.20417e-18 0 0"/>
  </sensor>
  <gazebo reference="r_arm_ft_sensor">
    <sensor name="r_arm_ft" type="force_torque">
      <always_on>1</always_on>
      <update_rate>100</update_rate>
      <force_torque>
        <frame>sensor</frame>
        <measure_direction>child_to_parent</measure_direction>
      </force_torque>
      <pose>0 0 0 -3.14159 -2.77556e-17 1.5708 </pose>
      <plugin name="right_arm_ft_plugin" filename="libgazebo_yarp_forcetorque.so">
        <yarpConfigurationFile>model://ergoCub/conf/FT/gazebo_ergocub_right_arm_ft.ini</yarpConfigurationFile>
      </plugin>
    </sensor>
  </gazebo>
  <sensor name="r_arm_ft" type="force_torque">
    <parent joint="r_arm_ft_sensor"/>
    <force_torque>
      <frame>sensor</frame>
      <measure_direction>child_to_parent</measure_direction>
    </force_torque>
    <origin rpy="-3.14159 -2.77556e-17 1.5708 " xyz="0 0 0"/>
  </sensor>
  <gazebo reference="r_foot_front_ft_sensor">
    <sensor name="r_foot_front_ft" type="force_torque">
      <always_on>1</always_on>
      <update_rate>100</update_rate>
      <force_torque>
        <frame>sensor</frame>
        <measure_direction>parent_to_child</measure_direction>
      </force_torque>
      <pose>0 1.38778e-17 1.11022e-16 -1.0903e-16 -1.44222e-16 -2.0944 </pose>
      <plugin name="right_foot_front_ft_plugin" filename="libgazebo_yarp_forcetorque.so">
        <yarpConfigurationFile>model://ergoCub/conf/FT/gazebo_ergocub_right_foot_front_ft.ini</yarpConfigurationFile>
      </plugin>
    </sensor>
  </gazebo>
  <sensor name="r_foot_front_ft" type="force_torque">
    <parent joint="r_foot_front_ft_sensor"/>
    <force_torque>
      <frame>sensor</frame>
      <measure_direction>parent_to_child</measure_direction>
    </force_torque>
    <origin rpy="-1.0903e-16 -1.44222e-16 -2.0944 " xyz="0 1.38778e-17 1.11022e-16"/>
  </sensor>
  <gazebo reference="r_foot_rear_ft_sensor">
    <sensor name="r_foot_rear_ft" type="force_torque">
      <always_on>1</always_on>
      <update_rate>100</update_rate>
      <force_torque>
        <frame>sensor</frame>
        <measure_direction>parent_to_child</measure_direction>
      </force_torque>
      <pose>3.46945e-18 0 0 -1.0903e-16 -1.44222e-16 -2.0944 </pose>
      <plugin name="right_foot_rear_ft_plugin" filename="libgazebo_yarp_forcetorque.so">
        <yarpConfigurationFile>model://ergoCub/conf/FT/gazebo_ergocub_right_foot_rear_ft.ini</yarpConfigurationFile>
      </plugin>
    </sensor>
  </gazebo>
  <sensor name="r_foot_rear_ft" type="force_torque">
    <parent joint="r_foot_rear_ft_sensor"/>
    <force_torque>
      <frame>sensor</frame>
      <measure_direction>parent_to_child</measure_direction>
    </force_torque>
    <origin rpy="-1.0903e-16 -1.44222e-16 -2.0944 " xyz="3.46945e-18 0 0"/>
  </sensor>
  <gazebo reference="r_leg_ft_sensor">
    <sensor name="r_leg_ft" type="force_torque">
      <always_on>1</always_on>
      <update_rate>100</update_rate>
      <force_torque>
        <frame>sensor</frame>
        <measure_direction>child_to_parent</measure_direction>
      </force_torque>
      <pose>1.21431e-17 2.77556e-17 5.55112e-17 3.14159 2.98881e-16 -2.61799 </pose>
      <plugin name="right_leg_ft_plugin" filename="libgazebo_yarp_forcetorque.so">
        <yarpConfigurationFile>model://ergoCub/conf/FT/gazebo_ergocub_right_leg_ft.ini</yarpConfigurationFile>
      </plugin>
    </sensor>
  </gazebo>
  <sensor name="r_leg_ft" type="force_torque">
    <parent joint="r_leg_ft_sensor"/>
    <force_torque>
      <frame>sensor</frame>
      <measure_direction>child_to_parent</measure_direction>
    </force_torque>
    <origin rpy="3.14159 2.98881e-16 -2.61799 " xyz="1.21431e-17 2.77556e-17 5.55112e-17"/>
  </sensor>
  <gazebo reference="head">
    <sensor name="head_imu_0" type="imu">
      <always_on>1</always_on>
      <update_rate>100.000000</update_rate>
      <pose>-0.0043 -0.0055 0.0382345 -3.14159 -9.68848e-15 1.5708 </pose>
      <plugin name="ergocub_yarp_gazebo_plugin_IMU" filename="libgazebo_yarp_imu.so">
        <yarpConfigurationFile>model://ergoCub/conf/gazebo_ergocub_inertial.ini</yarpConfigurationFile>
      </plugin>
    </sensor>
  </gazebo>
  <sensor name="head_imu_0" type="accelerometer">
    <parent link="head"/>
    <origin rpy="-3.14159 -9.68848e-15 1.5708 " xyz="-0.0043 -0.0055 0.0382345"/>
  </sensor>
  <gazebo reference="realsense">
    <sensor name="realsense_head_depth" type="depth">
      <always_on>1</always_on>
      <update_rate>30.000000</update_rate>
      <pose>0.00751548 -0.0115 1.73521e-08 -1.5708 3.75968e-16 -1.5708 </pose>
      <camera name="intel_realsense_depth_camera">
        <pose>0 0 0 -1.57079 -1.57079 3.14159</pose>
        <horizontal_fov>1.2217</horizontal_fov>
        <distortion>
          <k1>0</k1>
          <k2>0</k2>
          <k3>0</k3>
          <p1>0</p1>
          <p2>0</p2>
          <center>319.5 239.5</center>
        </distortion>
        <image>
          <width>640</width>
          <height>480</height>
          <format>R8G8B8</format>
        </image>
        <clip>
          <near>0.175</near>
          <far>3000</far>
        </clip>
      </camera>
      <visualize>false</visualize>
      <plugin name="ergocub_yarp_gazebo_plugin_depthCamera" filename="libgazebo_yarp_depthCamera.so">
        <yarpConfigurationFile>model://ergoCub/conf/sensors/gazebo_ergocub_rgbd_camera.ini</yarpConfigurationFile>
      </plugin>
    </sensor>
  </gazebo>
  <sensor name="realsense_head_depth" type="depth">
    <parent link="realsense"/>
    <origin rpy="-1.5708 3.75968e-16 -1.5708 " xyz="0.00751548 -0.0115 1.73521e-08"/>
  </sensor>
  <gazebo reference="realsense">
    <sensor name="realsense_head_rgb" type="camera">
      <always_on>1</always_on>
      <update_rate>30.000000</update_rate>
      <pose>0.00751548 -0.0115 1.73521e-08 -1.5708 3.75968e-16 -1.5708 </pose>
      <camera name="intel_realsense_rgb_camera">
        <pose>0 0 0 -1.57079 -1.57079 3.14159</pose>
        <horizontal_fov>1.2217</horizontal_fov>
        <distortion>
          <k1>0</k1>
          <k2>0</k2>
          <k3>0</k3>
          <p1>0</p1>
          <p2>0</p2>
          <center>319.5 239.5</center>
        </distortion>
        <image>
          <width>640</width>
          <height>480</height>
          <format>R8G8B8</format>
        </image>
        <clip>
          <near>0.02</near>
          <far>3000</far>
        </clip>
      </camera>
      <visualize>false</visualize>
      <plugin name="ergocub_yarp_gazebo_plugin_camera" filename="libgazebo_yarp_camera.so">
        <yarpConfigurationFile>model://ergoCub/conf/gazebo_ergocub_rgb_camera.ini</yarpConfigurationFile>
      </plugin>
    </sensor>
  </gazebo>
  <sensor name="realsense_head_rgb" type="camera">
    <parent link="realsense"/>
    <origin rpy="-1.5708 3.75968e-16 -1.5708 " xyz="0.00751548 -0.0115 1.73521e-08"/>
  </sensor>
  <gazebo reference="realsense">
    <sensor name="realsense_imu_0" type="imu">
      <always_on>1</always_on>
      <update_rate>100.000000</update_rate>
      <pose>0.00751548 0.01 1.73521e-08 -1.5708 3.75968e-16 -1.5708 </pose>
      <plugin name="ergocub_yarp_gazebo_plugin_IMU" filename="libgazebo_yarp_imu.so">
        <yarpConfigurationFile>model://ergoCub/conf/gazebo_ergocub_realsense_inertial.ini</yarpConfigurationFile>
      </plugin>
    </sensor>
  </gazebo>
  <sensor name="realsense_imu_0" type="accelerometer">
    <parent link="realsense"/>
    <origin rpy="-1.5708 3.75968e-16 -1.5708 " xyz="0.00751548 0.01 1.73521e-08"/>
  </sensor>
  <gazebo reference="head">
    <sensor name="lasersensor_head" type="ray">
      <always_on>1</always_on>
      <update_rate>100.000000</update_rate>
      <pose>5e-05 -1.93855e-15 0.134802 9.72195e-15 5.33157e-15 3.16761e-15 </pose>
      <always_on>1</always_on>
      <visualize>true</visualize>
      <update_rate>40</update_rate>
      <ray>
        <scan>
          <horizontal>
            <samples>360</samples>
            <resolution>2</resolution>
            <min_angle>0</min_angle>
            <max_angle>6.28</max_angle>
          </horizontal>
        </scan>
        <range>
          <min>0.04</min>
          <max>5</max>
          <resolution>0.01</resolution>
        </range>
        <noise>
          <type>gaussian</type>
          <mean>0</mean>
          <stddev>0.005</stddev>
        </noise>
      </ray>
      <plugin name="ergocub_yarp_gazebo_plugin_laser" filename="libgazebo_yarp_lasersensor.so">
        <yarpConfigurationFile>model://ergoCub/conf/sensors/gazebo_ergocub_lidar.ini</yarpConfigurationFile>
      </plugin>
    </sensor>
  </gazebo>
  <sensor name="lasersensor_head" type="ray">
    <parent link="head"/>
    <origin rpy="9.72195e-15 5.33157e-15 3.16761e-15 " xyz="5e-05 -1.93855e-15 0.134802"/>
  </sensor>
  <gazebo reference="l_foot_front">
    <sensor name="l_foot_front_ft_imu" type="imu">
      <always_on>1</always_on>
      <update_rate>100.000000</update_rate>
      <pose>0 0 0 1.25667e-16 2.20112e-17 -2.0944 </pose>
      <plugin name="ergocub_yarp_gazebo_plugin_IMU" filename="libgazebo_yarp_imu.so">
        <yarpConfigurationFile>model://ergoCub/conf/gazebo_ergocub_l_foot_front_ft_sensor_inertial.ini</yarpConfigurationFile>
      </plugin>
    </sensor>
  </gazebo>
  <sensor name="l_foot_front_ft_imu" type="accelerometer">
    <parent link="l_foot_front"/>
    <origin rpy="1.25667e-16 2.20112e-17 -2.0944 " xyz="0 0 0"/>
  </sensor>
  <gazebo reference="l_foot_rear">
    <sensor name="l_foot_rear_ft_imu" type="imu">
      <always_on>1</always_on>
      <update_rate>100.000000</update_rate>
      <pose>0 0 0 1.25667e-16 2.20112e-17 -2.0944 </pose>
      <plugin name="ergocub_yarp_gazebo_plugin_IMU" filename="libgazebo_yarp_imu.so">
        <yarpConfigurationFile>model://ergoCub/conf/gazebo_ergocub_l_foot_rear_ft_sensor_inertial.ini</yarpConfigurationFile>
      </plugin>
    </sensor>
  </gazebo>
  <sensor name="l_foot_rear_ft_imu" type="accelerometer">
    <parent link="l_foot_rear"/>
    <origin rpy="1.25667e-16 2.20112e-17 -2.0944 " xyz="0 0 0"/>
  </sensor>
  <gazebo reference="r_foot_front">
    <sensor name="r_foot_front_ft_imu" type="imu">
      <always_on>1</always_on>
      <update_rate>100.000000</update_rate>
      <pose>0 1.38778e-17 1.11022e-16 -1.0903e-16 -1.44222e-16 -2.0944 </pose>
      <plugin name="ergocub_yarp_gazebo_plugin_IMU" filename="libgazebo_yarp_imu.so">
        <yarpConfigurationFile>model://ergoCub/conf/gazebo_ergocub_r_foot_front_ft_sensor_inertial.ini</yarpConfigurationFile>
      </plugin>
    </sensor>
  </gazebo>
  <sensor name="r_foot_front_ft_imu" type="accelerometer">
    <parent link="r_foot_front"/>
    <origin rpy="-1.0903e-16 -1.44222e-16 -2.0944 " xyz="0 1.38778e-17 1.11022e-16"/>
  </sensor>
  <gazebo reference="r_foot_rear">
    <sensor name="r_foot_rear_ft_imu" type="imu">
      <always_on>1</always_on>
      <update_rate>100.000000</update_rate>
      <pose>3.46945e-18 0 0 -1.0903e-16 -1.44222e-16 -2.0944 </pose>
      <plugin name="ergocub_yarp_gazebo_plugin_IMU" filename="libgazebo_yarp_imu.so">
        <yarpConfigurationFile>model://ergoCub/conf/gazebo_ergocub_r_foot_rear_ft_sensor_inertial.ini</yarpConfigurationFile>
      </plugin>
    </sensor>
  </gazebo>
  <sensor name="r_foot_rear_ft_imu" type="accelerometer">
    <parent link="r_foot_rear"/>
    <origin rpy="-1.0903e-16 -1.44222e-16 -2.0944 " xyz="3.46945e-18 0 0"/>
  </sensor>
  <gazebo reference="l_shoulder_3">
    <sensor name="l_arm_ft_imu" type="imu">
      <always_on>1</always_on>
      <update_rate>100.000000</update_rate>
      <pose>-3.46945e-18 0 0 3.14159 1.94289e-16 -1.5708 </pose>
      <plugin name="ergocub_yarp_gazebo_plugin_IMU" filename="libgazebo_yarp_imu.so">
        <yarpConfigurationFile>model://ergoCub/conf/gazebo_ergocub_l_arm_ft_sensor_inertial.ini</yarpConfigurationFile>
      </plugin>
    </sensor>
  </gazebo>
  <sensor name="l_arm_ft_imu" type="accelerometer">
    <parent link="l_shoulder_3"/>
    <origin rpy="3.14159 1.94289e-16 -1.5708 " xyz="-3.46945e-18 0 0"/>
  </sensor>
  <gazebo reference="r_shoulder_3">
    <sensor name="r_arm_ft_imu" type="imu">
      <always_on>1</always_on>
      <update_rate>100.000000</update_rate>
      <pose>0 0 0 -3.14159 -2.77556e-17 1.5708 </pose>
      <plugin name="ergocub_yarp_gazebo_plugin_IMU" filename="libgazebo_yarp_imu.so">
        <yarpConfigurationFile>model://ergoCub/conf/gazebo_ergocub_r_arm_ft_sensor_inertial.ini</yarpConfigurationFile>
      </plugin>
    </sensor>
  </gazebo>
  <sensor name="r_arm_ft_imu" type="accelerometer">
    <parent link="r_shoulder_3"/>
    <origin rpy="-3.14159 -2.77556e-17 1.5708 " xyz="0 0 0"/>
  </sensor>
  <gazebo reference="l_hip_3">
    <sensor name="l_leg_ft_imu" type="imu">
      <always_on>1</always_on>
      <update_rate>100.000000</update_rate>
      <pose>5.20417e-18 0 0 3.14159 -2.02132e-15 2.61799 </pose>
      <plugin name="ergocub_yarp_gazebo_plugin_IMU" filename="libgazebo_yarp_imu.so">
        <yarpConfigurationFile>model://ergoCub/conf/gazebo_ergocub_l_leg_ft_sensor_inertial.ini</yarpConfigurationFile>
      </plugin>
    </sensor>
  </gazebo>
  <sensor name="l_leg_ft_imu" type="accelerometer">
    <parent link="l_hip_3"/>
    <origin rpy="3.14159 -2.02132e-15 2.61799 " xyz="5.20417e-18 0 0"/>
  </sensor>
  <gazebo reference="r_hip_3">
    <sensor name="r_leg_ft_imu" type="imu">
      <always_on>1</always_on>
      <update_rate>100.000000</update_rate>
      <pose>1.21431e-17 2.77556e-17 5.55112e-17 3.14159 2.98881e-16 -2.61799 </pose>
      <plugin name="ergocub_yarp_gazebo_plugin_IMU" filename="libgazebo_yarp_imu.so">
        <yarpConfigurationFile>model://ergoCub/conf/gazebo_ergocub_r_leg_ft_sensor_inertial.ini</yarpConfigurationFile>
      </plugin>
    </sensor>
  </gazebo>
  <sensor name="r_leg_ft_imu" type="accelerometer">
    <parent link="r_hip_3"/>
    <origin rpy="3.14159 2.98881e-16 -2.61799 " xyz="1.21431e-17 2.77556e-17 5.55112e-17"/>
  </sensor>
</robot>
